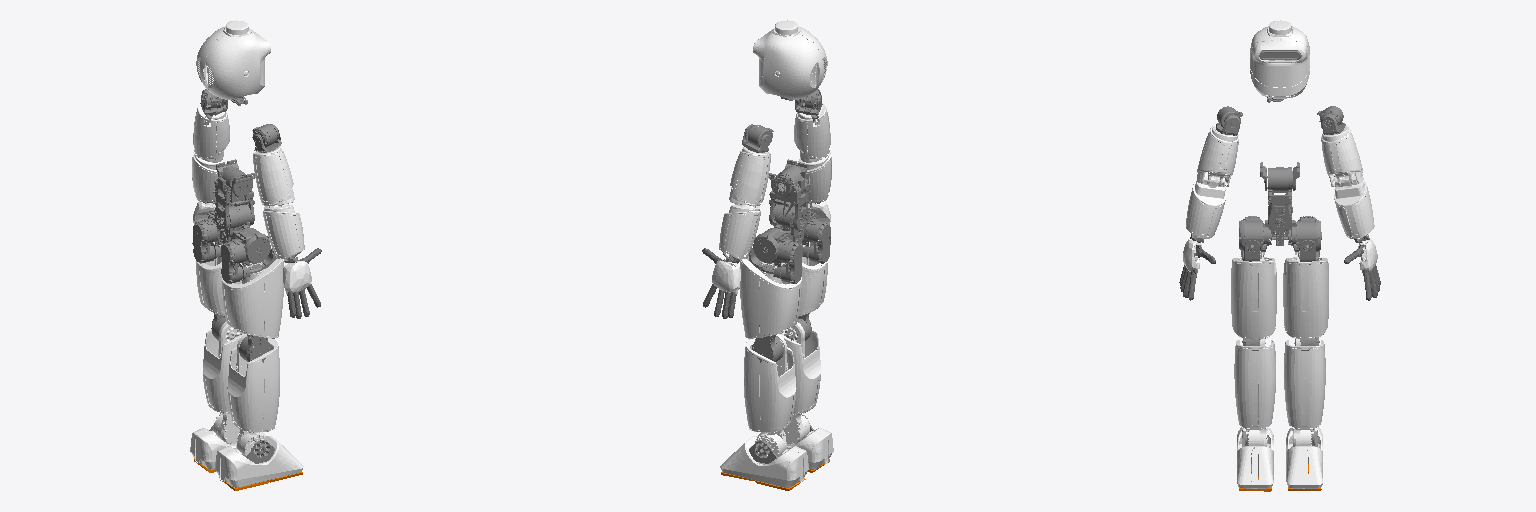
--- Facts derived from the render (not from the file) ---
Views: 3 orthographic renders of the robot side by side, from view 1: azimuth 30°, elevation 25°; view 2: azimuth 150°, elevation 25°; view 3: azimuth 270°, elevation 25°.
Model ergoCub with 204 links and 203 joints (57 revolute, 146 fixed), rooted at root_link, posed every joint at zero.
Links seen in each view (by area): view 1: head, r_lower_leg, r_hip_3, l_lower_leg, r_ankle_2, r_upper_arm, r_forearm, l_upper_arm, r_hip_2, l_hip_3, l_ankle_2, l_hip_2 (+7 smaller); view 2: head, l_lower_leg, l_hip_3, r_lower_leg, l_ankle_2, l_upper_arm, l_forearm, r_upper_arm, r_hip_3, l_hip_2, torso_1, r_ankle_2 (+7 smaller); view 3: l_lower_leg, r_lower_leg, head, r_hip_3, l_hip_3, l_forearm, r_forearm, l_ankle_2, r_ankle_2, r_upper_arm, l_upper_arm, torso_1 (+4 smaller).
Boxes of the visible links, bbox=[...] form: head: bbox=[196, 20, 270, 99]; r_lower_leg: bbox=[227, 334, 279, 456]; r_hip_3: bbox=[222, 248, 283, 338]; l_lower_leg: bbox=[203, 322, 244, 444]; r_ankle_2: bbox=[215, 436, 303, 487]; r_upper_arm: bbox=[253, 146, 294, 205]; r_forearm: bbox=[263, 203, 304, 258]; l_upper_arm: bbox=[193, 104, 229, 162]; r_hip_2: bbox=[221, 236, 274, 283]; l_hip_3: bbox=[196, 242, 232, 315]; l_ankle_2: bbox=[190, 428, 265, 469]; l_hip_2: bbox=[193, 218, 244, 263]; head: bbox=[753, 20, 827, 99]; l_lower_leg: bbox=[744, 334, 796, 456]; l_hip_3: bbox=[740, 255, 801, 338]; r_lower_leg: bbox=[779, 322, 820, 444]; l_ankle_2: bbox=[720, 436, 808, 487]; l_upper_arm: bbox=[729, 147, 770, 205]; l_forearm: bbox=[719, 204, 760, 258]; r_upper_arm: bbox=[794, 103, 830, 162]; r_hip_3: bbox=[790, 242, 827, 315]; l_hip_2: bbox=[749, 237, 802, 283]; torso_1: bbox=[769, 174, 812, 231]; r_ankle_2: bbox=[758, 428, 833, 469]; l_lower_leg: bbox=[1284, 339, 1325, 446]; r_lower_leg: bbox=[1234, 339, 1275, 446]; head: bbox=[1250, 20, 1309, 98]; r_hip_3: bbox=[1231, 251, 1276, 339]; l_hip_3: bbox=[1283, 251, 1328, 339]; l_forearm: bbox=[1334, 172, 1374, 238]; r_forearm: bbox=[1186, 172, 1225, 238]; l_ankle_2: bbox=[1286, 427, 1322, 488]; r_ankle_2: bbox=[1237, 427, 1273, 488]; r_upper_arm: bbox=[1197, 125, 1238, 186]; l_upper_arm: bbox=[1321, 126, 1363, 186]; torso_1: bbox=[1267, 167, 1292, 233].
Size in the robot's own frame: 0.2984 by 0.6045 by 1.47 metres.
65 mesh visuals loaded from 66 distinct referenced files (65 OBJ); not drawn: 1 (reference not matched to a file when rendering).

The robot description file, URDF, robot "ergoCub":
<?xml version="1.0"?>
<robot name="ergoCub">
  <link name="root_link">
    <inertial>
      <mass value="2.823751482824641"/>
      <origin xyz="0.0024748962432214403 -1.050794470993344e-4 0.023450368787955644" rpy="0 -0 0"/>
      <inertia ixx="0.005630606285299466" ixy="1.4369039688385168e-6" ixz="2.329934099458601e-5" iyy="0.004380033669258687" iyz="1.4098441290533537e-5" izz="0.003616681010808376"/>
    </inertial>
    <visual>
      <origin xyz="0 0 0" rpy="0 -0 0"/>
      <geometry>
        <mesh filename="package://meshes/simmechanics/sim_ecub_1-1_root_link.obj" scale="0.001 0.001 0.001"/>
      </geometry>
      <material name="">
        <color rgba="0.6 0.6 0.6 1"/>
      </material>
    </visual>
    <collision>
      <origin xyz="0 0 0" rpy="0 -0 0"/>
      <geometry>
        <mesh filename="package://meshes/simmechanics/sim_ecub_1-1_root_link.obj" scale="0.001 0.001 0.001"/>
      </geometry>
      <material name="">
        <color rgba="0.6 0.6 0.6 1"/>
      </material>
    </collision>
  </link>
  <joint name="l_hip_pitch" type="revolute">
    <origin xyz="0.02109999999999964 0.050500000000000836 1.942890293094024e-16" rpy="3.958535957527503e-15 3.810968172190701e-15 1.167434911886406e-16"/>
    <axis xyz="-5.772831379991284e-17 -1 -1.3843833381666392e-17"/>
    <parent link="root_link"/>
    <child link="l_hip_1"/>
    <limit lower="-0.7504915783575618" upper="1.7976891295541595" effort="1e+9" velocity="1e+9"/>
    <dynamics damping="2" friction="0"/>
  </joint>
  <link name="l_hip_1">
    <inertial>
      <mass value="2.231768868859629"/>
      <origin xyz="-0.0040154224851623455 0.028247280560774652 -6.811143992383195e-4" rpy="0 -0 0"/>
      <inertia ixx="0.002210921814931002" ixy="5.971255499379551e-5" ixz="-1.5432160879022988e-5" iyy="0.002695326128467937" iyz="-5.838535051658118e-6" izz="0.0024610381641843883"/>
    </inertial>
    <visual>
      <origin xyz="0 0 0" rpy="0 -0 0"/>
      <geometry>
        <mesh filename="package://meshes/simmechanics/sim_ecub_1-1_l_hip_1.obj" scale="0.001 0.001 0.001"/>
      </geometry>
      <material name="">
        <color rgba="0.6 0.6 0.6 1"/>
      </material>
    </visual>
    <collision>
      <origin xyz="0 0 0" rpy="0 -0 0"/>
      <geometry>
        <mesh filename="package://meshes/simmechanics/sim_ecub_1-1_l_hip_1.obj" scale="0.001 0.001 0.001"/>
      </geometry>
      <material name="">
        <color rgba="0.6 0.6 0.6 1"/>
      </material>
    </collision>
  </link>
  <joint name="r_hip_pitch" type="revolute">
    <origin xyz="0.021099999999999643 -0.05049999999999917 -2.220446049250313e-16" rpy="3.986223624290839e-15 9.012328668422501e-14 4.978996250550603e-17"/>
    <axis xyz="-1.0880513989386065e-16 -1 1.384383338166008e-17"/>
    <parent link="root_link"/>
    <child link="r_hip_1"/>
    <limit lower="-0.7504915783575618" upper="1.7976891295541595" effort="1e+9" velocity="1e+9"/>
    <dynamics damping="2" friction="0"/>
  </joint>
  <link name="r_hip_1">
    <inertial>
      <mass value="2.2320852637398954"/>
      <origin xyz="-0.004032117730258793 -0.028249385885545365 -6.739019720393702e-4" rpy="0 -0 0"/>
      <inertia ixx="0.00221225947743564" ixy="-6.126720536020865e-5" ixz="-1.5035655169601288e-5" iyy="0.002695545891317729" iyz="6.443355522460266e-6" izz="0.0024608876750051726"/>
    </inertial>
    <visual>
      <origin xyz="0 0 0" rpy="0 -0 0"/>
      <geometry>
        <mesh filename="package://meshes/simmechanics/sim_ecub_1-1_r_hip_1.obj" scale="0.001 0.001 0.001"/>
      </geometry>
      <material name="">
        <color rgba="0.6 0.6 0.6 1"/>
      </material>
    </visual>
    <collision>
      <origin xyz="0 0 0" rpy="0 -0 0"/>
      <geometry>
        <mesh filename="package://meshes/simmechanics/sim_ecub_1-1_r_hip_1.obj" scale="0.001 0.001 0.001"/>
      </geometry>
      <material name="">
        <color rgba="0.6 0.6 0.6 1"/>
      </material>
    </collision>
  </link>
  <joint name="torso_roll" type="revolute">
    <origin xyz="-2.23890229767886e-18 -5.551115123142428e-20 0.060500000000000095" rpy="0 -2.2470258116354473e-44 5.656623812198896e-30"/>
    <axis xyz="-1 0 1.4239886692466155e-15"/>
    <parent link="root_link"/>
    <child link="torso_1"/>
    <limit lower="-0.4014257279586958" upper="0.4014257279586958" effort="1e+9" velocity="1e+9"/>
    <dynamics damping="2" friction="0"/>
  </joint>
  <link name="torso_1">
    <inertial>
      <mass value="2.0645667"/>
      <origin xyz="-0.00963997362197503 6.168494736287859e-4 0.08244231288506354" rpy="0 -0 0"/>
      <inertia ixx="0.005816920576319003" ixy="-6.9752032776433695e-6" ixz="-7.227736063238389e-4" iyy="0.007094744408479672" iyz="-1.2586871224008617e-5" izz="0.002953654264837283"/>
    </inertial>
    <visual>
      <origin xyz="0 0 0" rpy="0 -0 0"/>
      <geometry>
        <mesh filename="package://meshes/simmechanics/sim_ecub_1-1_torso_1.obj" scale="0.001 0.001 0.001"/>
      </geometry>
      <material name="">
        <color rgba="0.6 0.6 0.6 1"/>
      </material>
    </visual>
    <collision>
      <origin xyz="0 0 0" rpy="0 -0 0"/>
      <geometry>
        <mesh filename="package://meshes/simmechanics/sim_ecub_1-1_torso_1.obj" scale="0.001 0.001 0.001"/>
      </geometry>
      <material name="">
        <color rgba="0.6 0.6 0.6 1"/>
      </material>
    </collision>
  </link>
  <joint name="torso_pitch" type="revolute">
    <origin xyz="-7.30886630439206e-17 -4.930380657631324e-32 0.11800000000000001" rpy="3.9719461100401744e-15 2.710505431213761e-20 1.0587911275090697e-22"/>
    <axis xyz="1.058791184074231e-22 1 4.336808689942018e-19"/>
    <parent link="torso_1"/>
    <child link="torso_2"/>
    <limit lower="-0.3141592653589793" upper="0.7853981633974483" effort="1e+9" velocity="1e+9"/>
    <dynamics damping="2" friction="0"/>
  </joint>
  <link name="torso_2">
    <inertial>
      <mass value="0.7051627057068411"/>
      <origin xyz="0.0015724674776760373 0.0036223466761378907 0.026019504666210766" rpy="0 -0 0"/>
      <inertia ixx="0.0012590296877101025" ixy="4.1986239270733835e-6" ixz="-5.398163583772818e-6" iyy="6.675525890436374e-4" iyz="7.014302140884287e-5" izz="0.001145822810927014"/>
    </inertial>
    <visual>
      <origin xyz="0 0 0" rpy="0 -0 0"/>
      <geometry>
        <mesh filename="package://meshes/simmechanics/sim_ecub_1-1_torso_2.obj" scale="0.001 0.001 0.001"/>
      </geometry>
      <material name="">
        <color rgba="0.6 0.6 0.6 1"/>
      </material>
    </visual>
    <collision>
      <origin xyz="0 0 0" rpy="0 -0 0"/>
      <geometry>
        <mesh filename="package://meshes/simmechanics/sim_ecub_1-1_torso_2.obj" scale="0.001 0.001 0.001"/>
      </geometry>
      <material name="">
        <color rgba="0.6 0.6 0.6 1"/>
      </material>
    </collision>
  </link>
  <joint name="torso_yaw" type="revolute">
    <origin xyz="7.441613918977653e-12 2.6928553289098135e-16 0.06446999999999994" rpy="-5.0024312019752794e-15 1.1542823239978046e-10 -3.182148030458047e-22"/>
    <axis xyz="1.1543031726420953e-10 -1.083564369658416e-15 -1"/>
    <parent link="torso_2"/>
    <child link="chest"/>
    <limit lower="-0.7504915783575618" upper="0.7504915783575618" effort="1e+9" velocity="1e+9"/>
    <dynamics damping="2" friction="0"/>
  </joint>
  <link name="chest">
    <inertial>
      <mass value="8.7013693071296"/>
      <origin xyz="-0.03443742716446768 -3.9294689908270166e-4 0.08872320596126153" rpy="0 -0 0"/>
      <inertia ixx="0.047186222299281697" ixy="6.214939406626824e-5" ixz="-0.0015310723400944366" iyy="0.05975275087156849" iyz="-1.701880177609289e-4" izz="0.04226647012430816"/>
    </inertial>
    <visual>
      <origin xyz="0 0 0" rpy="0 -0 0"/>
      <geometry>
        <mesh filename="package://meshes/simmechanics/sim_ecub_1-3_chest.obj" scale="0.001 0.001 0.001"/>
      </geometry>
      <material name="">
        <color rgba="1 1 1 1"/>
      </material>
    </visual>
    <collision>
      <origin xyz="0 0 0" rpy="0 -0 0"/>
      <geometry>
        <mesh filename="package://meshes/simmechanics/sim_ecub_1-3_chest.obj" scale="0.001 0.001 0.001"/>
      </geometry>
      <material name="">
        <color rgba="1 1 1 1"/>
      </material>
    </collision>
  </link>
  <joint name="neck_pitch" type="revolute">
    <origin xyz="0.004899999966321172 2.016626664826681e-16 0.2273000000005654" rpy="1.2351224860400058e-15 -1.154319564878164e-10 7.461699457715907e-16"/>
    <axis xyz="-2.4626495883381276e-15 -1 3.2706219863955566e-16"/>
    <parent link="chest"/>
    <child link="neck_2"/>
    <limit lower="-0.5235987755982988" upper="0.3839724354387525" effort="1e+9" velocity="1e+9"/>
    <dynamics damping="2" friction="0"/>
  </joint>
  <link name="neck_2">
    <inertial>
      <mass value="0.12100314943032965"/>
      <origin xyz="-0.006305773955890982 3.0141314376407138e-5 0.006373188453183354" rpy="0 -0 0"/>
      <inertia ixx="4.5383766592166864e-5" ixy="-9.375752008423039e-8" ixz="8.622664755132213e-6" iyy="3.848306673536227e-5" iyz="4.870043501244136e-8" izz="3.7535538604448367e-5"/>
    </inertial>
    <visual>
      <origin xyz="0 0 0" rpy="0 -0 0"/>
      <geometry>
        <mesh filename="package://meshes/simmechanics/sim_ecub_1-1_head_neck_2.obj" scale="0.001 0.001 0.001"/>
      </geometry>
      <material name="">
        <color rgba="0.6 0.6 0.6 1"/>
      </material>
    </visual>
    <collision>
      <origin xyz="0 0 0" rpy="0 -0 0"/>
      <geometry>
        <mesh filename="package://meshes/simmechanics/sim_ecub_1-1_head_neck_2.obj" scale="0.001 0.001 0.001"/>
      </geometry>
      <material name="">
        <color rgba="0.6 0.6 0.6 1"/>
      </material>
    </collision>
  </link>
  <joint name="l_shoulder_pitch" type="revolute">
    <origin xyz="-0.013518676864309373 0.06704761117227485 0.12351981080785726" rpy="0.2536123239046727 -0.0520316056155768 -0.2752787324155064"/>
    <axis xyz="2.629396873843337e-11 1.0000000000000002 -3.132558101803795e-11"/>
    <parent link="chest"/>
    <child link="l_shoulder_1"/>
    <limit lower="-2.9670597283903604" upper="0.6108652381980153" effort="1e+9" velocity="1e+9"/>
    <dynamics damping="2" friction="0"/>
  </joint>
  <link name="l_shoulder_1">
    <inertial>
      <mass value="0.7913756606310043"/>
      <origin xyz="1.4824275422014796e-4 0.06782971819041986 5.036196460999898e-4" rpy="0 -0 0"/>
      <inertia ixx="0.0012090260632276477" ixy="3.837452877706498e-6" ixz="3.4979966648173376e-7" iyy="3.2970130687487713e-4" iyz="1.0257960656819495e-5" izz="0.0011953232413247816"/>
    </inertial>
    <visual>
      <origin xyz="0 0 0" rpy="0 -0 0"/>
      <geometry>
        <mesh filename="package://meshes/simmechanics/sim_ecub_1-1_l_shoulder_1.obj" scale="0.001 0.001 0.001"/>
      </geometry>
      <material name="">
        <color rgba="0.6 0.6 0.6 1"/>
      </material>
    </visual>
    <collision>
      <origin xyz="0 0 0" rpy="0 -0 0"/>
      <geometry>
        <mesh filename="package://meshes/simmechanics/sim_ecub_1-1_l_shoulder_1.obj" scale="0.001 0.001 0.001"/>
      </geometry>
      <material name="">
        <color rgba="0.6 0.6 0.6 1"/>
      </material>
    </collision>
  </link>
  <joint name="r_shoulder_pitch" type="revolute">
    <origin xyz="-0.013518676864309565 -0.06704761117227466 0.12351981080785729" rpy="-0.2536123239046778 -0.05203160561557753 0.2752787324155041"/>
    <axis xyz="-2.6293323421300308e-11 1.0000000000000002 3.133054926607315e-11"/>
    <parent link="chest"/>
    <child link="r_shoulder_1"/>
    <limit lower="-2.9670597283903604" upper="0.6108652381980153" effort="1e+9" velocity="1e+9"/>
    <dynamics damping="2" friction="0"/>
  </joint>
  <link name="r_shoulder_1">
    <inertial>
      <mass value="0.7922822880502421"/>
      <origin xyz="1.7243569867328445e-4 -0.06784040318161474 4.7600094527533443e-4" rpy="0 -0 0"/>
      <inertia ixx="0.0012096539626434014" ixy="-3.680808987116546e-6" ixz="8.229428308001538e-7" iyy="3.3067105254799123e-4" iyz="-1.0172274013350282e-5" izz="0.0011958286331174221"/>
    </inertial>
    <visual>
      <origin xyz="0 0 0" rpy="0 -0 0"/>
      <geometry>
        <mesh filename="package://meshes/simmechanics/sim_ecub_1-1_r_shoulder_1.obj" scale="0.001 0.001 0.001"/>
      </geometry>
      <material name="">
        <color rgba="0.6 0.6 0.6 1"/>
      </material>
    </visual>
    <collision>
      <origin xyz="0 0 0" rpy="0 -0 0"/>
      <geometry>
        <mesh filename="package://meshes/simmechanics/sim_ecub_1-1_r_shoulder_1.obj" scale="0.001 0.001 0.001"/>
      </geometry>
      <material name="">
        <color rgba="0.6 0.6 0.6 1"/>
      </material>
    </collision>
  </link>
  <joint name="r_shoulder_roll" type="revolute">
    <origin xyz="0.007499999999999977 -0.09330000000000004 -3.885780586188048e-16" rpy="-9.325873406851307e-15 9.520162436160717e-15 -4.718447854656912e-15"/>
    <axis xyz="-1.0000000000000007 8.760353553682006e-16 -4.510281037539194e-16"/>
    <parent link="r_shoulder_1"/>
    <child link="r_shoulder_2"/>
    <limit lower="-0.2617993877991494" upper="2.6179938779914944" effort="1e+9" velocity="1e+9"/>
    <dynamics damping="2" friction="0"/>
  </joint>
  <link name="r_shoulder_2">
    <inertial>
      <mass value="0.4392272062642899"/>
      <origin xyz="0.005113618901434032 -2.13348557806331e-4 -0.020425805469504787" rpy="0 -0 0"/>
      <inertia ixx="2.9042245268154257e-4" ixy="-9.557527654531481e-7" ixz="-9.749291990105912e-5" iyy="4.271705089556584e-4" iyz="-1.2227717602335833e-6" izz="2.6647274612786855e-4"/>
    </inertial>
    <visual>
      <origin xyz="0 0 0" rpy="0 -0 0"/>
      <geometry>
        <mesh filename="package://meshes/simmechanics/sim_ecub_1-1_r_shoulder_2.obj" scale="0.001 0.001 0.001"/>
      </geometry>
      <material name="">
        <color rgba="0.6 0.6 0.6 1"/>
      </material>
    </visual>
    <collision>
      <origin xyz="0 0 0" rpy="0 -0 0"/>
      <geometry>
        <mesh filename="package://meshes/simmechanics/sim_ecub_1-1_r_shoulder_2.obj" scale="0.001 0.001 0.001"/>
      </geometry>
      <material name="">
        <color rgba="0.6 0.6 0.6 1"/>
      </material>
    </collision>
  </link>
  <joint name="r_arm_ft_sensor" type="fixed">
    <origin xyz="-0.006850000000000004 -5.551115123125783e-17 -0.054300000000000015" rpy="-2.220446049250312e-16 -2.3592239273284576e-16 1.6098233857064762e-15"/>
    <parent link="r_shoulder_2"/>
    <child link="r_shoulder_3"/>
  </joint>
  <link name="r_shoulder_3">
    <inertial>
      <mass value="0.271466272759966"/>
      <origin xyz="-8.31167799586717e-5 -3.0654831449927755e-5 -0.007966545320293866" rpy="0 -0 0"/>
      <inertia ixx="7.620284216410257e-5" ixy="-3.654997747197785e-7" ixz="-3.6240077897294374e-8" iyy="7.648716704064904e-5" iyz="-6.051355657868799e-8" izz="1.2740184766279634e-4"/>
    </inertial>
    <visual>
      <origin xyz="0 0 0" rpy="0 -0 0"/>
      <geometry>
        <mesh filename="package://meshes/simmechanics/sim_ecub_1-1_r_shoulder_3.obj" scale="0.001 0.001 0.001"/>
      </geometry>
      <material name="">
        <color rgba="0.6 0.6 0.6 1"/>
      </material>
    </visual>
    <collision>
      <origin xyz="0 0 0" rpy="0 -0 0"/>
      <geometry>
        <mesh filename="package://meshes/simmechanics/sim_ecub_1-1_r_shoulder_3.obj" scale="0.001 0.001 0.001"/>
      </geometry>
      <material name="">
        <color rgba="0.6 0.6 0.6 1"/>
      </material>
    </collision>
  </link>
  <joint name="r_shoulder_yaw" type="revolute">
    <origin xyz="-7.979727989493313e-17 5.551115123125783e-17 -0.02249999999999998" rpy="-5.55111512312578e-17 -3.0531133177191805e-16 7.660538869913577e-15"/>
    <axis xyz="2.567390744445681e-16 2.775557561562927e-17 1.0000000000000004"/>
    <parent link="r_shoulder_3"/>
    <child link="r_upper_arm"/>
    <limit lower="-0.8726646259971648" upper="1.3962634015954636" effort="1e+9" velocity="1e+9"/>
    <dynamics damping="2" friction="0"/>
  </joint>
  <link name="r_upper_arm">
    <inertial>
      <mass value="1.7722348545631907"/>
      <origin xyz="1.4699786491786937e-4 -0.0023354938418406186 -0.05011711267210951" rpy="0 -0 0"/>
      <inertia ixx="0.0034219198528275844" ixy="3.081029189714289e-5" ixz="2.5743017599563002e-5" iyy="0.003510878854314856" iyz="-1.0938393403810045e-4" izz="0.0015765483711818404"/>
    </inertial>
    <visual>
      <origin xyz="0 0 0" rpy="0 -0 0"/>
      <geometry>
        <mesh filename="package://meshes/simmechanics/sim_ecub_1-1_r_upperarm.obj" scale="0.001 0.001 0.001"/>
      </geometry>
      <material name="">
        <color rgba="1 1 1 1"/>
      </material>
    </visual>
    <collision>
      <origin xyz="0 0 0" rpy="0 -0 0"/>
      <geometry>
        <mesh filename="package://meshes/simmechanics/sim_ecub_1-1_r_upperarm.obj" scale="0.001 0.001 0.001"/>
      </geometry>
      <material name="">
        <color rgba="1 1 1 1"/>
      </material>
    </collision>
  </link>
  <joint name="r_elbow" type="revolute">
    <origin xyz="0.01000000000000002 0.0015000000000005287 -0.12369999999999992" rpy="-4.1633363423443286e-16 -5.842548667089886e-15 -8.326672684688652e-15"/>
    <axis xyz="3.001071613439684e-16 -1.0000000000000027 1.2712053631958044e-14"/>
    <parent link="r_upper_arm"/>
    <child link="r_forearm"/>
    <limit lower="-0.05235987755982989" upper="1.3089969389957472" effort="1e+9" velocity="1e+9"/>
    <dynamics damping="2" friction="0"/>
  </joint>
  <link name="r_forearm">
    <inertial>
      <mass value="1.4760712424977045"/>
      <origin xyz="-0.01830687629472739 -0.002214887320910963 -0.08814943647449926" rpy="0 -0 0"/>
      <inertia ixx="0.004018141035792247" ixy="-1.0169837170335636e-6" ixz="-6.092751707960711e-5" iyy="0.004094401103638503" iyz="2.3622606931134418e-5" izz="0.00151761593950533"/>
    </inertial>
    <visual>
      <origin xyz="0 0 0" rpy="0 -0 0"/>
      <geometry>
        <mesh filename="package://meshes/simmechanics/sim_ecub_1-1_r_forearm.obj" scale="0.001 0.001 0.001"/>
      </geometry>
      <material name="">
        <color rgba="1 1 1 1"/>
      </material>
    </visual>
    <collision>
      <origin xyz="0 0 0" rpy="0 -0 0"/>
      <geometry>
        <mesh filename="package://meshes/simmechanics/sim_ecub_1-1_r_forearm.obj" scale="0.001 0.001 0.001"/>
      </geometry>
      <material name="">
        <color rgba="1 1 1 1"/>
      </material>
    </collision>
  </link>
  <joint name="r_wrist_yaw" type="revolute">
    <origin xyz="-0.014999999999999767 -0.0019999999999965323 -0.1943500000000011" rpy="-2.081668171172164e-15 -1.1587952819525071e-14 -2.997602166487915e-15"/>
    <axis xyz="5.5788706987414416e-15 -1.2628786905111175e-14 1.000000000000002"/>
    <parent link="r_forearm"/>
    <child link="r_wrist_1"/>
    <limit lower="-1.6057029118347832" upper="1.6057029118347832" effort="1e+9" velocity="1e+9"/>
    <dynamics damping="2" friction="0"/>
  </joint>
  <link name="r_wrist_1">
    <inertial>
      <mass value="0.12269276206782376"/>
      <origin xyz="-1.4544607175177166e-4 1.559247070407055e-4 0.022377800821402394" rpy="0 -0 0"/>
      <inertia ixx="4.9948289621641885e-5" ixy="-2.784766720355678e-7" ixz="6.019515820494411e-7" iyy="4.9363344899850536e-5" iyz="-7.101822163237812e-7" izz="5.04085543186966e-5"/>
    </inertial>
    <visual>
      <origin xyz="0 0 0" rpy="0 -0 0"/>
      <geometry>
        <mesh filename="package://meshes/simmechanics/sim_ecub_1-1_r_wrist_1.obj" scale="0.001 0.001 0.001"/>
      </geometry>
      <material name="">
        <color rgba="0.6 0.6 0.6 1"/>
      </material>
    </visual>
    <collision>
      <origin xyz="0 0 0" rpy="0 -0 0"/>
      <geometry>
        <mesh filename="package://meshes/simmechanics/sim_ecub_1-1_r_wrist_1.obj" scale="0.001 0.001 0.001"/>
      </geometry>
      <material name="">
        <color rgba="0.6 0.6 0.6 1"/>
      </material>
    </collision>
  </link>
  <joint name="r_wrist_roll" type="revolute">
    <origin xyz="1.4224732503009818e-16 2.498001805406602e-16 1.3877787807814457e-16" rpy="3.8857805861880484e-16 5.551115123125783e-17 -1.6653345369377353e-16"/>
    <axis xyz="0.9999999999999997 -2.480654570646835e-16 -1.873501354054953e-16"/>
    <parent link="r_wrist_1"/>
    <child link="r_wrist_2"/>
    <limit lower="-1.0821041362364843" upper="0.9075712110370514" effort="1e+9" velocity="1e+9"/>
    <dynamics damping="2" friction="0"/>
  </joint>
  <link name="r_wrist_2">
    <inertial>
      <mass value="0.021188357245777188"/>
      <origin xyz="5.05499045400093e-11 7.897372606293362e-4 -0.004696960055006527" rpy="0 -0 0"/>
      <inertia ixx="1.5886797233767314e-6" ixy="3.7411538116720276e-13" ixz="-1.6476959268145782e-14" iyy="1.6075566141746972e-6" iyz="7.534291394795915e-8" izz="2.5064167139343093e-6"/>
    </inertial>
    <visual>
      <origin xyz="0 0 0" rpy="0 -0 0"/>
      <geometry>
        <mesh filename="package://meshes/simmechanics/sim_ecub_1-1_r_wrist_2.obj" scale="0.001 0.001 0.001"/>
      </geometry>
      <material name="">
        <color rgba="0.5 0.5 0.5 1"/>
      </material>
    </visual>
    <collision>
      <origin xyz="0 0 0" rpy="0 -0 0"/>
      <geometry>
        <mesh filename="package://meshes/simmechanics/sim_ecub_1-1_r_wrist_2.obj" scale="0.001 0.001 0.001"/>
      </geometry>
      <material name="">
        <color rgba="0.5 0.5 0.5 1"/>
      </material>
    </collision>
  </link>
  <joint name="r_wrist_pitch" type="revolute">
    <origin xyz="-4.85722573273506e-17 0 2.7755575615628914e-17" rpy="2.2204460492503136e-16 -5.551115123125783e-17 -3.88578058618805e-16"/>
    <axis xyz="4.128641872824801e-16 -0.9999999999999998 -8.049116928532385e-16"/>
    <parent link="r_wrist_2"/>
    <child link="r_hand_palm"/>
    <limit lower="-0.5585053606381855" upper="0.5585053606381855" effort="1e+9" velocity="1e+9"/>
    <dynamics damping="2" friction="0"/>
  </joint>
  <link name="r_hand_palm">
    <inertial>
      <mass value="0.2020068404688116"/>
      <origin xyz="-0.003982157972782507 -0.0021135289059891482 -0.05842371394186491" rpy="0 -0 0"/>
      <inertia ixx="1.4279727238409082e-4" ixy="4.3471459905317745e-6" ixz="-1.2099467097336674e-5" iyy="2.1040345151106222e-4" iyz="4.7767131643957866e-6" izz="1.0688011837800253e-4"/>
    </inertial>
    <visual>
      <origin xyz="0 0 0" rpy="0 -0 0"/>
      <geometry>
        <mesh filename="package://meshes/simmechanics/sim_ecub_1-1_r_hand_palm.obj" scale="0.001 0.001 0.001"/>
      </geometry>
      <material name="">
        <color rgba="1 1 1 1"/>
      </material>
    </visual>
    <collision>
      <origin xyz="0 0 0" rpy="0 -0 0"/>
      <geometry>
        <mesh filename="package://meshes/simmechanics/sim_ecub_1-1_r_hand_palm.obj" scale="0.001 0.001 0.001"/>
      </geometry>
      <material name="">
        <color rgba="1 1 1 1"/>
      </material>
    </collision>
  </link>
  <joint name="r_index_add" type="revolute">
    <origin xyz="0.022499999999999992 0.0015000000000002234 -0.06859999999999983" rpy="-1.6833790438334957e-15 0.29670597283904 3.141592653589792"/>
    <axis xyz="-5.389323627044831e-16 -0.9999999999999999 1.6046911875538946e-15"/>
    <parent link="r_hand_palm"/>
    <child link="r_hand_index_1"/>
    <limit lower="0" upper="0.2617993877991494" effort="1e+9" velocity="1e+9"/>
    <dynamics damping="2" friction="0"/>
  </joint>
  <link name="r_hand_index_1">
    <inertial>
      <mass value="0.019232477290189804"/>
      <origin xyz="-0.008420124408709713 0.003850331678233287 -0.01714942611279774" rpy="0 -0 0"/>
      <inertia ixx="2.6266478205033898e-6" ixy="1.0045828131985182e-7" ixz="-4.4428748588513116e-7" iyy="2.811973348231671e-6" iyz="-3.9646985411500977e-8" izz="1.21028376665746e-6"/>
    </inertial>
    <visual>
      <origin xyz="0 0 0" rpy="0 -0 0"/>
      <geometry>
        <mesh filename="package://meshes/simmechanics/sim_ecub_1-1_r_hand_index_1.obj" scale="0.001 0.001 0.001"/>
      </geometry>
      <material name="">
        <color rgba="0.5 0.5 0.5 1"/>
      </material>
    </visual>
    <collision>
      <origin xyz="0 0 0" rpy="0 -0 0"/>
      <geometry>
        <mesh filename="package://meshes/simmechanics/sim_ecub_1-1_r_hand_index_1.obj" scale="0.001 0.001 0.001"/>
      </geometry>
      <material name="">
        <color rgba="0.5 0.5 0.5 1"/>
      </material>
    </collision>
  </link>
  <joint name="r_middle_prox" type="revolute">
    <origin xyz="0.009599999988882939 0.00150000000000039 -0.1030000000010361" rpy="-1.8596235662471376e-15 -1.0793124727292991e-10 3.1415926535897927"/>
    <axis xyz="-0.9999999999999996 -4.562322741819007e-15 1.079337105802658e-10"/>
    <parent link="r_hand_palm"/>
    <child link="r_hand_middle_1"/>
    <limit lower="0" upper="1.5707963267948966" effort="1e+9" velocity="1e+9"/>
    <dynamics damping="2" friction="0"/>
  </joint>
  <link name="r_hand_middle_1">
    <inertial>
      <mass value="0.007486365997467528"/>
      <origin xyz="5.610258533731913e-5 0.0011131046827904112 -0.01742880983276912" rpy="0 -0 0"/>
      <inertia ixx="1.5923690026243956e-6" ixy="-7.6859949856616e-10" ixz="-9.576514629966624e-9" iyy="1.5225016121802755e-6" iyz="1.1152097367596593e-7" izz="3.177134212214704e-7"/>
    </inertial>
    <visual>
      <origin xyz="0 0 0" rpy="0 -0 0"/>
      <geometry>
        <mesh filename="package://meshes/simmechanics/sim_ecub_1-1_r_hand_middle_1.obj" scale="0.001 0.001 0.001"/>
      </geometry>
      <material name="">
        <color rgba="0.5 0.5 0.5 1"/>
      </material>
    </visual>
    <collision>
      <origin xyz="0 0 0" rpy="0 -0 0"/>
      <geometry>
        <mesh filename="package://meshes/simmechanics/sim_ecub_1-1_r_hand_middle_1.obj" scale="0.001 0.001 0.001"/>
      </geometry>
      <material name="">
        <color rgba="0.5 0.5 0.5 1"/>
      </material>
    </collision>
  </link>
  <joint name="r_pinkie_prox" type="revolute">
    <origin xyz="-0.035982680943166166 0.002377759579109573 -0.09206828131946371" rpy="4.1095343980510334e-4 -0.08726646259972864 3.1154127148098776"/>
    <axis xyz="-0.9999999999999998 4.364801434782878e-15 0"/>
    <parent link="r_hand_palm"/>
    <child link="r_hand_pinkie_1"/>
    <limit lower="0" upper="1.5707963267948966" effort="1e+9" velocity="1e+9"/>
    <dynamics damping="2" friction="0"/>
  </joint>
  <link name="r_hand_pinkie_1">
    <inertial>
      <mass value="0.006357585733638135"/>
      <origin xyz="3.616260147435227e-5 0.0012147050941129778 -0.015053109692718447" rpy="0 -0 0"/>
      <inertia ixx="1.1594224636752146e-6" ixy="1.9700677724003336e-10" ixz="-5.145341462812334e-9" iyy="1.1056270005627898e-6" iyz="9.04498861481507e-8" izz="2.7294425194037764e-7"/>
    </inertial>
    <visual>
      <origin xyz="0 0 0" rpy="0 -0 0"/>
      <geometry>
        <mesh filename="package://meshes/simmechanics/sim_ecub_1-1_r_hand_pinkie_1.obj" scale="0.001 0.001 0.001"/>
      </geometry>
      <material name="">
        <color rgba="0.5 0.5 0.5 1"/>
      </material>
    </visual>
    <collision>
      <origin xyz="0 0 0" rpy="0 -0 0"/>
      <geometry>
        <mesh filename="package://meshes/simmechanics/sim_ecub_1-1_r_hand_pinkie_1.obj" scale="0.001 0.001 0.001"/>
      </geometry>
      <material name="">
        <color rgba="0.5 0.5 0.5 1"/>
      </material>
    </collision>
  </link>
  <joint name="r_ring_prox" type="revolute">
    <origin xyz="-0.015417755568684424 0.001849813728471178 -0.09788067183717986" rpy="2.019965811910767e-14 -0.08726646270762471 3.11541271480963"/>
    <axis xyz="-0.9999999999999997 -2.498435601042699e-13 1.0789123761067998e-10"/>
    <parent link="r_hand_palm"/>
    <child link="r_hand_ring_1"/>
    <limit lower="0" upper="1.5707963267948966" effort="1e+9" velocity="1e+9"/>
    <dynamics damping="2" friction="0"/>
  </joint>
  <link name="r_hand_ring_1">
    <inertial>
      <mass value="0.007486365997467528"/>
      <origin xyz="5.6102585337293107e-5 0.0011131045999587252 -0.017428809839565573" rpy="0 -0 0"/>
      <inertia ixx="1.5923690066834338e-6" ixy="-7.685995334343241e-10" ixz="-9.576514632814455e-9" iyy="1.5225016134675864e-6" iyz="1.115209689762951e-7" izz="3.177134239925537e-7"/>
    </inertial>
    <visual>
      <origin xyz="0 0 0" rpy="0 -0 0"/>
      <geometry>
        <mesh filename="package://meshes/simmechanics/sim_ecub_1-1_r_hand_ring_1.obj" scale="0.001 0.001 0.001"/>
      </geometry>
      <material name="">
        <color rgba="0.5 0.5 0.5 1"/>
      </material>
    </visual>
    <collision>
      <origin xyz="0 0 0" rpy="0 -0 0"/>
      <geometry>
        <mesh filename="package://meshes/simmechanics/sim_ecub_1-1_r_hand_ring_1.obj" scale="0.001 0.001 0.001"/>
      </geometry>
      <material name="">
        <color rgba="0.5 0.5 0.5 1"/>
      </material>
    </collision>
  </link>
  <joint name="r_thumb_add" type="revolute">
    <origin xyz="0.023374863252664337 0.003000000000000058 -0.03452383847607743" rpy="1.566711369727914e-15 -0.226892802651332 -5.127419028200447e-16"/>
    <axis xyz="-1.0793213545134961e-10 2.4089270891491094e-15 0.9999999999999998"/>
    <parent link="r_hand_palm"/>
    <child link="r_hand_thumb_1"/>
    <limit lower="0" upper="1.7453292519943295" effort="1e+9" velocity="1e+9"/>
    <dynamics damping="2" friction="0"/>
  </joint>
  <link name="r_hand_thumb_1">
    <inertial>
      <mass value="0.02894174189037044"/>
      <origin xyz="0.0183756324403817 -4.55521018183358e-5 0.002126473485347669" rpy="0 -0 0"/>
      <inertia ixx="2.6227221096875315e-6" ixy="-2.6657118889494294e-7" ixz="3.408188388661989e-7" iyy="7.222316801810369e-6" iyz="1.3067300647554165e-7" izz="5.813428900568859e-6"/>
    </inertial>
    <visual>
      <origin xyz="0 0 0" rpy="0 -0 0"/>
      <geometry>
        <mesh filename="package://meshes/simmechanics/sim_ecub_1-1_r_hand_thumb_1.obj" scale="0.001 0.001 0.001"/>
      </geometry>
      <material name="">
        <color rgba="0.5 0.5 0.5 1"/>
      </material>
    </visual>
    <collision>
      <origin xyz="0 0 0" rpy="0 -0 0"/>
      <geometry>
        <mesh filename="package://meshes/simmechanics/sim_ecub_1-1_r_hand_thumb_1.obj" scale="0.001 0.001 0.001"/>
      </geometry>
      <material name="">
        <color rgba="0.5 0.5 0.5 1"/>
      </material>
    </collision>
  </link>
  <joint name="r_thumb_prox" type="revolute">
    <origin xyz="0.0380746544995605 0.003469109580325286 -0.0036017448035497446" rpy="-1.7697290685198344 -0.13749152761469902 -2.965379613992927"/>
    <axis xyz="9.992007221626409e-16 -1.1102230246251565e-15 -0.9999999999999997"/>
    <parent link="r_hand_thumb_1"/>
    <child link="r_hand_thumb_2"/>
    <limit lower="0" upper="1.5707963267948966" effort="1e+9" velocity="1e+9"/>
    <dynamics damping="2" friction="0"/>
  </joint>
  <link name="r_hand_thumb_2">
    <inertial>
      <mass value="0.00669603218404702"/>
      <origin xyz="-0.014887264468035837 -0.0011329726380328586 6.26600593671145e-5" rpy="0 -0 0"/>
      <inertia ixx="2.822738702941517e-7" ixy="-9.431423655785553e-8" ixz="-7.94903600654804e-9" iyy="1.1148767778556382e-6" iyz="7.629054803653638e-10" izz="1.1785117216493283e-6"/>
    </inertial>
    <visual>
      <origin xyz="0 0 0" rpy="0 -0 0"/>
      <geometry>
        <mesh filename="package://meshes/simmechanics/sim_ecub_1-1_r_hand_thumb_2.obj" scale="0.001 0.001 0.001"/>
      </geometry>
      <material name="">
        <color rgba="0.5 0.5 0.5 1"/>
      </material>
    </visual>
    <collision>
      <origin xyz="0 0 0" rpy="0 -0 0"/>
      <geometry>
        <mesh filename="package://meshes/simmechanics/sim_ecub_1-1_r_hand_thumb_2.obj" scale="0.001 0.001 0.001"/>
      </geometry>
      <material name="">
        <color rgba="0.5 0.5 0.5 1"/>
      </material>
    </collision>
  </link>
  <joint name="r_thumb_dist" type="revolute">
    <origin xyz="-0.035000000003687984 0.0014999999936707586 -1.0737244426906045e-12" rpy="-1.87424381570267e-11 1.845751329554446e-11 3.1415926535883125"/>
    <axis xyz="1.8458673825549887e-11 1.8743298579870785e-11 -0.9999999999999999"/>
    <parent link="r_hand_thumb_2"/>
    <child link="r_hand_thumb_3"/>
    <limit lower="0" upper="1.7697638615222502" effort="1e+9" velocity="1e+9"/>
    <dynamics damping="2" friction="0"/>
  </joint>
  <link name="r_hand_thumb_3">
    <inertial>
      <mass value="0.00683159462238797"/>
      <origin xyz="0.016086236544425966 0.0026526877650291103 4.703179416121195e-5" rpy="0 -0 0"/>
      <inertia ixx="2.881152136289015e-7" ixy="5.927787437409324e-8" ixz="7.046450596142318e-9" iyy="1.4727314074745805e-6" iyz="-1.1370823402676918e-10" izz="1.4681073090610674e-6"/>
    </inertial>
    <visual>
      <origin xyz="0 0 0" rpy="0 -0 0"/>
      <geometry>
        <mesh filename="package://meshes/simmechanics/sim_ecub_1-1_r_hand_thumb_3.obj" scale="0.001 0.001 0.001"/>
      </geometry>
      <material name="">
        <color rgba="0.5 0.5 0.5 1"/>
      </material>
    </visual>
    <collision>
      <origin xyz="0 0 0" rpy="0 -0 0"/>
      <geometry>
        <mesh filename="package://meshes/simmechanics/sim_ecub_1-1_r_hand_thumb_3.obj" scale="0.001 0.001 0.001"/>
      </geometry>
      <material name="">
        <color rgba="0.5 0.5 0.5 1"/>
      </material>
    </collision>
  </link>
  <joint name="r_ring_dist" type="revolute">
    <origin xyz="-1.498102770308707e-11 -0.0015000000002765024 -0.040000000000737446" rpy="-5.828670879282074e-16 1.0789557441936992e-10 2.461919557106285e-13"/>
    <axis xyz="-0.9999999999999999 2.4672971998818127e-13 -1.0789569585001324e-10"/>
    <parent link="r_hand_ring_1"/>
    <child link="r_hand_ring_2"/>
    <limit lower="0" upper="1.7994344588061537" effort="1e+9" velocity="1e+9"/>
    <dynamics damping="2" friction="0"/>
  </joint>
  <link name="r_hand_ring_2">
    <inertial>
      <mass value="0.007251413355667432"/>
      <origin xyz="4.43251343077225e-5 0.00275470906266162 -0.018890876418029168" rpy="0 -0 0"/>
      <inertia ixx="1.9331833105730582e-6" ixy="-7.989212176587309e-11" ixz="-7.904608363472145e-9" iyy="1.9365695874997407e-6" iyz="-7.314014027601115e-8" izz="3.168091312615482e-7"/>
    </inertial>
    <visual>
      <origin xyz="0 0 0" rpy="0 -0 0"/>
      <geometry>
        <mesh filename="package://meshes/simmechanics/sim_ecub_1-1_r_hand_ring_2.obj" scale="0.001 0.001 0.001"/>
      </geometry>
      <material name="">
        <color rgba="0.5 0.5 0.5 1"/>
      </material>
    </visual>
    <collision>
      <origin xyz="0 0 0" rpy="0 -0 0"/>
      <geometry>
        <mesh filename="package://meshes/simmechanics/sim_ecub_1-1_r_hand_ring_2.obj" scale="0.001 0.001 0.001"/>
      </geometry>
      <material name="">
        <color rgba="0.5 0.5 0.5 1"/>
      </material>
    </collision>
  </link>
  <joint name="r_pinkie_dist" type="revolute">
    <origin xyz="4.5102810375396984e-17 -0.001514193309379297 -0.03499938883211873" rpy="-0.0012956915198213642 -1.8735013540549517e-16 -2.775557561562892e-16"/>
    <axis xyz="-0.9999999999999999 9.036247971209683e-16 -2.4586692098222613e-15"/>
    <parent link="r_hand_pinkie_1"/>
    <child link="r_hand_pinkie_2"/>
    <limit lower="0" upper="1.7226399717184033" effort="1e+9" velocity="1e+9"/>
    <dynamics damping="2" friction="0"/>
  </joint>
  <link name="r_hand_pinkie_2">
    <inertial>
      <mass value="0.007240237490764073"/>
      <origin xyz="2.1391072559044655e-5 0.0027712863562942003 -0.018930305880602127" rpy="0 -0 0"/>
      <inertia ixx="1.925475606102824e-6" ixy="-4.3197295418411515e-10" ixz="-3.753180689187112e-9" iyy="1.929147380651044e-6" iyz="-7.607784499660943e-8" izz="3.1621036318191297e-7"/>
    </inertial>
    <visual>
      <origin xyz="0 0 0" rpy="0 -0 0"/>
      <geometry>
        <mesh filename="package://meshes/simmechanics/sim_ecub_1-1_r_hand_pinkie_2.obj" scale="0.001 0.001 0.001"/>
      </geometry>
      <material name="">
        <color rgba="0.5 0.5 0.5 1"/>
      </material>
    </visual>
    <collision>
      <origin xyz="0 0 0" rpy="0 -0 0"/>
      <geometry>
        <mesh filename="package://meshes/simmechanics/sim_ecub_1-1_r_hand_pinkie_2.obj" scale="0.001 0.001 0.001"/>
      </geometry>
      <material name="">
        <color rgba="0.5 0.5 0.5 1"/>
      </material>
    </collision>
  </link>
  <joint name="r_middle_dist" type="revolute">
    <origin xyz="-1.5434174771566944e-11 -0.0014999999999999736 -0.0399999999989637" rpy="-7.535550930470877e-8 1.0793281546295219e-10 0"/>
    <axis xyz="-0.9999999999999998 -2.0695253452753748e-15 -1.0792969296086812e-10"/>
    <parent link="r_hand_middle_1"/>
    <child link="r_hand_middle_2"/>
    <limit lower="0" upper="1.7994344588061537" effort="1e+9" velocity="1e+9"/>
    <dynamics damping="2" friction="0"/>
  </joint>
  <link name="r_hand_middle_2">
    <inertial>
      <mass value="0.007251413355667432"/>
      <origin xyz="4.432513430769475e-5 0.0027547091926723166 -0.018890876399070666" rpy="0 -0 0"/>
      <inertia ixx="1.933183310574237e-6" ixy="-7.989206743982703e-11" ixz="-7.904608363479557e-9" iyy="1.9365732602456635e-6" iyz="-7.313677768867388e-8" izz="3.168054585139121e-7"/>
    </inertial>
    <visual>
      <origin xyz="0 0 0" rpy="0 -0 0"/>
      <geometry>
        <mesh filename="package://meshes/simmechanics/sim_ecub_1-1_r_hand_middle_2.obj" scale="0.001 0.001 0.001"/>
      </geometry>
      <material name="">
        <color rgba="0.5 0.5 0.5 1"/>
      </material>
    </visual>
    <collision>
      <origin xyz="0 0 0" rpy="0 -0 0"/>
      <geometry>
        <mesh filename="package://meshes/simmechanics/sim_ecub_1-1_r_hand_middle_2.obj" scale="0.001 0.001 0.001"/>
      </geometry>
      <material name="">
        <color rgba="0.5 0.5 0.5 1"/>
      </material>
    </collision>
  </link>
  <joint name="r_index_prox" type="revolute">
    <origin xyz="-0.009192533317427393 5.551115123125783e-17 -0.030713451316238316" rpy="-3.0531133177191805e-16 -2.0816681711721685e-17 0"/>
    <axis xyz="-0.9999999999999993 3.434752482434078e-15 -1.672273430841644e-15"/>
    <parent link="r_hand_index_1"/>
    <child link="r_hand_index_2"/>
    <limit lower="0" upper="1.5707963267948966" effort="1e+9" velocity="1e+9"/>
    <dynamics damping="2" friction="0"/>
  </joint>
  <link name="r_hand_index_2">
    <inertial>
      <mass value="0.007486365997467528"/>
      <origin xyz="5.610258533736423e-5 0.0011131050125119946 -0.01742880980571504" rpy="0 -0 0"/>
      <inertia ixx="1.5923689864672536e-6" ixy="-7.685993601390065e-10" ixz="-9.576514618642257e-9" iyy="1.5225016070540494e-6" iyz="1.1152099238402203e-7" izz="3.1771341019039245e-7"/>
    </inertial>
    <visual>
      <origin xyz="0 0 0" rpy="0 -0 0"/>
      <geometry>
        <mesh filename="package://meshes/simmechanics/sim_ecub_1-1_r_hand_index_2.obj" scale="0.001 0.001 0.001"/>
      </geometry>
      <material name="">
        <color rgba="0.5 0.5 0.5 1"/>
      </material>
    </visual>
    <collision>
      <origin xyz="0 0 0" rpy="0 -0 0"/>
      <geometry>
        <mesh filename="package://meshes/simmechanics/sim_ecub_1-1_r_hand_index_2.obj" scale="0.001 0.001 0.001"/>
      </geometry>
      <material name="">
        <color rgba="0.5 0.5 0.5 1"/>
      </material>
    </collision>
  </link>
  <joint name="r_index_dist" type="revolute">
    <origin xyz="4.163336342344337e-17 -0.0014999999999998903 -0.040000000000000036" rpy="1.942890293094024e-16 3.469446951953614e-17 1.665334536937736e-16"/>
    <axis xyz="-0.9999999999999993 -2.0122792321330975e-16 -4.510281037539697e-16"/>
    <parent link="r_hand_index_2"/>
    <child link="r_hand_index_3"/>
    <limit lower="0" upper="1.7994344588061537" effort="1e+9" velocity="1e+9"/>
    <dynamics damping="2" friction="0"/>
  </joint>
  <link name="r_hand_index_3">
    <inertial>
      <mass value="0.007251413355667432"/>
      <origin xyz="4.432513430773638e-5 0.0027547026217409343 -0.01889087735725714" rpy="0 -0 0"/>
      <inertia ixx="1.9331833106031376e-6" ixy="-7.989481683614064e-11" ixz="-7.904608320181986e-9" iyy="1.9365664798884807e-6" iyz="-7.313734234921826e-8" izz="3.168122388413564e-7"/>
    </inertial>
    <visual>
      <origin xyz="0 0 0" rpy="0 -0 0"/>
      <geometry>
        <mesh filename="package://meshes/simmechanics/sim_ecub_1-1_r_hand_index_3.obj" scale="0.001 0.001 0.001"/>
      </geometry>
      <material name="">
        <color rgba="0.5 0.5 0.5 1"/>
      </material>
    </visual>
    <collision>
      <origin xyz="0 0 0" rpy="0 -0 0"/>
      <geometry>
        <mesh filename="package://meshes/simmechanics/sim_ecub_1-1_r_hand_index_3.obj" scale="0.001 0.001 0.001"/>
      </geometry>
      <material name="">
        <color rgba="0.5 0.5 0.5 1"/>
      </material>
    </collision>
  </link>
  <joint name="l_shoulder_roll" type="revolute">
    <origin xyz="0.005000000000000011 0.09329999999999987 -3.0531133177191805e-16" rpy="2.6895152771544417e-14 1.790234627208065e-15 -2.3314683517128287e-15"/>
    <axis xyz="1 4.891920202255013e-16 3.3029134982598896e-15"/>
    <parent link="l_shoulder_1"/>
    <child link="l_shoulder_2"/>
    <limit lower="-0.2617993877991494" upper="2.6179938779914944" effort="1e+9" velocity="1e+9"/>
    <dynamics damping="2" friction="0"/>
  </joint>
  <link name="l_shoulder_2">
    <inertial>
      <mass value="0.44093319265387243"/>
      <origin xyz="0.007519395712385758 1.8727197477702573e-4 -0.020486062588588566" rpy="0 -0 0"/>
      <inertia ixx="2.9145977319834226e-4" ixy="1.1454484909976663e-6" ixz="-9.910474228153797e-5" iyy="4.316468020210048e-4" iyz="1.4378502430788573e-6" izz="2.711572335339609e-4"/>
    </inertial>
    <visual>
      <origin xyz="0 0 0" rpy="0 -0 0"/>
      <geometry>
        <mesh filename="package://meshes/simmechanics/sim_ecub_1-1_l_shoulder_2.obj" scale="0.001 0.001 0.001"/>
      </geometry>
      <material name="">
        <color rgba="0.6 0.6 0.6 1"/>
      </material>
    </visual>
    <collision>
      <origin xyz="0 0 0" rpy="0 -0 0"/>
      <geometry>
        <mesh filename="package://meshes/simmechanics/sim_ecub_1-1_l_shoulder_2.obj" scale="0.001 0.001 0.001"/>
      </geometry>
      <material name="">
        <color rgba="0.6 0.6 0.6 1"/>
      </material>
    </collision>
  </link>
  <joint name="l_arm_ft_sensor" type="fixed">
    <origin xyz="-0.004349999999999986 -2.7755575615628914e-17 -0.05430000000000004" rpy="2.2204460492503136e-16 6.938893903907228e-18 1.4988010832439621e-15"/>
    <parent link="l_shoulder_2"/>
    <child link="l_shoulder_3"/>
  </joint>
  <link name="l_shoulder_3">
    <inertial>
      <mass value="0.271466272759966"/>
      <origin xyz="8.311677995862313e-5 3.065483169523153e-5 -0.007966545320293866" rpy="0 -0 0"/>
      <inertia ixx="7.620284216408771e-5" ixy="-3.6549977471418807e-7" ixz="3.624007789477276e-8" iyy="7.648716704064355e-5" iyz="6.05135559486276e-8" izz="1.2740184766278623e-4"/>
    </inertial>
    <visual>
      <origin xyz="0 0 0" rpy="0 -0 0"/>
      <geometry>
        <mesh filename="package://meshes/simmechanics/sim_ecub_1-1_l_shoulder_3.obj" scale="0.001 0.001 0.001"/>
      </geometry>
      <material name="">
        <color rgba="0.6 0.6 0.6 1"/>
      </material>
    </visual>
    <collision>
      <origin xyz="0 0 0" rpy="0 -0 0"/>
      <geometry>
        <mesh filename="package://meshes/simmechanics/sim_ecub_1-1_l_shoulder_3.obj" scale="0.001 0.001 0.001"/>
      </geometry>
      <material name="">
        <color rgba="0.6 0.6 0.6 1"/>
      </material>
    </collision>
  </link>
  <joint name="l_shoulder_yaw" type="revolute">
    <origin xyz="4.163336342344337e-17 -5.551115123125783e-17 -0.022499999999999937" rpy="-3.3029134982598486e-15 -3.002459392220658e-14 6.383782391594671e-15"/>
    <axis xyz="-3.0080105073437835e-14 3.191891195797326e-15 -0.9999999999999977"/>
    <parent link="l_shoulder_3"/>
    <child link="l_upper_arm"/>
    <limit lower="-0.8726646259971648" upper="1.3962634015954636" effort="1e+9" velocity="1e+9"/>
    <dynamics damping="2" friction="0"/>
  </joint>
  <link name="l_upper_arm">
    <inertial>
      <mass value="1.7708527474969076"/>
      <origin xyz="1.3049265136780286e-4 0.0022530185376357925 -0.050065038959805325" rpy="0 -0 0"/>
      <inertia ixx="0.003417154867942194" ixy="-2.952452997527239e-5" ixz="2.6752323704214618e-5" iyy="0.0035109035513553296" iyz="1.0388063737032838e-4" izz="0.0015716101936389657"/>
    </inertial>
    <visual>
      <origin xyz="0 0 0" rpy="0 -0 0"/>
      <geometry>
        <mesh filename="package://meshes/simmechanics/sim_ecub_1-1_l_upperarm.obj" scale="0.001 0.001 0.001"/>
      </geometry>
      <material name="">
        <color rgba="1 1 1 1"/>
      </material>
    </visual>
    <collision>
      <origin xyz="0 0 0" rpy="0 -0 0"/>
      <geometry>
        <mesh filename="package://meshes/simmechanics/sim_ecub_1-1_l_upperarm.obj" scale="0.001 0.001 0.001"/>
      </geometry>
      <material name="">
        <color rgba="1 1 1 1"/>
      </material>
    </collision>
  </link>
  <joint name="l_elbow" type="revolute">
    <origin xyz="0.009999999999996342 -0.0014999999999996405 -0.12369999999999956" rpy="-3.1641356201817088e-15 -3.134298376394895e-14 -7.827072323607395e-15"/>
    <axis xyz="-4.215378046622413e-16 -0.9999999999999953 6.5780714209038095e-15"/>
    <parent link="l_upper_arm"/>
    <child link="l_forearm"/>
    <limit lower="-0.05235987755982989" upper="1.3089969389957472" effort="1e+9" velocity="1e+9"/>
    <dynamics damping="2" friction="0"/>
  </joint>
  <link name="l_forearm">
    <inertial>
      <mass value="1.4604487031386884"/>
      <origin xyz="-0.018553263328673478 0.0023119252259846124 -0.08919372240797706" rpy="0 -0 0"/>
      <inertia ixx="0.003893738896214435" ixy="-3.4642535094897738e-6" ixz="-4.190258302572787e-5" iyy="0.003967428265005762" iyz="-1.2157659778638894e-5" izz="0.0015062007003231051"/>
    </inertial>
    <visual>
      <origin xyz="0 0 0" rpy="0 -0 0"/>
      <geometry>
        <mesh filename="package://meshes/simmechanics/sim_ecub_1-1_l_forearm.obj" scale="0.001 0.001 0.001"/>
      </geometry>
      <material name="">
        <color rgba="1 1 1 1"/>
      </material>
    </visual>
    <collision>
      <origin xyz="0 0 0" rpy="0 -0 0"/>
      <geometry>
        <mesh filename="package://meshes/simmechanics/sim_ecub_1-1_l_forearm.obj" scale="0.001 0.001 0.001"/>
      </geometry>
      <material name="">
        <color rgba="1 1 1 1"/>
      </material>
    </collision>
  </link>
  <joint name="l_wrist_yaw" type="revolute">
    <origin xyz="-0.014999999999992455 0.0020000000000007234 -0.1943500000000013" rpy="-2.775557561562897e-16 -7.741723928589295e-14 -5.551115123125795e-17"/>
    <axis xyz="-3.1023794644369224e-14 2.9420910152566676e-15 -0.9999999999999981"/>
    <parent link="l_forearm"/>
    <child link="l_wrist_1"/>
    <limit lower="-1.6057029118347832" upper="1.6057029118347832" effort="1e+9" velocity="1e+9"/>
    <dynamics damping="2" friction="0"/>
  </joint>
  <link name="l_wrist_1">
    <inertial>
      <mass value="0.1226928"/>
      <origin xyz="1.4545073498396788e-4 -1.5595311920038601e-4 0.022377795694245" rpy="0 -0 0"/>
      <inertia ixx="4.99469100996649e-5" ixy="-2.787171151199186e-7" ixz="-6.017806812164961e-7" iyy="4.93613984105829e-5" iyz="7.090130898393705e-7" izz="5.040833558305853e-5"/>
    </inertial>
    <visual>
      <origin xyz="0 0 0" rpy="0 -0 0"/>
      <geometry>
        <mesh filename="package://meshes/simmechanics/sim_ecub_1-1_l_wrist_1.obj" scale="0.001 0.001 0.001"/>
      </geometry>
      <material name="">
        <color rgba="0.6 0.6 0.6 1"/>
      </material>
    </visual>
    <collision>
      <origin xyz="0 0 0" rpy="0 -0 0"/>
      <geometry>
        <mesh filename="package://meshes/simmechanics/sim_ecub_1-1_l_wrist_1.obj" scale="0.001 0.001 0.001"/>
      </geometry>
      <material name="">
        <color rgba="0.6 0.6 0.6 1"/>
      </material>
    </collision>
  </link>
  <joint name="l_wrist_roll" type="revolute">
    <origin xyz="2.7755575615628914e-17 1.942890293094024e-16 2.7755575615628914e-17" rpy="3.885780586188047e-16 9.71445146547012e-17 -4.440892098500624e-16"/>
    <axis xyz="-1.0000000000000004 4.909267437014364e-16 -2.0122792321330943e-16"/>
    <parent link="l_wrist_1"/>
    <child link="l_wrist_2"/>
    <limit lower="-1.0821041362364843" upper="0.9075712110370514" effort="1e+9" velocity="1e+9"/>
    <dynamics damping="2" friction="0"/>
  </joint>
  <link name="l_wrist_2">
    <inertial>
      <mass value="0.02118836"/>
      <origin xyz="-7.4183919215875535e-9 -7.897157534373368e-4 -0.0046969679508168105" rpy="0 -0 0"/>
      <inertia ixx="1.588238425453937e-6" ixy="-2.165272906156668e-11" ixz="7.915941092897307e-11" iyy="1.6073132474088142e-6" iyz="-7.554073452985005e-8" izz="2.5064973929673043e-6"/>
    </inertial>
    <visual>
      <origin xyz="0 0 0" rpy="0 -0 0"/>
      <geometry>
        <mesh filename="package://meshes/simmechanics/sim_ecub_1-1_l_wrist_2.obj" scale="0.001 0.001 0.001"/>
      </geometry>
      <material name="">
        <color rgba="0.5 0.5 0.5 1"/>
      </material>
    </visual>
    <collision>
      <origin xyz="0 0 0" rpy="0 -0 0"/>
      <geometry>
        <mesh filename="package://meshes/simmechanics/sim_ecub_1-1_l_wrist_2.obj" scale="0.001 0.001 0.001"/>
      </geometry>
      <material name="">
        <color rgba="0.5 0.5 0.5 1"/>
      </material>
    </collision>
  </link>
  <joint name="l_wrist_pitch" type="revolute">
    <origin xyz="-1.214306433183765e-16 -1.6653345369377348e-16 0" rpy="-4.163336342344336e-16 1.0798191507621624e-10 3.330669073875468e-16"/>
    <axis xyz="-2.4459601009774425e-16 -1.0000000000000002 -1.3600232051562635e-15"/>
    <parent link="l_wrist_2"/>
    <child link="l_hand_palm"/>
    <limit lower="-0.5585053606381855" upper="0.5585053606381855" effort="1e+9" velocity="1e+9"/>
    <dynamics damping="2" friction="0"/>
  </joint>
  <link name="l_hand_palm">
    <inertial>
      <mass value="0.20364988213680776"/>
      <origin xyz="-0.003950502224178115 0.0019881930945492288 -0.058015852438740544" rpy="0 -0 0"/>
      <inertia ixx="1.461813098502197e-4" ixy="-3.793772344466637e-6" ixz="-1.1466988740793722e-5" iyy="2.145411925003367e-4" iyz="-3.736671542252551e-6" izz="1.0648405292544985e-4"/>
    </inertial>
    <visual>
      <origin xyz="0 0 0" rpy="0 -0 0"/>
      <geometry>
        <mesh filename="package://meshes/simmechanics/sim_ecub_1-1_l_hand_palm.obj" scale="0.001 0.001 0.001"/>
      </geometry>
      <material name="">
        <color rgba="1 1 1 1"/>
      </material>
    </visual>
    <collision>
      <origin xyz="0 0 0" rpy="0 -0 0"/>
      <geometry>
        <mesh filename="package://meshes/simmechanics/sim_ecub_1-1_l_hand_palm.obj" scale="0.001 0.001 0.001"/>
      </geometry>
      <material name="">
        <color rgba="1 1 1 1"/>
      </material>
    </collision>
  </link>
  <joint name="l_index_add" type="revolute">
    <origin xyz="0.022500000000000023 -0.0015000000000006952 -0.0685999999999996" rpy="-8.416895217637947e-16 -0.29670597224465534 5.804755322508926e-17"/>
    <axis xyz="1.1895336853461886e-15 0.9999999999999999 -1.9812040713213337e-15"/>
    <parent link="l_hand_palm"/>
    <child link="l_hand_index_1"/>
    <limit lower="0" upper="0.2617993877991494" effort="1e+9" velocity="1e+9"/>
    <dynamics damping="2" friction="0"/>
  </joint>
  <link name="l_hand_index_1">
    <inertial>
      <mass value="0.01923264"/>
      <origin xyz="0.008430306749277854 0.0038510231844406384 -0.017148502808541133" rpy="0 -0 0"/>
      <inertia ixx="2.6252721263619075e-6" ixy="-9.94793061395749e-8" ixz="4.4747998977494927e-7" iyy="2.8117732161881507e-6" iyz="-3.9466206080886376e-8" izz="1.2100925115556048e-6"/>
    </inertial>
    <visual>
      <origin xyz="0 0 0" rpy="0 -0 0"/>
      <geometry>
        <mesh filename="package://meshes/simmechanics/sim_ecub_1-1_l_hand_index_1.obj" scale="0.001 0.001 0.001"/>
      </geometry>
      <material name="">
        <color rgba="0.5 0.5 0.5 1"/>
      </material>
    </visual>
    <collision>
      <origin xyz="0 0 0" rpy="0 -0 0"/>
      <geometry>
        <mesh filename="package://meshes/simmechanics/sim_ecub_1-1_l_hand_index_1.obj" scale="0.001 0.001 0.001"/>
      </geometry>
      <material name="">
        <color rgba="0.5 0.5 0.5 1"/>
      </material>
    </collision>
  </link>
  <joint name="l_middle_prox" type="revolute">
    <origin xyz="0.00960000000000016 -0.0015000000000005842 -0.10299999999999959" rpy="5.479728916549446e-4 1.4363510381087963e-15 -8.32667268468867e-16"/>
    <axis xyz="-1.0000000000000004 1.6098145522958664e-16 4.176883423103147e-15"/>
    <parent link="l_hand_palm"/>
    <child link="l_hand_middle_1"/>
    <limit lower="0" upper="1.5707963267948966" effort="1e+9" velocity="1e+9"/>
    <dynamics damping="2" friction="0"/>
  </joint>
  <link name="l_hand_middle_1">
    <inertial>
      <mass value="0.007486366"/>
      <origin xyz="5.609414423399586e-5 0.0010938363913530202 -0.0174225309754375" rpy="0 -0 0"/>
      <inertia ixx="1.5929480475374711e-6" ixy="-9.219821293951626e-10" ixz="-9.505332652309699e-9" iyy="1.5230397093076881e-6" iyz="1.1029328740444945e-7" izz="3.1819719384777893e-7"/>
    </inertial>
    <visual>
      <origin xyz="0 0 0" rpy="0 -0 0"/>
      <geometry>
        <mesh filename="package://meshes/simmechanics/sim_ecub_1-1_l_hand_middle_1.obj" scale="0.001 0.001 0.001"/>
      </geometry>
      <material name="">
        <color rgba="0.5 0.5 0.5 1"/>
      </material>
    </visual>
    <collision>
      <origin xyz="0 0 0" rpy="0 -0 0"/>
      <geometry>
        <mesh filename="package://meshes/simmechanics/sim_ecub_1-1_l_hand_middle_1.obj" scale="0.001 0.001 0.001"/>
      </geometry>
      <material name="">
        <color rgba="0.5 0.5 0.5 1"/>
      </material>
    </collision>
  </link>
  <joint name="l_pinkie_prox" type="revolute">
    <origin xyz="-0.035982322249527285 -0.0023883158589564635 -0.09206560929209856" rpy="-1.9934591492976922e-5 0.08728175651239228 0.02618761244812705"/>
    <axis xyz="-0.9999999998538295 7.644772463726695e-6 -1.529375771042174e-5"/>
    <parent link="l_hand_palm"/>
    <child link="l_hand_pinkie_1"/>
    <limit lower="0" upper="1.5707963267948966" effort="1e+9" velocity="1e+9"/>
    <dynamics damping="2" friction="0"/>
  </joint>
  <link name="l_hand_pinkie_1">
    <inertial>
      <mass value="0.006357586"/>
      <origin xyz="3.6554577562467744e-5 0.0012135491682558897 -0.015052861815374408" rpy="0 -0 0"/>
      <inertia ixx="1.1595706744459758e-6" ixy="1.817145860874702e-10" ixz="-5.131228041325918e-9" iyy="1.1053210733791516e-6" iyz="9.124017197402374e-8" izz="2.734185829473546e-7"/>
    </inertial>
    <visual>
      <origin xyz="0 0 0" rpy="0 -0 0"/>
      <geometry>
        <mesh filename="package://meshes/simmechanics/sim_ecub_1-1_l_hand_pinkie_1.obj" scale="0.001 0.001 0.001"/>
      </geometry>
      <material name="">
        <color rgba="0.5 0.5 0.5 1"/>
      </material>
    </visual>
    <collision>
      <origin xyz="0 0 0" rpy="0 -0 0"/>
      <geometry>
        <mesh filename="package://meshes/simmechanics/sim_ecub_1-1_l_hand_pinkie_1.obj" scale="0.001 0.001 0.001"/>
      </geometry>
      <material name="">
        <color rgba="0.5 0.5 0.5 1"/>
      </material>
    </collision>
  </link>
  <joint name="l_ring_prox" type="revolute">
    <origin xyz="-0.015417755558120038 -0.0018498137284707894 -0.09788067183884419" rpy="-4.001819369804634e-5 0.08726646259973214 0.026179938779914452"/>
    <axis xyz="-1.0000000000000002 4.364549018964596e-17 3.6637359812630166e-15"/>
    <parent link="l_hand_palm"/>
    <child link="l_hand_ring_1"/>
    <limit lower="0" upper="1.5707963267948966" effort="1e+9" velocity="1e+9"/>
    <dynamics damping="2" friction="0"/>
  </joint>
  <link name="l_hand_ring_1">
    <inertial>
      <mass value="0.007486366"/>
      <origin xyz="5.610953414397422e-5 0.001113903955753115 -0.017428756834488968" rpy="0 -0 0"/>
      <inertia ixx="1.5926175322430852e-6" ixy="-7.593027571592815e-10" ixz="-9.630025713700034e-9" iyy="1.522746441882303e-6" iyz="1.1162272723786417e-7" izz="3.177930886696654e-7"/>
    </inertial>
    <visual>
      <origin xyz="0 0 0" rpy="0 -0 0"/>
      <geometry>
        <mesh filename="package://meshes/simmechanics/sim_ecub_1-1_l_hand_ring_1.obj" scale="0.001 0.001 0.001"/>
      </geometry>
      <material name="">
        <color rgba="0.5 0.5 0.5 1"/>
      </material>
    </visual>
    <collision>
      <origin xyz="0 0 0" rpy="0 -0 0"/>
      <geometry>
        <mesh filename="package://meshes/simmechanics/sim_ecub_1-1_l_hand_ring_1.obj" scale="0.001 0.001 0.001"/>
      </geometry>
      <material name="">
        <color rgba="0.5 0.5 0.5 1"/>
      </material>
    </collision>
  </link>
  <joint name="l_thumb_add" type="revolute">
    <origin xyz="0.02337486325639077 -0.0030000000000002525 -0.03452383847355461" rpy="-0.04044970061859103 0.22331918636553513 2.9608435412698353"/>
    <axis xyz="9.71445146547012e-16 1.0269562977782698e-15 -1.0000000000000002"/>
    <parent link="l_hand_palm"/>
    <child link="l_hand_thumb_1"/>
    <limit lower="0" upper="1.7453292519943295" effort="1e+9" velocity="1e+9"/>
    <dynamics damping="2" friction="0"/>
  </joint>
  <link name="l_hand_thumb_1">
    <inertial>
      <mass value="0.029029542280278556"/>
      <origin xyz="-0.018039176431428286 -0.0028662725726853466 0.0021177719486905056" rpy="0 -0 0"/>
      <inertia ixx="2.7178312304541084e-6" ixy="-3.676108153783739e-7" ixz="-2.7762391665657096e-7" iyy="7.273678916289491e-6" iyz="1.0493561895389714e-7" izz="5.835849245332402e-6"/>
    </inertial>
    <visual>
      <origin xyz="0 0 0" rpy="0 -0 0"/>
      <geometry>
        <mesh filename="package://meshes/simmechanics/sim_ecub_1-1_l_hand_thumb_1.obj" scale="0.001 0.001 0.001"/>
      </geometry>
      <material name="">
        <color rgba="0.5 0.5 0.5 1"/>
      </material>
    </visual>
    <collision>
      <origin xyz="0 0 0" rpy="0 -0 0"/>
      <geometry>
        <mesh filename="package://meshes/simmechanics/sim_ecub_1-1_l_hand_thumb_1.obj" scale="0.001 0.001 0.001"/>
      </geometry>
      <material name="">
        <color rgba="0.5 0.5 0.5 1"/>
      </material>
    </collision>
  </link>
  <joint name="l_thumb_prox" type="revolute">
    <origin xyz="-0.038093197449591214 -0.0032591938585579128 -0.0036017448035497446" rpy="1.37186358506996 0.1374915276146556 -3.1415926535689005"/>
    <axis xyz="5.134781488891349e-16 3.1363800445660672e-15 -0.9999999999999996"/>
    <parent link="l_hand_thumb_1"/>
    <child link="l_hand_thumb_2"/>
    <limit lower="0" upper="1.5707963267948966" effort="1e+9" velocity="1e+9"/>
    <dynamics damping="2" friction="0"/>
  </joint>
  <link name="l_hand_thumb_2">
    <inertial>
      <mass value="0.00669603218404702"/>
      <origin xyz="0.014887264468035857 0.0011329726380328031 6.266005936719776e-5" rpy="0 -0 0"/>
      <inertia ixx="2.82273870293961e-7" ixy="-9.431423655787125e-8" ixz="7.949036006532621e-9" iyy="1.1148767778556158e-6" iyz="-7.629054803910611e-10" izz="1.1785117216489732e-6"/>
    </inertial>
    <visual>
      <origin xyz="0 0 0" rpy="0 -0 0"/>
      <geometry>
        <mesh filename="package://meshes/simmechanics/sim_ecub_1-1_l_hand_thumb_2.obj" scale="0.001 0.001 0.001"/>
      </geometry>
      <material name="">
        <color rgba="0.5 0.5 0.5 1"/>
      </material>
    </visual>
    <collision>
      <origin xyz="0 0 0" rpy="0 -0 0"/>
      <geometry>
        <mesh filename="package://meshes/simmechanics/sim_ecub_1-1_l_hand_thumb_2.obj" scale="0.001 0.001 0.001"/>
      </geometry>
      <material name="">
        <color rgba="0.5 0.5 0.5 1"/>
      </material>
    </collision>
  </link>
  <joint name="l_thumb_dist" type="revolute">
    <origin xyz="0.03500000000368915 -0.001499999993667872 1.0741685319004546e-12" rpy="1.8750459518379624e-11 -1.8465340367868066e-11 -1.4806766923669552e-12"/>
    <axis xyz="-1.846719305254041e-11 -1.8750709318560158e-11 -0.9999999999999996"/>
    <parent link="l_hand_thumb_2"/>
    <child link="l_hand_thumb_3"/>
    <limit lower="0" upper="1.7697638615222502" effort="1e+9" velocity="1e+9"/>
    <dynamics damping="2" friction="0"/>
  </joint>
  <link name="l_hand_thumb_3">
    <inertial>
      <mass value="0.006831595"/>
      <origin xyz="0.016086252532748233 0.0026526887310780456 4.701425890352162e-5" rpy="0 -0 0"/>
      <inertia ixx="2.8800798429683427e-7" ixy="5.926758782001814e-8" ixz="6.997805198870725e-9" iyy="1.472681587075844e-6" iyz="-2.1551532736764057e-11" izz="1.4681159324831446e-6"/>
    </inertial>
    <visual>
      <origin xyz="0 0 0" rpy="0 -0 0"/>
      <geometry>
        <mesh filename="package://meshes/simmechanics/sim_ecub_1-1_l_hand_thumb_3.obj" scale="0.001 0.001 0.001"/>
      </geometry>
      <material name="">
        <color rgba="0.5 0.5 0.5 1"/>
      </material>
    </visual>
    <collision>
      <origin xyz="0 0 0" rpy="0 -0 0"/>
      <geometry>
        <mesh filename="package://meshes/simmechanics/sim_ecub_1-1_l_hand_thumb_3.obj" scale="0.001 0.001 0.001"/>
      </geometry>
      <material name="">
        <color rgba="0.5 0.5 0.5 1"/>
      </material>
    </collision>
  </link>
  <joint name="l_ring_dist" type="revolute">
    <origin xyz="1.4987329953475292e-11 -0.0015000000002768354 -0.04000000000073728" rpy="-1.2044308636062927e-4 -1.0794291155358238e-10 -2.509104035652854e-13"/>
    <axis xyz="-1 -2.617159685310911e-13 1.0794249544288393e-10"/>
    <parent link="l_hand_ring_1"/>
    <child link="l_hand_ring_2"/>
    <limit lower="0" upper="1.7994344588061537" effort="1e+9" velocity="1e+9"/>
    <dynamics damping="2" friction="0"/>
  </joint>
  <link name="l_hand_ring_2">
    <inertial>
      <mass value="0.007251413"/>
      <origin xyz="4.433654030530642e-5 0.0027546754597598533 -0.01889085949732494" rpy="0 -0 0"/>
      <inertia ixx="1.9331168483007796e-6" ixy="-8.964055458821853e-11" ixz="-7.917778264767445e-9" iyy="1.9366717747954655e-6" iyz="-7.299706676136226e-8" izz="3.1694089240456203e-7"/>
    </inertial>
    <visual>
      <origin xyz="0 0 0" rpy="0 -0 0"/>
      <geometry>
        <mesh filename="package://meshes/simmechanics/sim_ecub_1-1_l_hand_ring_2.obj" scale="0.001 0.001 0.001"/>
      </geometry>
      <material name="">
        <color rgba="0.5 0.5 0.5 1"/>
      </material>
    </visual>
    <collision>
      <origin xyz="0 0 0" rpy="0 -0 0"/>
      <geometry>
        <mesh filename="package://meshes/simmechanics/sim_ecub_1-1_l_hand_ring_2.obj" scale="0.001 0.001 0.001"/>
      </geometry>
      <material name="">
        <color rgba="0.5 0.5 0.5 1"/>
      </material>
    </collision>
  </link>
  <joint name="l_pinkie_dist" type="revolute">
    <origin xyz="1.4015903021524778e-11 -0.0014999999962120036 -0.03500000000709719" rpy="-4.438681233740257e-5 -1.0794289073690067e-10 -2.489120021209601e-13"/>
    <axis xyz="-0.9999999998538309 7.645451042193251e-6 -1.5293310428212298e-5"/>
    <parent link="l_hand_pinkie_1"/>
    <child link="l_hand_pinkie_2"/>
    <limit lower="0" upper="1.7226399717184033" effort="1e+9" velocity="1e+9"/>
    <dynamics damping="2" friction="0"/>
  </joint>
  <link name="l_hand_pinkie_2">
    <inertial>
      <mass value="0.007240237"/>
      <origin xyz="2.2378292628411067e-5 0.0027712834790767915 -0.018930353878106154" rpy="0 -0 0"/>
      <inertia ixx="1.9251949577353665e-6" ixy="-4.6071411032444134e-10" ixz="-3.7359984605543596e-9" iyy="1.9290048779043837e-6" iyz="-7.606337504739766e-8" izz="3.162424517550918e-7"/>
    </inertial>
    <visual>
      <origin xyz="0 0 0" rpy="0 -0 0"/>
      <geometry>
        <mesh filename="package://meshes/simmechanics/sim_ecub_1-1_l_hand_pinkie_2.obj" scale="0.001 0.001 0.001"/>
      </geometry>
      <material name="">
        <color rgba="0.5 0.5 0.5 1"/>
      </material>
    </visual>
    <collision>
      <origin xyz="0 0 0" rpy="0 -0 0"/>
      <geometry>
        <mesh filename="package://meshes/simmechanics/sim_ecub_1-1_l_hand_pinkie_2.obj" scale="0.001 0.001 0.001"/>
      </geometry>
      <material name="">
        <color rgba="0.5 0.5 0.5 1"/>
      </material>
    </collision>
  </link>
  <joint name="l_middle_dist" type="revolute">
    <origin xyz="1.5440777129116512e-11 -0.001499999999999363 -0.03999999999896309" rpy="0.017535706363213464 -1.0797945176888035e-10 5.917488721252084e-14"/>
    <axis xyz="-1 1.952334931070572e-12 1.0795870667149422e-10"/>
    <parent link="l_hand_middle_1"/>
    <child link="l_hand_middle_2"/>
    <limit lower="0" upper="1.7994344588061537" effort="1e+9" velocity="1e+9"/>
    <dynamics damping="2" friction="0"/>
  </joint>
  <link name="l_hand_middle_2">
    <inertial>
      <mass value="0.007251413"/>
      <origin xyz="4.4316320155644157e-5 0.0027547229469275236 -0.018890877319942878" rpy="0 -0 0"/>
      <inertia ixx="1.933060230194342e-6" ixy="-1.5243567957691928e-10" ixz="-7.8198851655833e-9" iyy="1.9366210236852174e-6" iyz="-7.316224558810137e-8" izz="3.1681825706684464e-7"/>
    </inertial>
    <visual>
      <origin xyz="0 0 0" rpy="0 -0 0"/>
      <geometry>
        <mesh filename="package://meshes/simmechanics/sim_ecub_1-1_l_hand_middle_2.obj" scale="0.001 0.001 0.001"/>
      </geometry>
      <material name="">
        <color rgba="0.5 0.5 0.5 1"/>
      </material>
    </visual>
    <collision>
      <origin xyz="0 0 0" rpy="0 -0 0"/>
      <geometry>
        <mesh filename="package://meshes/simmechanics/sim_ecub_1-1_l_hand_middle_2.obj" scale="0.001 0.001 0.001"/>
      </geometry>
      <material name="">
        <color rgba="0.5 0.5 0.5 1"/>
      </material>
    </collision>
  </link>
  <joint name="l_index_prox" type="revolute">
    <origin xyz="0.00919253334679343 0 -0.030713451309624218" rpy="-3.0531133177191815e-16 -7.023611484080483e-10 -7.771561172376096e-16"/>
    <axis xyz="-1 8.326672684688522e-17 7.023654435833748e-10"/>
    <parent link="l_hand_index_1"/>
    <child link="l_hand_index_2"/>
    <limit lower="0" upper="1.5707963267948966" effort="1e+9" velocity="1e+9"/>
    <dynamics damping="2" friction="0"/>
  </joint>
  <link name="l_hand_index_2">
    <inertial>
      <mass value="0.007486366"/>
      <origin xyz="5.6100110941745274e-5 0.001113133191428639 -0.01742880406449937" rpy="0 -0 0"/>
      <inertia ixx="1.5919421212473372e-6" ixy="-8.197016561018782e-10" ixz="-9.495218356033137e-9" iyy="1.5224880972680802e-6" iyz="1.1144592625272454e-7" izz="3.1764737598732553e-7"/>
    </inertial>
    <visual>
      <origin xyz="0 0 0" rpy="0 -0 0"/>
      <geometry>
        <mesh filename="package://meshes/simmechanics/sim_ecub_1-1_l_hand_index_2.obj" scale="0.001 0.001 0.001"/>
      </geometry>
      <material name="">
        <color rgba="0.5 0.5 0.5 1"/>
      </material>
    </visual>
    <collision>
      <origin xyz="0 0 0" rpy="0 -0 0"/>
      <geometry>
        <mesh filename="package://meshes/simmechanics/sim_ecub_1-1_l_hand_index_2.obj" scale="0.001 0.001 0.001"/>
      </geometry>
      <material name="">
        <color rgba="0.5 0.5 0.5 1"/>
      </material>
    </collision>
  </link>
  <joint name="l_index_dist" type="revolute">
    <origin xyz="-1.3877787807814457e-17 -0.001500000000000029 -0.03999999999999987" rpy="-7.482326172536535e-8 1.8041124150158794e-16 -6.106226635438361e-16"/>
    <axis xyz="-1 -2.359224176539984e-16 4.163337069211178e-17"/>
    <parent link="l_hand_index_2"/>
    <child link="l_hand_index_3"/>
    <limit lower="0" upper="1.7994344588061537" effort="1e+9" velocity="1e+9"/>
    <dynamics damping="2" friction="0"/>
  </joint>
  <link name="l_hand_index_3">
    <inertial>
      <mass value="0.007251413"/>
      <origin xyz="4.431356673249148e-5 0.0027546711855188366 -0.018890916917498335" rpy="0 -0 0"/>
      <inertia ixx="1.932816895772585e-6" ixy="-1.721386036062205e-10" ixz="-7.819556637146551e-9" iyy="1.9363709956455972e-6" iyz="-7.306511833741725e-8" izz="3.169078614257433e-7"/>
    </inertial>
    <visual>
      <origin xyz="0 0 0" rpy="0 -0 0"/>
      <geometry>
        <mesh filename="package://meshes/simmechanics/sim_ecub_1-1_l_hand_index_3.obj" scale="0.001 0.001 0.001"/>
      </geometry>
      <material name="">
        <color rgba="0.5 0.5 0.5 1"/>
      </material>
    </visual>
    <collision>
      <origin xyz="0 0 0" rpy="0 -0 0"/>
      <geometry>
        <mesh filename="package://meshes/simmechanics/sim_ecub_1-1_l_hand_index_3.obj" scale="0.001 0.001 0.001"/>
      </geometry>
      <material name="">
        <color rgba="0.5 0.5 0.5 1"/>
      </material>
    </collision>
  </link>
  <joint name="neck_roll" type="revolute">
    <origin xyz="-3.469446951953614e-18 -2.0477512739548602e-18 0.009499999999999786" rpy="3.759485374392081e-16 -7.253140465106665e-31 2.9582283945787943e-31"/>
    <axis xyz="1 -1.0117515096130839e-16 -3.5088530160992675e-15"/>
    <parent link="neck_2"/>
    <child link="neck_3"/>
    <limit lower="-0.3490658503988659" upper="0.3490658503988659" effort="1e+9" velocity="1e+9"/>
    <dynamics damping="2" friction="0"/>
  </joint>
  <link name="neck_3">
    <inertial>
      <mass value="0.17811376821431446"/>
      <origin xyz="7.590511663558711e-4 -4.0916906938460536e-5 0.036035516549226765" rpy="0 -0 0"/>
      <inertia ixx="9.70548692219775e-5" ixy="1.7629468835177367e-7" ixz="6.130672988864901e-6" iyy="1.0759851740143377e-4" iyz="-2.503969674072287e-7" izz="3.626415440724103e-5"/>
    </inertial>
    <visual>
      <origin xyz="0 0 0" rpy="0 -0 0"/>
      <geometry>
        <mesh filename="package://meshes/simmechanics/sim_ecub_1-1_head_neck_3.obj" scale="0.001 0.001 0.001"/>
      </geometry>
      <material name="">
        <color rgba="0.6 0.6 0.6 1"/>
      </material>
    </visual>
    <collision>
      <origin xyz="0 0 0" rpy="0 -0 0"/>
      <geometry>
        <mesh filename="package://meshes/simmechanics/sim_ecub_1-1_head_neck_3.obj" scale="0.001 0.001 0.001"/>
      </geometry>
      <material name="">
        <color rgba="0.6 0.6 0.6 1"/>
      </material>
    </collision>
  </link>
  <joint name="neck_yaw" type="revolute">
    <origin xyz="1.734723475976807e-18 3.161610468866502e-17 0.06915000000000004" rpy="2.158203661135612e-16 -1.3923936280326421e-15 3.7154289088816133e-16"/>
    <axis xyz="1.3864777873731602e-15 5.917688058911091e-16 0.9999999999999998"/>
    <parent link="neck_3"/>
    <child link="head"/>
    <limit lower="-0.7853981633974483" upper="0.7853981633974483" effort="1e+9" velocity="1e+9"/>
    <dynamics damping="2" friction="0"/>
  </joint>
  <link name="head">
    <inertial>
      <mass value="1.6902682"/>
      <origin xyz="-0.01620091412622722 -0.002268813231724542 0.03500744217497026" rpy="0 -0 0"/>
      <inertia ixx="0.0097840569" ixy="0" ixz="0" iyy="0.010869342" iyz="0" izz="0.0070099259"/>
    </inertial>
    <visual>
      <origin xyz="0 0 0" rpy="0 -0 0"/>
      <geometry>
        <mesh filename="package://meshes/simmechanics/sim_ecub_1-1_head.obj" scale="0.001 0.001 0.001"/>
      </geometry>
      <material name="">
        <color rgba="1 1 1 1"/>
      </material>
    </visual>
    <collision>
      <origin xyz="0 0 0" rpy="0 -0 0"/>
      <geometry>
        <mesh filename="package://meshes/simmechanics/sim_ecub_1-1_head.obj" scale="0.001 0.001 0.001"/>
      </geometry>
      <material name="">
        <color rgba="1 1 1 1"/>
      </material>
    </collision>
  </link>
  <joint name="camera_tilt" type="revolute">
    <origin xyz="0.06251000000000005 -3.0000000001050474e-5 0.07639250000000047" rpy="9.111439807357182e-15 2.5958199361708845e-4 1.6567881612466022e-15"/>
    <axis xyz="2.462374947375715e-16 -1 -1.3590792671843662e-15"/>
    <parent link="head"/>
    <child link="realsense"/>
    <limit lower="-0.5235987755982988" upper="0.5235987755982988" effort="1e+9" velocity="1e+9"/>
    <dynamics damping="2" friction="0"/>
  </joint>
  <link name="realsense">
    <inertial>
      <mass value="0.0973042045264468"/>
      <origin xyz="-0.01566548310600667 0.004519995218644514 0.002745610154123612" rpy="0 -0 0"/>
      <inertia ixx="1.3363140922191058e-4" ixy="4.7877399688365374e-5" ixz="2.5482221369268495e-5" iyy="1.8708641575714753e-4" iyz="-7.171072206331662e-6" izz="2.963329027014652e-4"/>
    </inertial>
    <visual>
      <origin xyz="0 0 0" rpy="0 -0 0"/>
      <geometry>
        <mesh filename="package://meshes/simmechanics/sim_ecub_1-1_realsense.obj" scale="0.001 0.001 0.001"/>
      </geometry>
      <material name="">
        <color rgba="0.6 0.6 0.6 1"/>
      </material>
    </visual>
    <collision>
      <origin xyz="0 0 0" rpy="0 -0 0"/>
      <geometry>
        <mesh filename="package://meshes/simmechanics/sim_ecub_1-1_realsense.obj" scale="0.001 0.001 0.001"/>
      </geometry>
      <material name="">
        <color rgba="0.6 0.6 0.6 1"/>
      </material>
    </collision>
  </link>
  <joint name="r_hip_roll" type="revolute">
    <origin xyz="-0.047250000000000625 -0.033099999999999824 -0.009000000000000091" rpy="-2.73316156054826e-16 2.504641391024977e-16 -3.1036377681447894e-15"/>
    <axis xyz="-1 -3.3813287685016297e-16 -7.120227705451219e-17"/>
    <parent link="r_hip_1"/>
    <child link="r_hip_2"/>
    <limit lower="-0.2792526803190927" upper="1.9024088846738192" effort="1e+9" velocity="1e+9"/>
    <dynamics damping="2" friction="0"/>
  </joint>
  <link name="r_hip_2">
    <inertial>
      <mass value="1.8425374083524118"/>
      <origin xyz="-0.004338858395569037 -4.276785411407025e-5 -0.03711583728304848" rpy="0 -0 0"/>
      <inertia ixx="0.003120303249647105" ixy="2.3735315120274186e-6" ixz="0.0010124685247925123" iyy="0.005459166113270065" iyz="-1.8523984061140002e-6" izz="0.003419002844852166"/>
    </inertial>
    <visual>
      <origin xyz="0 0 0" rpy="0 -0 0"/>
      <geometry>
        <mesh filename="package://meshes/simmechanics/sim_ecub_1-1_r_hip_2.obj" scale="0.001 0.001 0.001"/>
      </geometry>
      <material name="">
        <color rgba="0.6 0.6 0.6 1"/>
      </material>
    </visual>
    <collision>
      <origin xyz="0 0 0" rpy="0 -0 0"/>
      <geometry>
        <mesh filename="package://meshes/simmechanics/sim_ecub_1-1_r_hip_2.obj" scale="0.001 0.001 0.001"/>
      </geometry>
      <material name="">
        <color rgba="0.6 0.6 0.6 1"/>
      </material>
    </collision>
  </link>
  <joint name="r_leg_ft_sensor" type="fixed">
    <origin xyz="0.036699999999999976 -5.551115123125783e-17 -0.08969999999999992" rpy="-1.3775953441385743e-15 5.490828022886651e-16 1.6105578736269433e-15"/>
    <parent link="r_hip_2"/>
    <child link="r_hip_3"/>
  </joint>
  <link name="r_hip_3">
    <inertial>
      <mass value="2.147900058066585"/>
      <origin xyz="0.0051510124501743006 0.012832092744145235 -0.05168842502826221" rpy="0 -0 0"/>
      <inertia ixx="0.007193177523135792" ixy="3.498727117566612e-5" ixz="2.4096738440560362e-5" iyy="0.008149001665389528" iyz="-1.2572783372468582e-4" izz="0.0057278283877820494"/>
    </inertial>
    <visual>
      <origin xyz="0 0 0" rpy="0 -0 0"/>
      <geometry>
        <mesh filename="package://meshes/simmechanics/sim_ecub_1-1_r_hip_3.obj" scale="0.001 0.001 0.001"/>
      </geometry>
      <material name="">
        <color rgba="1 1 1 1"/>
      </material>
    </visual>
    <collision>
      <origin xyz="0 0 0" rpy="0 -0 0"/>
      <geometry>
        <mesh filename="package://meshes/simmechanics/sim_ecub_1-1_r_hip_3.obj" scale="0.001 0.001 0.001"/>
      </geometry>
      <material name="">
        <color rgba="1 1 1 1"/>
      </material>
    </collision>
  </link>
  <joint name="r_hip_yaw" type="revolute">
    <origin xyz="-2.8622937353617317e-16 0.014999999999999777 -0.07269999999999871" rpy="-3.94514163379533e-15 7.430123072146451e-16 1.2193157749540276e-6"/>
    <axis xyz="-2.3953050207433507e-20 1.4749328491810949e-15 -1"/>
    <parent link="r_hip_3"/>
    <child link="r_upper_leg"/>
    <limit lower="-1.3788101090755203" upper="1.3788101090755203" effort="1e+9" velocity="1e+9"/>
    <dynamics damping="2" friction="0"/>
  </joint>
  <link name="r_upper_leg">
    <inertial>
      <mass value="2.784923431729287"/>
      <origin xyz="0.008517474024287675 -0.014468465702474021 -0.12674960557185616" rpy="0 -0 0"/>
      <inertia ixx="0.01186013252999811" ixy="5.455450241372543e-5" ixz="5.393573740676933e-4" iyy="0.01210913335208505" iyz="-4.0331041015476653e-4" izz="0.0022609706907693243"/>
    </inertial>
    <visual>
      <origin xyz="0 0 0" rpy="0 -0 0"/>
      <geometry>
        <mesh filename="package://meshes/simmechanics/sim_ecub_1-1_r_upper_leg.obj" scale="0.001 0.001 0.001"/>
      </geometry>
      <material name="">
        <color rgba="0.6 0.6 0.6 1"/>
      </material>
    </visual>
    <collision>
      <origin xyz="0 0 0" rpy="0 -0 0"/>
      <geometry>
        <mesh filename="package://meshes/simmechanics/sim_ecub_1-1_r_upper_leg.obj" scale="0.001 0.001 0.001"/>
      </geometry>
      <material name="">
        <color rgba="0.6 0.6 0.6 1"/>
      </material>
    </collision>
  </link>
  <joint name="r_knee" type="revolute">
    <origin xyz="0.01060000963260985 0.007899987075259289 -0.17970000000000058" rpy="6.892643261935339e-14 -6.650159361880639e-14 -1.2193157700904425e-6"/>
    <axis xyz="1.2193157766326317e-6 -0.9999999999992566 4.719551160658923e-15"/>
    <parent link="r_upper_leg"/>
    <child link="r_lower_leg"/>
    <limit lower="-1.8151424220741028" upper="0.10471975511965978" effort="1e+9" velocity="1e+9"/>
    <dynamics damping="2" friction="0"/>
  </joint>
  <link name="r_lower_leg">
    <inertial>
      <mass value="3.7621532589747924"/>
      <origin xyz="0.0012157689164458522 -0.006184734585333342 -0.21372759879868175" rpy="0 -0 0"/>
      <inertia ixx="0.04644215616821937" ixy="3.7269274872175814e-5" ixz="-8.519885904633137e-4" iyy="0.047738936736850285" iyz="-0.0018042981721195497" izz="0.004839671863500647"/>
    </inertial>
    <visual>
      <origin xyz="0 0 0" rpy="0 -0 0"/>
      <geometry>
        <mesh filename="package://meshes/simmechanics/sim_ecub_1-1_r_lower_leg.obj" scale="0.001 0.001 0.001"/>
      </geometry>
      <material name="">
        <color rgba="1 1 1 1"/>
      </material>
    </visual>
    <collision>
      <origin xyz="0 0 0" rpy="0 -0 0"/>
      <geometry>
        <mesh filename="package://meshes/simmechanics/sim_ecub_1-1_r_lower_leg.obj" scale="0.001 0.001 0.001"/>
      </geometry>
      <material name="">
        <color rgba="1 1 1 1"/>
      </material>
    </collision>
  </link>
  <joint name="r_ankle_pitch" type="revolute">
    <origin xyz="-5.936223734792634e-15 -0.03190000000000005 -0.3210000000000002" rpy="-2.9932805576414174e-15 -2.0242047360524565e-14 8.880636788937802e-17"/>
    <axis xyz="-3.505264366441263e-17 1 -1.331317022347139e-16"/>
    <parent link="r_lower_leg"/>
    <child link="r_ankle_1"/>
    <limit lower="-0.7853981633974483" upper="0.7853981633974483" effort="1e+9" velocity="1e+9"/>
    <dynamics damping="2" friction="0"/>
  </joint>
  <link name="r_ankle_1">
    <inertial>
      <mass value="0.3481278950635556"/>
      <origin xyz="-0.0013672309746954776 -6.60186959019704e-4 -0.014087432401547305" rpy="0 -0 0"/>
      <inertia ixx="2.473401259521522e-4" ixy="8.99187320178455e-6" ixz="-1.033697569192024e-5" iyy="5.75349339563699e-4" iyz="5.5239266965789845e-5" izz="4.6267603893513845e-4"/>
    </inertial>
    <visual>
      <origin xyz="0 0 0" rpy="0 -0 0"/>
      <geometry>
        <mesh filename="package://meshes/simmechanics/sim_ecub_1-1_r_ankle_1.obj" scale="0.001 0.001 0.001"/>
      </geometry>
      <material name="">
        <color rgba="0.6 0.6 0.6 1"/>
      </material>
    </visual>
    <collision>
      <origin xyz="0 0 0" rpy="0 -0 0"/>
      <geometry>
        <mesh filename="package://meshes/simmechanics/sim_ecub_1-1_r_ankle_1.obj" scale="0.001 0.001 0.001"/>
      </geometry>
      <material name="">
        <color rgba="0.6 0.6 0.6 1"/>
      </material>
    </collision>
  </link>
  <joint name="r_ankle_roll" type="revolute">
    <origin xyz="-0.052750000000001546 0.018200000000000008 -0.0349999999999977" rpy="-1.0176053241861382e-24 3.8838282931741325e-14 -9.278622199115707e-23"/>
    <axis xyz="-1 -1.628246671334752e-16 2.560295622560413e-15"/>
    <parent link="r_ankle_1"/>
    <child link="r_ankle_2"/>
    <limit lower="-0.4363323129985824" upper="0.4363323129985824" effort="1e+9" velocity="1e+9"/>
    <dynamics damping="2" friction="0"/>
  </joint>
  <link name="r_ankle_2">
    <inertial>
      <mass value="1.5418216247038539"/>
      <origin xyz="0.04052646811695935 -8.642493098851012e-5 -0.023871143533700234" rpy="0 -0 0"/>
      <inertia ixx="0.002144088293229702" ixy="2.3071453411493782e-5" ixz="0.0013223759105869606" iyy="0.009438348902378931" iyz="-3.077717707147486e-5" izz="0.009024460701602049"/>
    </inertial>
    <visual>
      <origin xyz="0 0 0" rpy="0 -0 0"/>
      <geometry>
        <mesh filename="package://meshes/simmechanics/sim_ecub_1-1_r_ankle_2.obj" scale="0.001 0.001 0.001"/>
      </geometry>
      <material name="">
        <color rgba="1 1 1 1"/>
      </material>
    </visual>
    <collision>
      <origin xyz="0 0 0" rpy="0 -0 0"/>
      <geometry>
        <mesh filename="package://meshes/simmechanics/sim_ecub_1-1_r_ankle_2.obj" scale="0.001 0.001 0.001"/>
      </geometry>
      <material name="">
        <color rgba="1 1 1 1"/>
      </material>
    </collision>
  </link>
  <joint name="r_foot_front_ft_sensor" type="fixed">
    <origin xyz="0.13525000000000004 0 -0.04789999999999994" rpy="2.66139136471374e-17 -9.20811369242055e-17 -1.4551888385804406e-15"/>
    <parent link="r_ankle_2"/>
    <child link="r_foot_front"/>
  </joint>
  <link name="r_foot_front">
    <inertial>
      <mass value="0.22110467939552797"/>
      <origin xyz="5.879202911245884e-4 -3.747924692820703e-9 -0.02000061661590058" rpy="0 -0 0"/>
      <inertia ixx="1.912506447891574e-4" ixy="2.357895453228089e-19" ixz="-3.4706466956949253e-9" iyy="2.6091266876367765e-4" iyz="5.375663344600725e-18" izz="4.500881026346283e-4"/>
    </inertial>
    <visual>
      <origin xyz="0 0 0" rpy="0 -0 0"/>
      <geometry>
        <mesh filename="package://meshes/simmechanics/sim_ecub_1-1_r_foot_front.obj" scale="0.001 0.001 0.001"/>
      </geometry>
      <material name="">
        <color rgba="1 0.51 0 1"/>
      </material>
    </visual>
    <collision>
      <origin xyz="0 0 -0.0193" rpy="0 -0 0"/>
      <geometry>
        <box size="0.117 0.1 0.006"/>
      </geometry>
    </collision>
  </link>
  <joint name="r_foot_rear_ft_sensor" type="fixed">
    <origin xyz="0.016 0 -0.04789999999999983" rpy="2.661391364712478e-17 -9.208113692419957e-17 -1.566211141042955e-15"/>
    <parent link="r_ankle_2"/>
    <child link="r_foot_rear"/>
  </joint>
  <link name="r_foot_rear">
    <inertial>
      <mass value="0.22110467939552797"/>
      <origin xyz="5.879202911244878e-4 -3.747924665065128e-9 -0.020000616615901023" rpy="0 -0 0"/>
      <inertia ixx="1.9125064478893547e-4" ixy="2.3192252624427304e-19" ixz="-3.4706466752314563e-9" iyy="2.609126687634939e-4" iyz="5.375663150730269e-18" izz="4.5008810263463014e-4"/>
    </inertial>
    <visual>
      <origin xyz="0 0 0" rpy="0 -0 0"/>
      <geometry>
        <mesh filename="package://meshes/simmechanics/sim_ecub_1-1_r_foot_rear.obj" scale="0.001 0.001 0.001"/>
      </geometry>
      <material name="">
        <color rgba="1 0.51 0 1"/>
      </material>
    </visual>
    <collision>
      <origin xyz="0 0 -0.0193" rpy="0 -0 0"/>
      <geometry>
        <box size="0.117 0.1 0.006"/>
      </geometry>
    </collision>
  </link>
  <joint name="l_hip_roll" type="revolute">
    <origin xyz="-0.04725000000000078 0.033100000000000004 -0.009000000000000119" rpy="7.584245024416732e-16 1.5745686587446743e-30 1.1102230246251548e-16"/>
    <axis xyz="1 -6.123233995736708e-17 6.3201403498236e-16"/>
    <parent link="l_hip_1"/>
    <child link="l_hip_2"/>
    <limit lower="-0.2792526803190927" upper="1.9024088846738192" effort="1e+9" velocity="1e+9"/>
    <dynamics damping="2" friction="0"/>
  </joint>
  <link name="l_hip_2">
    <inertial>
      <mass value="1.8338392164825101"/>
      <origin xyz="-0.004125697068299468 3.917475804632309e-5 -0.03750964603556273" rpy="0 -0 0"/>
      <inertia ixx="0.003159514595905926" ixy="-1.6542815235215681e-6" ixz="9.977368607484037e-4" iyy="0.005488243677251951" iyz="-2.1904093887368695e-6" izz="0.0033984945726571185"/>
    </inertial>
    <visual>
      <origin xyz="0 0 0" rpy="0 -0 0"/>
      <geometry>
        <mesh filename="package://meshes/simmechanics/sim_ecub_1-1_l_hip_2.obj" scale="0.001 0.001 0.001"/>
      </geometry>
      <material name="">
        <color rgba="0.6 0.6 0.6 1"/>
      </material>
    </visual>
    <collision>
      <origin xyz="0 0 0" rpy="0 -0 0"/>
      <geometry>
        <mesh filename="package://meshes/simmechanics/sim_ecub_1-1_l_hip_2.obj" scale="0.001 0.001 0.001"/>
      </geometry>
      <material name="">
        <color rgba="0.6 0.6 0.6 1"/>
      </material>
    </collision>
  </link>
  <joint name="l_leg_ft_sensor" type="fixed">
    <origin xyz="0.03669999999999985 -1.3877787807814457e-17 -0.08970000000000003" rpy="-1.1075796462727634e-15 -2.3847605106274887e-30 2.775557561562846e-16"/>
    <parent link="l_hip_2"/>
    <child link="l_hip_3"/>
  </joint>
  <link name="l_hip_3">
    <inertial>
      <mass value="2.147524084050246"/>
      <origin xyz="0.005176125839593024 -0.01282881302682233 -0.05174852447453404" rpy="0 -0 0"/>
      <inertia ixx="0.007242161971060034" ixy="-3.321392954197042e-5" ixz="2.505985505401264e-5" iyy="0.008197962692605146" iyz="1.2474874840596051e-4" izz="0.005727458772759987"/>
    </inertial>
    <visual>
      <origin xyz="0 0 0" rpy="0 -0 0"/>
      <geometry>
        <mesh filename="package://meshes/simmechanics/sim_ecub_1-1_l_hip_3.obj" scale="0.001 0.001 0.001"/>
      </geometry>
      <material name="">
        <color rgba="1 1 1 1"/>
      </material>
    </visual>
    <collision>
      <origin xyz="0 0 0" rpy="0 -0 0"/>
      <geometry>
        <mesh filename="package://meshes/simmechanics/sim_ecub_1-1_l_hip_3.obj" scale="0.001 0.001 0.001"/>
      </geometry>
      <material name="">
        <color rgba="1 1 1 1"/>
      </material>
    </collision>
  </link>
  <joint name="l_hip_yaw" type="revolute">
    <origin xyz="-8.448103328007051e-16 -0.014999999999999944 -0.07269999999999993" rpy="3.011883887564833e-16 1.143142903721238e-14 -2.2204460492502608e-16"/>
    <axis xyz="-8.622588011769357e-16 1.593666547307703e-16 1"/>
    <parent link="l_hip_3"/>
    <child link="l_upper_leg"/>
    <limit lower="-1.3788101090755203" upper="1.3788101090755203" effort="1e+9" velocity="1e+9"/>
    <dynamics damping="2" friction="0"/>
  </joint>
  <link name="l_upper_leg">
    <inertial>
      <mass value="2.784923431765453"/>
      <origin xyz="0.008503494694160183 0.014484874736048647 -0.12674659802303312" rpy="0 -0 0"/>
      <inertia ixx="0.011852293952284196" ixy="-4.907145319317264e-5" ixz="5.393933817879138e-4" iyy="0.012109807149567942" iyz="3.9208918647670385e-4" izz="0.002253627916731084"/>
    </inertial>
    <visual>
      <origin xyz="0 0 0" rpy="0 -0 0"/>
      <geometry>
        <mesh filename="package://meshes/simmechanics/sim_ecub_1-1_l_upper_leg.obj" scale="0.001 0.001 0.001"/>
      </geometry>
      <material name="">
        <color rgba="0.6 0.6 0.6 1"/>
      </material>
    </visual>
    <collision>
      <origin xyz="0 0 0" rpy="0 -0 0"/>
      <geometry>
        <mesh filename="package://meshes/simmechanics/sim_ecub_1-1_l_upper_leg.obj" scale="0.001 0.001 0.001"/>
      </geometry>
      <material name="">
        <color rgba="0.6 0.6 0.6 1"/>
      </material>
    </collision>
  </link>
  <joint name="l_knee" type="revolute">
    <origin xyz="0.010600000000000822 -0.007900000000000185 -0.17969999999999958" rpy="1.970486418692682e-16 -1.1419428146632273e-14 2.8602839935211434e-15"/>
    <axis xyz="-2.608937546411318e-16 -1 5.166588955193111e-17"/>
    <parent link="l_upper_leg"/>
    <child link="l_lower_leg"/>
    <limit lower="-1.8151424220741028" upper="0.10471975511965978" effort="1e+9" velocity="1e+9"/>
    <dynamics damping="2" friction="0"/>
  </joint>
  <link name="l_lower_leg">
    <inertial>
      <mass value="3.767581145212888"/>
      <origin xyz="0.0014201768088090358 0.006186333743956739 -0.21383298861124922" rpy="0 -0 0"/>
      <inertia ixx="0.04647110900067475" ixy="-2.1189289797886653e-5" ixz="-8.110710215722959e-4" iyy="0.04776726641499918" iyz="0.0018123762001582078" izz="0.004840491251955261"/>
    </inertial>
    <visual>
      <origin xyz="0 0 0" rpy="0 -0 0"/>
      <geometry>
        <mesh filename="package://meshes/simmechanics/sim_ecub_1-1_l_lower_leg.obj" scale="0.001 0.001 0.001"/>
      </geometry>
      <material name="">
        <color rgba="1 1 1 1"/>
      </material>
    </visual>
    <collision>
      <origin xyz="0 0 0" rpy="0 -0 0"/>
      <geometry>
        <mesh filename="package://meshes/simmechanics/sim_ecub_1-1_l_lower_leg.obj" scale="0.001 0.001 0.001"/>
      </geometry>
      <material name="">
        <color rgba="1 1 1 1"/>
      </material>
    </collision>
  </link>
  <joint name="l_ankle_pitch" type="revolute">
    <origin xyz="-4.468647674116255e-15 0.03189999999999981 -0.3209999999999995" rpy="-1.9704864186927032e-16 -8.673617379880112e-19 -1.8683953730959558e-16"/>
    <axis xyz="-2.389602037081462e-16 1 1.4538275231733847e-16"/>
    <parent link="l_lower_leg"/>
    <child link="l_ankle_1"/>
    <limit lower="-0.7853981633974483" upper="0.7853981633974483" effort="1e+9" velocity="1e+9"/>
    <dynamics damping="2" friction="0"/>
  </joint>
  <link name="l_ankle_1">
    <inertial>
      <mass value="0.3481278951519182"/>
      <origin xyz="-0.0013852125067176195 6.601869600093568e-4 -0.014087432474324535" rpy="0 -0 0"/>
      <inertia ixx="2.473401268224257e-4" ixy="-8.882076128769303e-6" ixz="-7.868443555728613e-6" iyy="5.753321096553087e-4" iyz="-5.523926679103168e-5" izz="4.6265880787367867e-4"/>
    </inertial>
    <visual>
      <origin xyz="0 0 0" rpy="0 -0 0"/>
      <geometry>
        <mesh filename="package://meshes/simmechanics/sim_ecub_1-1_l_ankle_1.obj" scale="0.001 0.001 0.001"/>
      </geometry>
      <material name="">
        <color rgba="0.6 0.6 0.6 1"/>
      </material>
    </visual>
    <collision>
      <origin xyz="0 0 0" rpy="0 -0 0"/>
      <geometry>
        <mesh filename="package://meshes/simmechanics/sim_ecub_1-1_l_ankle_1.obj" scale="0.001 0.001 0.001"/>
      </geometry>
      <material name="">
        <color rgba="0.6 0.6 0.6 1"/>
      </material>
    </collision>
  </link>
  <joint name="l_ankle_roll" type="revolute">
    <origin xyz="-0.052750000000000324 -0.01819999999999991 -0.03499999999999959" rpy="3.340196646750626e-19 1.1217589357404033e-14 -2.3665827156630354e-30"/>
    <axis xyz="1 -4.05028482201375e-16 -1.2496691978128869e-15"/>
    <parent link="l_ankle_1"/>
    <child link="l_ankle_2"/>
    <limit lower="-0.4363323129985824" upper="0.4363323129985824" effort="1e+9" velocity="1e+9"/>
    <dynamics damping="2" friction="0"/>
  </joint>
  <link name="l_ankle_2">
    <inertial>
      <mass value="1.5418216247038539"/>
      <origin xyz="0.0405224005088543 -9.790751646740482e-5 -0.02387114353368558" rpy="0 -0 0"/>
      <inertia ixx="0.00213706133623208" ixy="1.9973294407387216e-5" ixz="0.0013251325687512008" iyy="0.00943819778520643" iyz="-1.5070602593015444e-5" izz="0.00901728262743037"/>
    </inertial>
    <visual>
      <origin xyz="0 0 0" rpy="0 -0 0"/>
      <geometry>
        <mesh filename="package://meshes/simmechanics/sim_ecub_1-1_l_ankle_2.obj" scale="0.001 0.001 0.001"/>
      </geometry>
      <material name="">
        <color rgba="1 1 1 1"/>
      </material>
    </visual>
    <collision>
      <origin xyz="0 0 0" rpy="0 -0 0"/>
      <geometry>
        <mesh filename="package://meshes/simmechanics/sim_ecub_1-1_l_ankle_2.obj" scale="0.001 0.001 0.001"/>
      </geometry>
      <material name="">
        <color rgba="1 1 1 1"/>
      </material>
    </collision>
  </link>
  <joint name="l_foot_front_ft_sensor" type="fixed">
    <origin xyz="0.13524999999999998 -5.551115123125783e-17 -0.047899999999999165" rpy="-8.751425667295598e-31 1.9428902930939912e-16 -9.788946385468152e-16"/>
    <parent link="l_ankle_2"/>
    <child link="l_foot_front"/>
  </joint>
  <link name="l_foot_front">
    <inertial>
      <mass value="0.22110467939552797"/>
      <origin xyz="5.879202911245329e-4 -3.747924692820703e-9 -0.02000061661590158" rpy="0 -0 0"/>
      <inertia ixx="1.9125064478898706e-4" ixy="2.0351856158593786e-19" ixz="-3.470646686211968e-9" iyy="2.6091266876353844e-4" iyz="9.784057075164868e-21" izz="4.5008810263460987e-4"/>
    </inertial>
    <visual>
      <origin xyz="0 0 0" rpy="0 -0 0"/>
      <geometry>
        <mesh filename="package://meshes/simmechanics/sim_ecub_1-1_l_foot_front.obj" scale="0.001 0.001 0.001"/>
      </geometry>
      <material name="">
        <color rgba="1 0.51 0 1"/>
      </material>
    </visual>
    <collision>
      <origin xyz="0 0 -0.0193" rpy="0 -0 0"/>
      <geometry>
        <box size="0.117 0.1 0.006"/>
      </geometry>
    </collision>
  </link>
  <joint name="l_foot_rear_ft_sensor" type="fixed">
    <origin xyz="0.015999999999999986 -4.163336342344337e-17 -0.04789999999999994" rpy="-1.0970096963229695e-30 1.942890293093975e-16 2.0306083615826833e-17"/>
    <parent link="l_ankle_2"/>
    <child link="l_foot_rear"/>
  </joint>
  <link name="l_foot_rear">
    <inertial>
      <mass value="0.22110467939552797"/>
      <origin xyz="5.879202911244826e-4 -3.7479246789429155e-9 -0.020000616615901134" rpy="0 -0 0"/>
      <inertia ixx="1.912506447889398e-4" ixy="2.0351856158593786e-19" ixz="-3.470646677571385e-9" iyy="2.6091266876349345e-4" iyz="9.784057075164868e-21" izz="4.50088102634634e-4"/>
    </inertial>
    <visual>
      <origin xyz="0 0 0" rpy="0 -0 0"/>
      <geometry>
        <mesh filename="package://meshes/simmechanics/sim_ecub_1-1_l_foot_rear.obj" scale="0.001 0.001 0.001"/>
      </geometry>
      <material name="">
        <color rgba="1 0.51 0 1"/>
      </material>
    </visual>
    <collision>
      <origin xyz="0 0 -0.0193" rpy="0 -0 0"/>
      <geometry>
        <box size="0.117 0.1 0.006"/>
      </geometry>
    </collision>
  </link>
  <link name="head_imu_0"/>
  <joint name="head_imu_0_fixed_joint" type="fixed">
    <origin xyz="-0.004299999999999899 -0.005500000000001061 0.03823450000000106" rpy="-3.141592653589788 -9.688477917552238e-15 1.5707963267948986"/>
    <parent link="head"/>
    <child link="head_imu_0"/>
  </joint>
  <link name="realsense_imu_0"/>
  <joint name="realsense_imu_0_fixed_joint" type="fixed">
    <origin xyz="0.007515481871156526 0.010000000000000002 1.7352099479506222e-8" rpy="-1.5707963267948966 3.7596758519972983e-16 -1.5707963267948966"/>
    <parent link="realsense"/>
    <child link="realsense_imu_0"/>
  </joint>
  <link name="l_arm_ft"/>
  <joint name="l_arm_ft_fixed_joint" type="fixed">
    <origin xyz="-0.004349999999999996 -2.7755575615628914e-17 -0.054300000000000015" rpy="3.141592653589793 2.498001805406602e-16 -1.5707963267948952"/>
    <parent link="l_shoulder_2"/>
    <child link="l_arm_ft"/>
  </joint>
  <link name="l_foot_front_ft"/>
  <joint name="l_foot_front_ft_fixed_joint" type="fixed">
    <origin xyz="0.13525 -4.163336342344337e-17 -0.047899999999999054" rpy="-4.259189482954547e-17 -7.513330770412076e-17 -2.0943951023931966"/>
    <parent link="l_ankle_2"/>
    <child link="l_foot_front_ft"/>
  </joint>
  <link name="l_foot_rear_ft"/>
  <joint name="l_foot_rear_ft_fixed_joint" type="fixed">
    <origin xyz="0.015999999999999993 -2.7755575615628914e-17 -0.04789999999999983" rpy="-4.259189482954531e-17 -7.513330770412153e-17 -2.0943951023931957"/>
    <parent link="l_ankle_2"/>
    <child link="l_foot_rear_ft"/>
  </joint>
  <link name="l_leg_ft"/>
  <joint name="l_leg_ft_fixed_joint" type="fixed">
    <origin xyz="0.03669999999999986 -1.3877787807814457e-17 -0.08969999999999997" rpy="-3.1415926535897927 -1.4675346083959194e-15 2.617993877991494"/>
    <parent link="l_hip_2"/>
    <child link="l_leg_ft"/>
  </joint>
  <link name="r_arm_ft"/>
  <joint name="r_arm_ft_fixed_joint" type="fixed">
    <origin xyz="-0.006849999999999986 -2.7755575615628914e-17 -0.05429999999999999" rpy="3.141592653589793 1.6653345369377348e-16 1.5707963267948981"/>
    <parent link="r_shoulder_2"/>
    <child link="r_arm_ft"/>
  </joint>
  <link name="r_foot_front_ft"/>
  <joint name="r_foot_front_ft_fixed_joint" type="fixed">
    <origin xyz="0.13525 1.3877787807814457e-17 -0.04789999999999983" rpy="-4.2591894829555776e-17 -7.513330770412949e-17 -2.094395102393197"/>
    <parent link="r_ankle_2"/>
    <child link="r_foot_front_ft"/>
  </joint>
  <link name="r_foot_rear_ft"/>
  <joint name="r_foot_rear_ft_fixed_joint" type="fixed">
    <origin xyz="0.016 1.3877787807814457e-17 -0.04789999999999994" rpy="-4.2591894829543154e-17 -7.513330770412949e-17 -2.0943951023931966"/>
    <parent link="r_ankle_2"/>
    <child link="r_foot_rear_ft"/>
  </joint>
  <link name="r_leg_ft"/>
  <joint name="r_leg_ft_fixed_joint" type="fixed">
    <origin xyz="0.03669999999999999 0 -0.08969999999999997" rpy="-3.1415926535897927 -8.654368135774127e-16 -2.6179938779914935"/>
    <parent link="r_hip_2"/>
    <child link="r_leg_ft"/>
  </joint>
  <link name="realsense_depth_frame"/>
  <joint name="realsense_depth_frame_fixed_joint" type="fixed">
    <origin xyz="0.007515481871156526 0.010000000000000002 1.7352099479506222e-8" rpy="-1.5707963267948966 3.7596758519972983e-16 -1.5707963267948966"/>
    <parent link="realsense"/>
    <child link="realsense_depth_frame"/>
  </joint>
  <link name="imu_frame"/>
  <joint name="imu_frame_fixed_joint" type="fixed">
    <origin xyz="-0.004299999999999899 -0.005500000000001061 0.03823450000000106" rpy="-3.141592653589788 -9.688477917552238e-15 1.5707963267948986"/>
    <parent link="head"/>
    <child link="imu_frame"/>
  </joint>
  <link name="realsense_rgb_frame"/>
  <joint name="realsense_rgb_frame_fixed_joint" type="fixed">
    <origin xyz="0.007515481871156526 -0.011499999999999996 1.7352099701550827e-8" rpy="-1.5707963267948966 3.7596758519972983e-16 -1.5707963267948966"/>
    <parent link="realsense"/>
    <child link="realsense_rgb_frame"/>
  </joint>
  <link name="head_laser_frame"/>
  <joint name="head_laser_frame_fixed_joint" type="fixed">
    <origin xyz="5.000000000061726e-5 -1.938549701738834e-15 0.13480249990363524" rpy="9.721954681893984e-15 5.33156930061495e-15 3.167605067133685e-15"/>
    <parent link="head"/>
    <child link="head_laser_frame"/>
  </joint>
  <link name="l_hand_index_skin_0"/>
  <joint name="l_hand_index_skin_0_fixed_joint" type="fixed">
    <origin xyz="-1.3877787807814457e-17 -0.002433918058236534 -0.03140545777888892" rpy="-5.286130912234566e-16 1.2225055986691187 -1.570796326794897"/>
    <parent link="l_hand_index_3"/>
    <child link="l_hand_index_skin_0"/>
  </joint>
  <link name="l_hand_index_skin_1"/>
  <joint name="l_hand_index_skin_1_fixed_joint" type="fixed">
    <origin xyz="0.0032999999999999974 -0.0031311476143919548 -0.033280418005286916" rpy="-5.049308804587452e-16 1.2200949024613605 -1.570796326794897"/>
    <parent link="l_hand_index_3"/>
    <child link="l_hand_index_skin_1"/>
  </joint>
  <link name="l_hand_index_skin_10"/>
  <joint name="l_hand_index_skin_10_fixed_joint" type="fixed">
    <origin xyz="-0.003300000000000025 -0.004081940988398508 -0.03776668459795801" rpy="-3.1415926535897913 1.5049109712528748 1.5707963267948997"/>
    <parent link="l_hand_index_3"/>
    <child link="l_hand_index_skin_10"/>
  </joint>
  <link name="l_hand_index_skin_11"/>
  <joint name="l_hand_index_skin_11_fixed_joint" type="fixed">
    <origin xyz="-0.0033000000000000113 -0.0031311476143919548 -0.033280418005286916" rpy="-5.049308804587451e-16 1.2200949024613599 -1.570796326794897"/>
    <parent link="l_hand_index_3"/>
    <child link="l_hand_index_skin_11"/>
  </joint>
  <link name="l_hand_index_skin_2"/>
  <joint name="l_hand_index_skin_2_fixed_joint" type="fixed">
    <origin xyz="-6.938893903907228e-18 -0.003758241653579991 -0.035192049408458936" rpy="-6.620570360759466e-16 1.3056813328515076 -1.5707963267948972"/>
    <parent link="l_hand_index_3"/>
    <child link="l_hand_index_skin_2"/>
  </joint>
  <link name="l_hand_index_skin_3"/>
  <joint name="l_hand_index_skin_3_fixed_joint" type="fixed">
    <origin xyz="0.0032999999999999974 -0.004081940988398425 -0.03776668459795801" rpy="-3.1415926535897913 1.5049109712528748 1.5707963267948997"/>
    <parent link="l_hand_index_3"/>
    <child link="l_hand_index_skin_3"/>
  </joint>
  <link name="l_hand_index_skin_4"/>
  <joint name="l_hand_index_skin_4_fixed_joint" type="fixed">
    <origin xyz="0.005929525942276338 -0.001192320688661208 -0.03799999999999998" rpy="3.1415926535897922 1.2994442229713599 2.7771555423255903"/>
    <parent link="l_hand_index_3"/>
    <child link="l_hand_index_skin_4"/>
  </joint>
  <link name="l_hand_index_skin_5"/>
  <joint name="l_hand_index_skin_5_fixed_joint" type="fixed">
    <origin xyz="1.3877787807814457e-17 -0.0034840921633512434 -0.03982136611863335" rpy="-3.1415926535897927 1.088751329798359 1.5707963267948972"/>
    <parent link="l_hand_index_3"/>
    <child link="l_hand_index_skin_5"/>
  </joint>
  <link name="l_hand_index_skin_6"/>
  <joint name="l_hand_index_skin_6_fixed_joint" type="fixed">
    <origin xyz="0.0032999999999999696 -0.001828801718873424 -0.04176963440415199" rpy="3.141592653589793 0.7788155893137823 2.5320677565812"/>
    <parent link="l_hand_index_3"/>
    <child link="l_hand_index_skin_6"/>
  </joint>
  <link name="l_hand_index_skin_7"/>
  <joint name="l_hand_index_skin_7_fixed_joint" type="fixed">
    <origin xyz="-6.938893903907228e-18 -2.9018466437888413e-4 -0.043259640911881" rpy="-3.141592653589793 0.6209480183022732 1.571212482632116"/>
    <parent link="l_hand_index_3"/>
    <child link="l_hand_index_skin_7"/>
  </joint>
  <link name="l_hand_index_skin_8"/>
  <joint name="l_hand_index_skin_8_fixed_joint" type="fixed">
    <origin xyz="-0.003300000000000025 -0.0018288017188733685 -0.041769634404151934" rpy="-3.1415926535897927 0.7788155893137829 0.6095248970085935"/>
    <parent link="l_hand_index_3"/>
    <child link="l_hand_index_skin_8"/>
  </joint>
  <link name="l_hand_index_skin_9"/>
  <joint name="l_hand_index_skin_9_fixed_joint" type="fixed">
    <origin xyz="-0.005929525942276387 -0.001192320688661208 -0.03799999999999998" rpy="-3.141592653589792 1.2994442229713608 0.36443711126420336"/>
    <parent link="l_hand_index_3"/>
    <child link="l_hand_index_skin_9"/>
  </joint>
  <link name="l_hand_middle_skin_0"/>
  <joint name="l_hand_middle_skin_0_fixed_joint" type="fixed">
    <origin xyz="0 -0.002433918058236506 -0.03140545777888887" rpy="1.626501819149097e-16 1.22250559866912 -1.5707963267948966"/>
    <parent link="l_hand_middle_2"/>
    <child link="l_hand_middle_skin_0"/>
  </joint>
  <link name="l_hand_middle_skin_1"/>
  <joint name="l_hand_middle_skin_1_fixed_joint" type="fixed">
    <origin xyz="0.0033000000000000043 -0.003131147614391927 -0.033280418005286805" rpy="1.615778817467984e-16 1.2200949024613614 -1.5707963267948966"/>
    <parent link="l_hand_middle_2"/>
    <child link="l_hand_middle_skin_1"/>
  </joint>
  <link name="l_hand_middle_skin_10"/>
  <joint name="l_hand_middle_skin_10_fixed_joint" type="fixed">
    <origin xyz="-0.003299999999999973 -0.004081940988398425 -0.037766684597957956" rpy="3.1415926535897922 1.5049109712528765 1.5707963267948972"/>
    <parent link="l_hand_middle_2"/>
    <child link="l_hand_middle_skin_10"/>
  </joint>
  <link name="l_hand_middle_skin_11"/>
  <joint name="l_hand_middle_skin_11_fixed_joint" type="fixed">
    <origin xyz="-0.003299999999999994 -0.0031311476143918715 -0.033280418005286805" rpy="1.615778817467984e-16 1.2200949024613614 -1.5707963267948966"/>
    <parent link="l_hand_middle_2"/>
    <child link="l_hand_middle_skin_11"/>
  </joint>
  <link name="l_hand_middle_skin_2"/>
  <joint name="l_hand_middle_skin_2_fixed_joint" type="fixed">
    <origin xyz="-6.938893903907228e-18 -0.0037582416535799634 -0.035192049408458936" rpy="2.118582515443029e-16 1.305681332851508 -1.5707963267948966"/>
    <parent link="l_hand_middle_2"/>
    <child link="l_hand_middle_skin_2"/>
  </joint>
  <link name="l_hand_middle_skin_3"/>
  <joint name="l_hand_middle_skin_3_fixed_joint" type="fixed">
    <origin xyz="0.0033000000000000113 -0.004081940988398369 -0.03776668459795801" rpy="3.1415926535897922 1.5049109712528765 1.5707963267948968"/>
    <parent link="l_hand_middle_2"/>
    <child link="l_hand_middle_skin_3"/>
  </joint>
  <link name="l_hand_middle_skin_4"/>
  <joint name="l_hand_middle_skin_4_fixed_joint" type="fixed">
    <origin xyz="0.005929525942276356 -0.0011923206886611804 -0.03799999999999998" rpy="3.1415926535897922 1.2994442229713614 2.7771555423255903"/>
    <parent link="l_hand_middle_2"/>
    <child link="l_hand_middle_skin_4"/>
  </joint>
  <link name="l_hand_middle_skin_5"/>
  <joint name="l_hand_middle_skin_5_fixed_joint" type="fixed">
    <origin xyz="1.0408340855860843e-17 -0.0034840921633511046 -0.03982136611863335" rpy="3.141592653589793 1.0887513297983595 1.570796326794897"/>
    <parent link="l_hand_middle_2"/>
    <child link="l_hand_middle_skin_5"/>
  </joint>
  <link name="l_hand_middle_skin_6"/>
  <joint name="l_hand_middle_skin_6_fixed_joint" type="fixed">
    <origin xyz="0.003300000000000008 -0.0018288017188733685 -0.04176963440415188" rpy="3.1415926535897927 0.7788155893137828 2.5320677565811995"/>
    <parent link="l_hand_middle_2"/>
    <child link="l_hand_middle_skin_6"/>
  </joint>
  <link name="l_hand_middle_skin_7"/>
  <joint name="l_hand_middle_skin_7_fixed_joint" type="fixed">
    <origin xyz="-3.469446951953614e-18 -2.9018466437885637e-4 -0.04325964091188095" rpy="3.141592653589793 0.6209480183022731 1.571212482632116"/>
    <parent link="l_hand_middle_2"/>
    <child link="l_hand_middle_skin_7"/>
  </joint>
  <link name="l_hand_middle_skin_8"/>
  <joint name="l_hand_middle_skin_8_fixed_joint" type="fixed">
    <origin xyz="-0.003299999999999994 -0.0018288017188733963 -0.041769634404151934" rpy="-3.141592653589793 0.7788155893137828 0.6095248970085932"/>
    <parent link="l_hand_middle_2"/>
    <child link="l_hand_middle_skin_8"/>
  </joint>
  <link name="l_hand_middle_skin_9"/>
  <joint name="l_hand_middle_skin_9_fixed_joint" type="fixed">
    <origin xyz="-0.0059295259422763695 -0.001192320688661208 -0.03799999999999998" rpy="-3.1415926535897922 1.2994442229713608 0.3644371112642029"/>
    <parent link="l_hand_middle_2"/>
    <child link="l_hand_middle_skin_9"/>
  </joint>
  <link name="l_hand_pinkie_skin_0"/>
  <joint name="l_hand_pinkie_skin_0_fixed_joint" type="fixed">
    <origin xyz="1.1364587082021704e-6 -0.0024339180633243807 -0.03140545776518122" rpy="4.4810406990145916e-5 1.222505598463966 -1.5707618523704918"/>
    <parent link="l_hand_pinkie_2"/>
    <child link="l_hand_pinkie_skin_0"/>
  </joint>
  <link name="l_hand_pinkie_skin_1"/>
  <joint name="l_hand_pinkie_skin_1_fixed_joint" type="fixed">
    <origin xyz="0.003301159802142385 -0.003131172849448638 -0.033280367523160825" rpy="4.451498643578038e-5 1.2200949022586114 -1.5707621667995164"/>
    <parent link="l_hand_pinkie_2"/>
    <child link="l_hand_pinkie_skin_1"/>
  </joint>
  <link name="l_hand_pinkie_skin_10"/>
  <joint name="l_hand_pinkie_skin_10_fixed_joint" type="fixed">
    <origin xyz="-0.003298778855785424 -0.004081915763448796 -0.037766735051979805" rpy="3.14136036390978 1.5049109693635563 1.5705568956520668"/>
    <parent link="l_hand_pinkie_2"/>
    <child link="l_hand_pinkie_skin_10"/>
  </joint>
  <link name="l_hand_pinkie_skin_11"/>
  <joint name="l_hand_pinkie_skin_11_fixed_joint" type="fixed">
    <origin xyz="-0.003298840196892895 -0.0031311223894700813 -0.033280468459722046" rpy="4.4514986435780384e-5 1.2200949022586114 -1.5707621667995162"/>
    <parent link="l_hand_pinkie_2"/>
    <child link="l_hand_pinkie_skin_11"/>
  </joint>
  <link name="l_hand_pinkie_skin_2"/>
  <joint name="l_hand_pinkie_skin_2_fixed_joint" type="fixed">
    <origin xyz="1.1842435866243894e-6 -0.0037582416586290635 -0.0351920493944633" rpy="5.8367315429754e-5 1.305681332537708 -1.570747644146057"/>
    <parent link="l_hand_pinkie_2"/>
    <child link="l_hand_pinkie_skin_2"/>
  </joint>
  <link name="l_hand_pinkie_skin_3"/>
  <joint name="l_hand_pinkie_skin_3_fixed_joint" type="fixed">
    <origin xyz="0.0033012211432498564 -0.00408196622342738 -0.03776663411541853" rpy="3.14136036390978 1.5049109693635563 1.5705568956520668"/>
    <parent link="l_hand_pinkie_2"/>
    <child link="l_hand_pinkie_skin_3"/>
  </joint>
  <link name="l_hand_pinkie_skin_4"/>
  <joint name="l_hand_pinkie_skin_4_fixed_joint" type="fixed">
    <origin xyz="0.005930772745783179 -0.0011923660276871306 -0.037999909302654955" rpy="3.141572315440389 1.2994585118923023 2.7771283028717044"/>
    <parent link="l_hand_pinkie_2"/>
    <child link="l_hand_pinkie_skin_4"/>
  </joint>
  <link name="l_hand_pinkie_skin_5"/>
  <joint name="l_hand_pinkie_skin_5_fixed_joint" type="fixed">
    <origin xyz="1.2571376604118834e-6 -0.003484092168408337 -0.03982136610406428" rpy="3.1415596646367674 1.0887513294579219 1.570759451523612"/>
    <parent link="l_hand_pinkie_2"/>
    <child link="l_hand_pinkie_skin_5"/>
  </joint>
  <link name="l_hand_pinkie_skin_6"/>
  <joint name="l_hand_pinkie_skin_6_fixed_joint" type="fixed">
    <origin xyz="0.0033012995883024976 -0.00182882695396816 -0.04176958392088087" rpy="3.1415803523625088 0.7788281285900823 2.532051470238895"/>
    <parent link="l_hand_pinkie_2"/>
    <child link="l_hand_pinkie_skin_6"/>
  </joint>
  <link name="l_hand_pinkie_skin_7"/>
  <joint name="l_hand_pinkie_skin_7_fixed_joint" type="fixed">
    <origin xyz="1.3341394995113054e-6 -2.901846695293475e-4 -0.04325964089653633" rpy="3.141573850067606 0.6209480244661378 1.571193897169884"/>
    <parent link="l_hand_pinkie_2"/>
    <child link="l_hand_pinkie_skin_7"/>
  </joint>
  <link name="l_hand_pinkie_skin_8"/>
  <joint name="l_hand_pinkie_skin_8_fixed_joint" type="fixed">
    <origin xyz="-0.003298700410732769 -0.0018287764939896034 -0.041769684857442146" rpy="3.1415803529363586 0.7788030498279591 0.6095086111791652"/>
    <parent link="l_hand_pinkie_2"/>
    <child link="l_hand_pinkie_skin_8"/>
  </joint>
  <link name="l_hand_pinkie_skin_9"/>
  <joint name="l_hand_pinkie_skin_9_fixed_joint" type="fixed">
    <origin xyz="-0.005928279137036092 -0.0011922753598834768 -0.0380000906680969" rpy="3.14157231834453 1.2994299338602708 0.36440987468608"/>
    <parent link="l_hand_pinkie_2"/>
    <child link="l_hand_pinkie_skin_9"/>
  </joint>
  <link name="l_hand_ring_skin_0"/>
  <joint name="l_hand_ring_skin_0_fixed_joint" type="fixed">
    <origin xyz="6.938893903907228e-18 -0.0024339180582365616 -0.03140545777888881" rpy="5.692756367021836e-16 1.222505598669119 -1.5707963267948966"/>
    <parent link="l_hand_ring_2"/>
    <child link="l_hand_ring_skin_0"/>
  </joint>
  <link name="l_hand_ring_skin_1"/>
  <joint name="l_hand_ring_skin_1_fixed_joint" type="fixed">
    <origin xyz="0.0033000000000000095 -0.0031311476143919548 -0.033280418005286805" rpy="5.655225861137946e-16 1.2200949024613605 -1.5707963267948966"/>
    <parent link="l_hand_ring_2"/>
    <child link="l_hand_ring_skin_1"/>
  </joint>
  <link name="l_hand_ring_skin_10"/>
  <joint name="l_hand_ring_skin_10_fixed_joint" type="fixed">
    <origin xyz="-0.0033000000000000043 -0.004081940988398369 -0.037766684597957956" rpy="3.141592653589791 1.5049109712528765 1.5707963267948966"/>
    <parent link="l_hand_ring_2"/>
    <child link="l_hand_ring_skin_10"/>
  </joint>
  <link name="l_hand_ring_skin_11"/>
  <joint name="l_hand_ring_skin_11_fixed_joint" type="fixed">
    <origin xyz="-0.0032999999999999887 -0.003131147614391927 -0.03328041800528686" rpy="5.655225861137945e-16 1.2200949024613605 -1.5707963267948966"/>
    <parent link="l_hand_ring_2"/>
    <child link="l_hand_ring_skin_11"/>
  </joint>
  <link name="l_hand_ring_skin_2"/>
  <joint name="l_hand_ring_skin_2_fixed_joint" type="fixed">
    <origin xyz="-5.204170427930421e-18 -0.003758241653579991 -0.03519204940845888" rpy="6.885393175189842e-16 1.305681332851508 -1.5707963267948963"/>
    <parent link="l_hand_ring_2"/>
    <child link="l_hand_ring_skin_2"/>
  </joint>
  <link name="l_hand_ring_skin_3"/>
  <joint name="l_hand_ring_skin_3_fixed_joint" type="fixed">
    <origin xyz="0.003300000000000008 -0.004081940988398397 -0.037766684597957956" rpy="3.141592653589791 1.5049109712528765 1.5707963267948968"/>
    <parent link="l_hand_ring_2"/>
    <child link="l_hand_ring_skin_3"/>
  </joint>
  <link name="l_hand_ring_skin_4"/>
  <joint name="l_hand_ring_skin_4_fixed_joint" type="fixed">
    <origin xyz="0.005929525942276373 -0.0011923206886612359 -0.03799999999999992" rpy="3.141592653589792 1.299444222971361 2.7771555423255903"/>
    <parent link="l_hand_ring_2"/>
    <child link="l_hand_ring_skin_4"/>
  </joint>
  <link name="l_hand_ring_skin_5"/>
  <joint name="l_hand_ring_skin_5_fixed_joint" type="fixed">
    <origin xyz="6.938893903907228e-18 -0.00348409216335116 -0.03982136611863335" rpy="3.1415926535897927 1.088751329798359 1.5707963267948968"/>
    <parent link="l_hand_ring_2"/>
    <child link="l_hand_ring_skin_5"/>
  </joint>
  <link name="l_hand_ring_skin_6"/>
  <joint name="l_hand_ring_skin_6_fixed_joint" type="fixed">
    <origin xyz="0.003299999999999994 -0.0018288017188733685 -0.041769634404151934" rpy="3.1415926535897927 0.7788155893137829 2.5320677565811995"/>
    <parent link="l_hand_ring_2"/>
    <child link="l_hand_ring_skin_6"/>
  </joint>
  <link name="l_hand_ring_skin_7"/>
  <joint name="l_hand_ring_skin_7_fixed_joint" type="fixed">
    <origin xyz="1.9081958235744878e-17 -2.9018466437888413e-4 -0.04325964091188089" rpy="3.141592653589793 0.6209480183022733 1.5712124826321159"/>
    <parent link="l_hand_ring_2"/>
    <child link="l_hand_ring_skin_7"/>
  </joint>
  <link name="l_hand_ring_skin_8"/>
  <joint name="l_hand_ring_skin_8_fixed_joint" type="fixed">
    <origin xyz="-0.0032999999999999852 -0.0018288017188733685 -0.041769634404151934" rpy="-3.141592653589793 0.7788155893137823 0.6095248970085929"/>
    <parent link="l_hand_ring_2"/>
    <child link="l_hand_ring_skin_8"/>
  </joint>
  <link name="l_hand_ring_skin_9"/>
  <joint name="l_hand_ring_skin_9_fixed_joint" type="fixed">
    <origin xyz="-0.005929525942276356 -0.0011923206886611804 -0.03799999999999992" rpy="-3.1415926535897927 1.2994442229713594 0.3644371112642026"/>
    <parent link="l_hand_ring_2"/>
    <child link="l_hand_ring_skin_9"/>
  </joint>
  <link name="l_sole"/>
  <joint name="l_sole_fixed_joint" type="fixed">
    <origin xyz="0.059629999999999996 -1.3877787807814457e-17 -0.024299999999999877" rpy="0 1.5094274020956558e-31 0"/>
    <parent link="l_foot_rear"/>
    <child link="l_sole"/>
  </joint>
  <link name="l_hand_thumb_skin_0"/>
  <joint name="l_hand_thumb_skin_0_fixed_joint" type="fixed">
    <origin xyz="0.026405457778888957 -0.002433918058236617 5.551115123125783e-17" rpy="-1.5707963267948963 1.1102230246251565e-16 2.793301925464017"/>
    <parent link="l_hand_thumb_3"/>
    <child link="l_hand_thumb_skin_0"/>
  </joint>
  <link name="l_hand_thumb_skin_1"/>
  <joint name="l_hand_thumb_skin_1_fixed_joint" type="fixed">
    <origin xyz="0.028280418005286963 -0.0031311476143920103 0.0033000000000000806" rpy="-1.5707963267948961 -7.216449660063518e-16 -2.1816615649914324"/>
    <parent link="l_hand_thumb_3"/>
    <child link="l_hand_thumb_skin_1"/>
  </joint>
  <link name="l_hand_thumb_skin_10"/>
  <joint name="l_hand_thumb_skin_10_fixed_joint" type="fixed">
    <origin xyz="0.032766684597958076 -0.004081940988398508 -0.0032999999999999696" rpy="-1.5707963267948961 -5.551115123125783e-17 -3.075707298047779"/>
    <parent link="l_hand_thumb_3"/>
    <child link="l_hand_thumb_skin_10"/>
  </joint>
  <link name="l_hand_thumb_skin_11"/>
  <joint name="l_hand_thumb_skin_11_fixed_joint" type="fixed">
    <origin xyz="0.028280418005286963 -0.0031311476143919825 -0.0032999999999999696" rpy="-1.5707963267948961 -0 2.790891229256258"/>
    <parent link="l_hand_thumb_3"/>
    <child link="l_hand_thumb_skin_11"/>
  </joint>
  <link name="l_hand_thumb_skin_2"/>
  <joint name="l_hand_thumb_skin_2_fixed_joint" type="fixed">
    <origin xyz="0.030192049408458998 -0.0037582416535800467 0" rpy="-1.5707963267948961 -0 2.8764776596464054"/>
    <parent link="l_hand_thumb_3"/>
    <child link="l_hand_thumb_skin_2"/>
  </joint>
  <link name="l_hand_thumb_skin_3"/>
  <joint name="l_hand_thumb_skin_3_fixed_joint" type="fixed">
    <origin xyz="0.03276668459795809 -0.004081940988398536 0.003300000000000025" rpy="-1.5707963267948961 -7.216449660063518e-16 -2.1816615649914324"/>
    <parent link="l_hand_thumb_3"/>
    <child link="l_hand_thumb_skin_3"/>
  </joint>
  <link name="l_hand_thumb_skin_4"/>
  <joint name="l_hand_thumb_skin_4_fixed_joint" type="fixed">
    <origin xyz="0.03300000000000006 -0.0011923206886612636 0.005929525942276415" rpy="-3.1415926535897927 3.3306690738754696e-16 -3.1415926535883125"/>
    <parent link="l_hand_thumb_3"/>
    <child link="l_hand_thumb_skin_4"/>
  </joint>
  <link name="l_hand_thumb_skin_5"/>
  <joint name="l_hand_thumb_skin_5_fixed_joint" type="fixed">
    <origin xyz="0.034821366118633415 -0.0034840921633512156 8.326672684688674e-17" rpy="-1.5707963267948963 -2.220446049250313e-16 -2.6595476565932565"/>
    <parent link="l_hand_thumb_3"/>
    <child link="l_hand_thumb_skin_5"/>
  </joint>
  <link name="l_hand_thumb_skin_6"/>
  <joint name="l_hand_thumb_skin_6_fixed_joint" type="fixed">
    <origin xyz="0.036769634404151985 -0.0018288017188734795 0.003300000000000053" rpy="1.5707963267948968 -2.7755575615628914e-16 -2.399827721490722"/>
    <parent link="l_hand_thumb_3"/>
    <child link="l_hand_thumb_skin_6"/>
  </joint>
  <link name="l_hand_thumb_skin_7"/>
  <joint name="l_hand_thumb_skin_7_fixed_joint" type="fixed">
    <origin xyz="0.03825964091188104 -2.9018466437893964e-4 0" rpy="-1.570554204626614 -3.384708831138008e-4 -2.1917443860728234"/>
    <parent link="l_hand_thumb_3"/>
    <child link="l_hand_thumb_skin_7"/>
  </joint>
  <link name="l_hand_thumb_skin_8"/>
  <joint name="l_hand_thumb_skin_8_fixed_joint" type="fixed">
    <origin xyz="0.03676963440415201 -0.001828801718873424 -0.003299999999999942" rpy="-2.3592109405351698 0.6231239758157896 -2.6159603834403367"/>
    <parent link="l_hand_thumb_3"/>
    <child link="l_hand_thumb_skin_8"/>
  </joint>
  <link name="l_hand_thumb_skin_9"/>
  <joint name="l_hand_thumb_skin_9_fixed_joint" type="fixed">
    <origin xyz="0.03300000000000007 -0.0011923206886612636 -0.005929525942276359" rpy="-2.7645689049691455 0.25312544974719003 -3.042753660865159"/>
    <parent link="l_hand_thumb_3"/>
    <child link="l_hand_thumb_skin_9"/>
  </joint>
  <link name="r_hand_index_skin_0"/>
  <joint name="r_hand_index_skin_0_fixed_joint" type="fixed">
    <origin xyz="3.469446951953614e-17 -0.002433928982192385 -0.03140545693228214" rpy="2.8463754567347765e-16 1.2225052508328904 -1.5707963267948963"/>
    <parent link="r_hand_index_3"/>
    <child link="r_hand_index_skin_0"/>
  </joint>
  <link name="r_hand_index_skin_1"/>
  <joint name="r_hand_index_skin_1_fixed_joint" type="fixed">
    <origin xyz="0.0032999999999999974 -0.0031311591905268388 -0.033280416916158295" rpy="2.4236659217065896e-16 1.2200945546251307 -1.5707963267948963"/>
    <parent link="r_hand_index_3"/>
    <child link="r_hand_index_skin_1"/>
  </joint>
  <link name="r_hand_index_skin_10"/>
  <joint name="r_hand_index_skin_10_fixed_joint" type="fixed">
    <origin xyz="-0.0032999999999999696 -0.0040819541250192715 -0.03776668317810877" rpy="3.1415926535897922 1.5049113190891115 1.5707963267948952"/>
    <parent link="r_hand_index_3"/>
    <child link="r_hand_index_skin_10"/>
  </joint>
  <link name="r_hand_index_skin_11"/>
  <joint name="r_hand_index_skin_11_fixed_joint" type="fixed">
    <origin xyz="-0.0033000000000000043 -0.0031311591905267833 -0.033280416916158295" rpy="2.4236659217065896e-16 1.2200945546251307 -1.5707963267948963"/>
    <parent link="r_hand_index_3"/>
    <child link="r_hand_index_skin_11"/>
  </joint>
  <link name="r_hand_index_skin_2"/>
  <joint name="r_hand_index_skin_2_fixed_joint" type="fixed">
    <origin xyz="6.938893903907228e-18 -0.003758253894649538 -0.03519204810120419" rpy="3.177869701880381e-16 1.3056809850152777 -1.5707963267948961"/>
    <parent link="r_hand_index_3"/>
    <child link="r_hand_index_skin_2"/>
  </joint>
  <link name="r_hand_index_skin_3"/>
  <joint name="r_hand_index_skin_3_fixed_joint" type="fixed">
    <origin xyz="0.0033000000000000043 -0.004081954125019299 -0.03776668317810877" rpy="3.1415926535897922 1.5049113190891115 1.5707963267948952"/>
    <parent link="r_hand_index_3"/>
    <child link="r_hand_index_skin_3"/>
  </joint>
  <link name="r_hand_index_skin_4"/>
  <joint name="r_hand_index_skin_4_fixed_joint" type="fixed">
    <origin xyz="0.005929525942276359 -0.0011923339064377758 -0.03799999958526529" rpy="-3.1415914410880514 1.299444346948154 2.777156710461142"/>
    <parent link="r_hand_index_3"/>
    <child link="r_hand_index_skin_4"/>
  </joint>
  <link name="r_hand_index_skin_5"/>
  <joint name="r_hand_index_skin_5_fixed_joint" type="fixed">
    <origin xyz="6.938893903907228e-18 -0.003484106014664784 -0.03982136490673749" rpy="3.141592653589793 1.0887516776345891 1.5707963267948963"/>
    <parent link="r_hand_index_3"/>
    <child link="r_hand_index_skin_5"/>
  </joint>
  <link name="r_hand_index_skin_6"/>
  <joint name="r_hand_index_skin_6_fixed_joint" type="fixed">
    <origin xyz="0.0033000000000000043 -0.0018288162478654058 -0.04176963376802595" rpy="-3.141592252887904 0.7788157884423246 2.5320680380490246"/>
    <parent link="r_hand_index_3"/>
    <child link="r_hand_index_skin_6"/>
  </joint>
  <link name="r_hand_index_skin_7"/>
  <joint name="r_hand_index_skin_7_fixed_joint" type="fixed">
    <origin xyz="-2.7755575615628914e-17 -2.901997116492028e-4 -0.04325964081094158" rpy="-3.1415926534118155 0.6209483661384732 1.5712124827356644"/>
    <parent link="r_hand_index_3"/>
    <child link="r_hand_index_skin_7"/>
  </joint>
  <link name="r_hand_index_skin_8"/>
  <joint name="r_hand_index_skin_8_fixed_joint" type="fixed">
    <origin xyz="-0.0032999999999999835 -0.0018288162478654058 -0.04176963376802595" rpy="3.141592252887904 0.7788157884423246 0.6095246155407682"/>
    <parent link="r_hand_index_3"/>
    <child link="r_hand_index_skin_8"/>
  </joint>
  <link name="r_hand_index_skin_9"/>
  <joint name="r_hand_index_skin_9_fixed_joint" type="fixed">
    <origin xyz="-0.005929525942276352 -0.0011923339064378036 -0.03799999958526534" rpy="3.1415914410880514 1.2994443469481536 0.36443594312865046"/>
    <parent link="r_hand_index_3"/>
    <child link="r_hand_index_skin_9"/>
  </joint>
  <link name="r_hand_middle_skin_0"/>
  <joint name="r_hand_middle_skin_0_fixed_joint" type="fixed">
    <origin xyz="-2.0816681711721685e-17 -0.002433918058236506 -0.03140545777888887" rpy="-2.4397527287236403e-16 1.2225055986691193 -1.570796326794897"/>
    <parent link="r_hand_middle_2"/>
    <child link="r_hand_middle_skin_0"/>
  </joint>
  <link name="r_hand_middle_skin_1"/>
  <joint name="r_hand_middle_skin_1_fixed_joint" type="fixed">
    <origin xyz="0.003299999999999987 -0.0031311476143918993 -0.033280418005286916" rpy="-2.4236682262019717e-16 1.2200949024613599 -1.5707963267948972"/>
    <parent link="r_hand_middle_2"/>
    <child link="r_hand_middle_skin_1"/>
  </joint>
  <link name="r_hand_middle_skin_10"/>
  <joint name="r_hand_middle_skin_10_fixed_joint" type="fixed">
    <origin xyz="-0.0033000000000000113 -0.004081940988398369 -0.03776668459795801" rpy="-3.141592653589792 1.5049109712528799 1.5707963267948983"/>
    <parent link="r_hand_middle_2"/>
    <child link="r_hand_middle_skin_10"/>
  </joint>
  <link name="r_hand_middle_skin_11"/>
  <joint name="r_hand_middle_skin_11_fixed_joint" type="fixed">
    <origin xyz="-0.003300000000000025 -0.0031311476143918715 -0.03328041800528686" rpy="-2.4236682262019727e-16 1.2200949024613594 -1.5707963267948972"/>
    <parent link="r_hand_middle_2"/>
    <child link="r_hand_middle_skin_11"/>
  </joint>
  <link name="r_hand_middle_skin_2"/>
  <joint name="r_hand_middle_skin_2_fixed_joint" type="fixed">
    <origin xyz="-4.5102810375396984e-17 -0.003758241653579991 -0.035192049408458936" rpy="-3.177873773164535e-16 1.3056813328515076 -1.5707963267948972"/>
    <parent link="r_hand_middle_2"/>
    <child link="r_hand_middle_skin_2"/>
  </joint>
  <link name="r_hand_middle_skin_3"/>
  <joint name="r_hand_middle_skin_3_fixed_joint" type="fixed">
    <origin xyz="0.003299999999999942 -0.004081940988398425 -0.03776668459795801" rpy="-3.141592653589792 1.5049109712528799 1.5707963267948986"/>
    <parent link="r_hand_middle_2"/>
    <child link="r_hand_middle_skin_3"/>
  </joint>
  <link name="r_hand_middle_skin_4"/>
  <joint name="r_hand_middle_skin_4_fixed_joint" type="fixed">
    <origin xyz="0.005929525942276321 -0.001192320688661208 -0.03799999999999998" rpy="-3.141592653589792 1.2994442229713614 2.7771555423255876"/>
    <parent link="r_hand_middle_2"/>
    <child link="r_hand_middle_skin_4"/>
  </joint>
  <link name="r_hand_middle_skin_5"/>
  <joint name="r_hand_middle_skin_5_fixed_joint" type="fixed">
    <origin xyz="-2.42861286636753e-17 -0.0034840921633511046 -0.03982136611863335" rpy="-3.141592653589793 1.08875132979836 1.5707963267948968"/>
    <parent link="r_hand_middle_2"/>
    <child link="r_hand_middle_skin_5"/>
  </joint>
  <link name="r_hand_middle_skin_6"/>
  <joint name="r_hand_middle_skin_6_fixed_joint" type="fixed">
    <origin xyz="0.0032999999999999766 -0.0018288017188733963 -0.041769634404151934" rpy="-3.1415926535897927 0.778815589313783 2.532067756581199"/>
    <parent link="r_hand_middle_2"/>
    <child link="r_hand_middle_skin_6"/>
  </joint>
  <link name="r_hand_middle_skin_7"/>
  <joint name="r_hand_middle_skin_7_fixed_joint" type="fixed">
    <origin xyz="-5.204170427930421e-17 -2.9018466437888413e-4 -0.04325964091188089" rpy="-3.141592653589793 0.6209480183022739 1.5712124826321157"/>
    <parent link="r_hand_middle_2"/>
    <child link="r_hand_middle_skin_7"/>
  </joint>
  <link name="r_hand_middle_skin_8"/>
  <joint name="r_hand_middle_skin_8_fixed_joint" type="fixed">
    <origin xyz="-0.0033000000000000217 -0.0018288017188733408 -0.04176963440415199" rpy="3.1415926535897927 0.778815589313783 0.6095248970085936"/>
    <parent link="r_hand_middle_2"/>
    <child link="r_hand_middle_skin_8"/>
  </joint>
  <link name="r_hand_middle_skin_9"/>
  <joint name="r_hand_middle_skin_9_fixed_joint" type="fixed">
    <origin xyz="-0.00592952594227638 -0.0011923206886611526 -0.03799999999999998" rpy="3.141592653589792 1.299444222971361 0.3644371112642049"/>
    <parent link="r_hand_middle_2"/>
    <child link="r_hand_middle_skin_9"/>
  </joint>
  <link name="r_hand_pinkie_skin_0"/>
  <joint name="r_hand_pinkie_skin_0_fixed_joint" type="fixed">
    <origin xyz="0 -0.0024339180582408637 -0.03140545777888881" rpy="2.6430654561173425e-16 1.2225055986691284 -1.5707963267948966"/>
    <parent link="r_hand_pinkie_2"/>
    <child link="r_hand_pinkie_skin_0"/>
  </joint>
  <link name="r_hand_pinkie_skin_1"/>
  <joint name="r_hand_pinkie_skin_1_fixed_joint" type="fixed">
    <origin xyz="0.0033000000000000113 -0.0031311476143962846 -0.03328041800528675" rpy="1.8177511696515236e-16 1.2200949024613699 -1.5707963267948966"/>
    <parent link="r_hand_pinkie_2"/>
    <child link="r_hand_pinkie_skin_1"/>
  </joint>
  <link name="r_hand_pinkie_skin_10"/>
  <joint name="r_hand_pinkie_skin_10_fixed_joint" type="fixed">
    <origin xyz="-0.0032999999999999974 -0.004081940988402782 -0.037766684597957845" rpy="3.1415926535897922 1.5049109712528714 1.5707963267948974"/>
    <parent link="r_hand_pinkie_2"/>
    <child link="r_hand_pinkie_skin_10"/>
  </joint>
  <link name="r_hand_pinkie_skin_11"/>
  <joint name="r_hand_pinkie_skin_11_fixed_joint" type="fixed">
    <origin xyz="-0.0032999999999999904 -0.0031311476143963124 -0.033280418005286805" rpy="1.8177511696515236e-16 1.2200949024613699 -1.5707963267948966"/>
    <parent link="r_hand_pinkie_2"/>
    <child link="r_hand_pinkie_skin_11"/>
  </joint>
  <link name="r_hand_pinkie_skin_2"/>
  <joint name="r_hand_pinkie_skin_2_fixed_joint" type="fixed">
    <origin xyz="0 -0.003758241653584321 -0.03519204940845877" rpy="3.17787377316464e-16 1.3056813328515169 -1.5707963267948966"/>
    <parent link="r_hand_pinkie_2"/>
    <child link="r_hand_pinkie_skin_2"/>
  </joint>
  <link name="r_hand_pinkie_skin_3"/>
  <joint name="r_hand_pinkie_skin_3_fixed_joint" type="fixed">
    <origin xyz="0.003300000000000018 -0.004081940988402699 -0.0377666845979579" rpy="3.1415926535897922 1.5049109712528714 1.5707963267948977"/>
    <parent link="r_hand_pinkie_2"/>
    <child link="r_hand_pinkie_skin_3"/>
  </joint>
  <link name="r_hand_pinkie_skin_4"/>
  <joint name="r_hand_pinkie_skin_4_fixed_joint" type="fixed">
    <origin xyz="0.005929525942276366 -0.0011923206886655102 -0.03799999999999981" rpy="3.1415926535897625 1.2994442229713585 2.777155542325558"/>
    <parent link="r_hand_pinkie_2"/>
    <child link="r_hand_pinkie_skin_4"/>
  </joint>
  <link name="r_hand_pinkie_skin_5"/>
  <joint name="r_hand_pinkie_skin_5_fixed_joint" type="fixed">
    <origin xyz="1.3877787807814457e-17 -0.00348409216335549 -0.03982136611863324" rpy="3.141592653589793 1.0887513297983513 1.5707963267948968"/>
    <parent link="r_hand_pinkie_2"/>
    <child link="r_hand_pinkie_skin_5"/>
  </joint>
  <link name="r_hand_pinkie_skin_6"/>
  <joint name="r_hand_pinkie_skin_6_fixed_joint" type="fixed">
    <origin xyz="0.0033000000000000043 -0.0018288017188776429 -0.04176963440415177" rpy="3.1415926535897833 0.778815589313778 2.532067756581192"/>
    <parent link="r_hand_pinkie_2"/>
    <child link="r_hand_pinkie_skin_6"/>
  </joint>
  <link name="r_hand_pinkie_skin_7"/>
  <joint name="r_hand_pinkie_skin_7_fixed_joint" type="fixed">
    <origin xyz="-6.938893903907228e-18 -2.901846643830752e-4 -0.04325964091188084" rpy="3.141592653589793 0.620948018302265 1.5712124826321159"/>
    <parent link="r_hand_pinkie_2"/>
    <child link="r_hand_pinkie_skin_7"/>
  </joint>
  <link name="r_hand_pinkie_skin_8"/>
  <joint name="r_hand_pinkie_skin_8_fixed_joint" type="fixed">
    <origin xyz="-0.0032999999999999904 -0.0018288017188776429 -0.04176963440415177" rpy="-3.1415926535897833 0.7788155893137778 0.6095248970086008"/>
    <parent link="r_hand_pinkie_2"/>
    <child link="r_hand_pinkie_skin_8"/>
  </joint>
  <link name="r_hand_pinkie_skin_9"/>
  <joint name="r_hand_pinkie_skin_9_fixed_joint" type="fixed">
    <origin xyz="-0.005929525942276352 -0.0011923206886654825 -0.03799999999999981" rpy="-3.141592653589763 1.299444222971359 0.3644371112642355"/>
    <parent link="r_hand_pinkie_2"/>
    <child link="r_hand_pinkie_skin_9"/>
  </joint>
  <link name="r_hand_ring_skin_0"/>
  <joint name="r_hand_ring_skin_0_fixed_joint" type="fixed">
    <origin xyz="3.469446951953614e-18 -0.0024339182743748355 -0.03140545776213821" rpy="1.4231890647798227e-16 1.222505591786931 -1.5707963267948966"/>
    <parent link="r_hand_ring_2"/>
    <child link="r_hand_ring_skin_0"/>
  </joint>
  <link name="r_hand_ring_skin_1"/>
  <joint name="r_hand_ring_skin_1_fixed_joint" type="fixed">
    <origin xyz="0.0032999999999999974 -0.0031311478434340456 -0.03328041798373782" rpy="1.4138064386867392e-16 1.2200948955791715 -1.5707963267948966"/>
    <parent link="r_hand_ring_2"/>
    <child link="r_hand_ring_skin_1"/>
  </joint>
  <link name="r_hand_ring_skin_10"/>
  <joint name="r_hand_ring_skin_10_fixed_joint" type="fixed">
    <origin xyz="-0.0033000000000000113 -0.004081941248315957 -0.03776668456986537" rpy="3.1415926535897927 1.5049109781350702 1.5707963267948977"/>
    <parent link="r_hand_ring_2"/>
    <child link="r_hand_ring_skin_10"/>
  </joint>
  <link name="r_hand_ring_skin_11"/>
  <joint name="r_hand_ring_skin_11_fixed_joint" type="fixed">
    <origin xyz="-0.0033000000000000026 -0.0031311478434340456 -0.033280417983737876" rpy="1.4138064386867392e-16 1.2200948955791715 -1.5707963267948966"/>
    <parent link="r_hand_ring_2"/>
    <child link="r_hand_ring_skin_11"/>
  </joint>
  <link name="r_hand_ring_skin_2"/>
  <joint name="r_hand_ring_skin_2_fixed_joint" type="fixed">
    <origin xyz="1.214306433183765e-17 -0.0037582418957782804 -0.035192049382594015" rpy="1.324114038587985e-16 1.305681325969319 -1.5707963267948966"/>
    <parent link="r_hand_ring_2"/>
    <child link="r_hand_ring_skin_2"/>
  </joint>
  <link name="r_hand_ring_skin_3"/>
  <joint name="r_hand_ring_skin_3_fixed_joint" type="fixed">
    <origin xyz="0.003299999999999987 -0.004081941248315901 -0.03776668456986537" rpy="3.1415926535897927 1.5049109781350702 1.5707963267948974"/>
    <parent link="r_hand_ring_2"/>
    <child link="r_hand_ring_skin_3"/>
  </joint>
  <link name="r_hand_ring_skin_4"/>
  <joint name="r_hand_ring_skin_4_fixed_joint" type="fixed">
    <origin xyz="0.005929525942276352 -0.0011923209501843446 -0.03799999999179421" rpy="-3.1415926295995895 1.2994442254243346 2.777155565437974"/>
    <parent link="r_hand_ring_2"/>
    <child link="r_hand_ring_skin_4"/>
  </joint>
  <link name="r_hand_ring_skin_5"/>
  <joint name="r_hand_ring_skin_5_fixed_joint" type="fixed">
    <origin xyz="-1.214306433183765e-17 -0.0034840924374092974 -0.03982136609465514" rpy="3.141592653589793 1.0887513366805477 1.570796326794897"/>
    <parent link="r_hand_ring_2"/>
    <child link="r_hand_ring_skin_5"/>
  </joint>
  <link name="r_hand_ring_skin_6"/>
  <joint name="r_hand_ring_skin_6_fixed_joint" type="fixed">
    <origin xyz="0.0032999999999999974 -0.0018288020063398913 -0.04176963439156578" rpy="-3.141592645661621 0.7788155932536848 2.53206776215024"/>
    <parent link="r_hand_ring_2"/>
    <child link="r_hand_ring_skin_6"/>
  </joint>
  <link name="r_hand_ring_skin_7"/>
  <joint name="r_hand_ring_skin_7_fixed_joint" type="fixed">
    <origin xyz="3.469446951953614e-18 -2.901849620998431e-4 -0.04325964090988388" rpy="-3.141592653586272 0.6209480251844615 1.5712124826341647"/>
    <parent link="r_hand_ring_2"/>
    <child link="r_hand_ring_skin_7"/>
  </joint>
  <link name="r_hand_ring_skin_8"/>
  <joint name="r_hand_ring_skin_8_fixed_joint" type="fixed">
    <origin xyz="-0.0032999999999999956 -0.0018288020063398913 -0.04176963439156589" rpy="3.141592645661621 0.7788155932536843 0.6095248914395535"/>
    <parent link="r_hand_ring_2"/>
    <child link="r_hand_ring_skin_8"/>
  </joint>
  <link name="r_hand_ring_skin_9"/>
  <joint name="r_hand_ring_skin_9_fixed_joint" type="fixed">
    <origin xyz="-0.0059295259422763695 -0.0011923209501843723 -0.03799999999179421" rpy="3.141592629599589 1.2994442254243332 0.36443708815181947"/>
    <parent link="r_hand_ring_2"/>
    <child link="r_hand_ring_skin_9"/>
  </joint>
  <link name="r_sole"/>
  <joint name="r_sole_fixed_joint" type="fixed">
    <origin xyz="0.05963 -1.3877787807814457e-17 -0.02429999999999999" rpy="0 3.1371750050201436e-30 0"/>
    <parent link="r_foot_rear"/>
    <child link="r_sole"/>
  </joint>
  <link name="r_hand_thumb_skin_0"/>
  <joint name="r_hand_thumb_skin_0_fixed_joint" type="fixed">
    <origin xyz="0.02640545777888894 -0.002433918058236617 0" rpy="-1.5707963267948961 2.220446049250313e-16 2.793301925464017"/>
    <parent link="r_hand_thumb_3"/>
    <child link="r_hand_thumb_skin_0"/>
  </joint>
  <link name="r_hand_thumb_skin_1"/>
  <joint name="r_hand_thumb_skin_1_fixed_joint" type="fixed">
    <origin xyz="0.028280418005286932 -0.0031311476143919825 0.003300000000000025" rpy="-1.570796326794896 -7.216449660063518e-16 -2.1816615649914324"/>
    <parent link="r_hand_thumb_3"/>
    <child link="r_hand_thumb_skin_1"/>
  </joint>
  <link name="r_hand_thumb_skin_10"/>
  <joint name="r_hand_thumb_skin_10_fixed_joint" type="fixed">
    <origin xyz="0.03276668459795807 -0.00408194098839848 -0.003300000000000025" rpy="-1.5707963267948961 5.551115123125783e-17 -3.075707298047779"/>
    <parent link="r_hand_thumb_3"/>
    <child link="r_hand_thumb_skin_10"/>
  </joint>
  <link name="r_hand_thumb_skin_11"/>
  <joint name="r_hand_thumb_skin_11_fixed_joint" type="fixed">
    <origin xyz="0.028280418005286953 -0.0031311476143919825 -0.0032999999999999974" rpy="-1.5707963267948961 1.6653345369377348e-16 2.790891229256258"/>
    <parent link="r_hand_thumb_3"/>
    <child link="r_hand_thumb_skin_11"/>
  </joint>
  <link name="r_hand_thumb_skin_2"/>
  <joint name="r_hand_thumb_skin_2_fixed_joint" type="fixed">
    <origin xyz="0.030192049408458994 -0.003758241653580019 0" rpy="-1.5707963267948961 2.7755575615628914e-16 2.8764776596464054"/>
    <parent link="r_hand_thumb_3"/>
    <child link="r_hand_thumb_skin_2"/>
  </joint>
  <link name="r_hand_thumb_skin_3"/>
  <joint name="r_hand_thumb_skin_3_fixed_joint" type="fixed">
    <origin xyz="0.03276668459795803 -0.004081940988398508 0.0032999999999999974" rpy="-1.570796326794896 -8.326672684688674e-16 -2.1816615649914324"/>
    <parent link="r_hand_thumb_3"/>
    <child link="r_hand_thumb_skin_3"/>
  </joint>
  <link name="r_hand_thumb_skin_4"/>
  <joint name="r_hand_thumb_skin_4_fixed_joint" type="fixed">
    <origin xyz="0.03300000000000006 -0.0011923206886612636 0.005929525942276415" rpy="-3.1415926535897927 2.220446049250313e-16 -3.1415926535883125"/>
    <parent link="r_hand_thumb_3"/>
    <child link="r_hand_thumb_skin_4"/>
  </joint>
  <link name="r_hand_thumb_skin_5"/>
  <joint name="r_hand_thumb_skin_5_fixed_joint" type="fixed">
    <origin xyz="0.03482136611863341 -0.0034840921633512434 0" rpy="-1.5707963267948961 -1.6653345369377348e-16 -2.659547656593256"/>
    <parent link="r_hand_thumb_3"/>
    <child link="r_hand_thumb_skin_5"/>
  </joint>
  <link name="r_hand_thumb_skin_6"/>
  <joint name="r_hand_thumb_skin_6_fixed_joint" type="fixed">
    <origin xyz="0.036769634404151964 -0.0018288017188734518 0.0032999999999999974" rpy="1.570796326794897 -2.220446049250313e-16 -2.399827721490722"/>
    <parent link="r_hand_thumb_3"/>
    <child link="r_hand_thumb_skin_6"/>
  </joint>
  <link name="r_hand_thumb_skin_7"/>
  <joint name="r_hand_thumb_skin_7_fixed_joint" type="fixed">
    <origin xyz="0.03825964091188099 -2.901846643789119e-4 0" rpy="-1.5705542046266139 -3.3847088311368976e-4 -2.191744386072823"/>
    <parent link="r_hand_thumb_3"/>
    <child link="r_hand_thumb_skin_7"/>
  </joint>
  <link name="r_hand_thumb_skin_8"/>
  <joint name="r_hand_thumb_skin_8_fixed_joint" type="fixed">
    <origin xyz="0.036769634404152 -0.0018288017188734518 -0.003300000000000025" rpy="-2.3592109405351698 0.6231239758157898 -2.6159603834403367"/>
    <parent link="r_hand_thumb_3"/>
    <child link="r_hand_thumb_skin_8"/>
  </joint>
  <link name="r_hand_thumb_skin_9"/>
  <joint name="r_hand_thumb_skin_9_fixed_joint" type="fixed">
    <origin xyz="0.03300000000000001 -0.0011923206886612636 -0.005929525942276359" rpy="-2.7645689049691455 0.25312544974719 -3.042753660865159"/>
    <parent link="r_hand_thumb_3"/>
    <child link="r_hand_thumb_skin_9"/>
  </joint>
  <link name="waist_imu_0"/>
  <joint name="waist_imu_0_fixed_joint" type="fixed">
    <origin xyz="0.0606 -0.00639428 0.01745" rpy="1.5708 -0.000105208 -1.5708"/>
    <parent link="torso_1"/>
    <child link="waist_imu_0"/>
    <dynamics damping="0.1"/>
  </joint>
  <gazebo>
    <plugin name="ergocub_yarp_gazebo_plugin_IMU" filename="libgazebo_yarp_imu.so">
      <yarpConfigurationFile>model://conf/gazebo_ergocub_waist_inertial.ini</yarpConfigurationFile>
    </plugin>
  </gazebo>
  <gazebo reference="torso_1">
    <sensor name="waist_imu_0" type="imu">
      <always_on>1</always_on>
      <update_rate>100</update_rate>
      <pose>0.0606 -0.00639428 0.01745 1.5708 -0.000105208 -1.5708</pose>
      <plugin name="ergocub_yarp_gazebo_plugin_IMU" filename="libgazebo_yarp_imu.so">
        <yarpConfigurationFile>model://conf/gazebo_ergocub_waist_inertial.ini</yarpConfigurationFile>
      </plugin>
    </sensor>
  </gazebo>
  <gazebo>
    <plugin name="gzyarp::Imu" filename="gz-sim-yarp-imu-system">
      <yarpConfigurationFile>model://conf/gazebo_ergocub_waist_inertial.ini</yarpConfigurationFile>
    </plugin>
  </gazebo>
  <sensor name="waist_imu_0" type="accelerometer">
    <parent link="torso_1"/>
    <origin xyz="0.0606 -0.00639428 0.01745" rpy="1.5708 -0.000105208 -1.5708"/>
  </sensor>
  <link name="base_link"/>
  <joint name="base_link_fixed_joint" type="fixed">
    <origin xyz="0 0 0" rpy="0 -0 0"/>
    <axis xyz="0 0 0"/>
    <parent link="root_link"/>
    <child link="base_link"/>
  </joint>
  <gazebo reference="r_arm_ft_sensor">
    <preserveFixedJoint>true</preserveFixedJoint>
    <!-- For compatibility with SDFormat < 4.4 -->
    <disableFixedJointLumping>true</disableFixedJointLumping>
  </gazebo>
  <gazebo reference="l_arm_ft_sensor">
    <preserveFixedJoint>true</preserveFixedJoint>
    <!-- For compatibility with SDFormat < 4.4 -->
    <disableFixedJointLumping>true</disableFixedJointLumping>
  </gazebo>
  <gazebo>
    <plugin name="gzyarp::ForceTorque" filename="gz-sim-yarp-forcetorque-system">
      <yarpConfigurationFile>model://conf/FT/gazebo_ergocub_left_arm_ft.ini</yarpConfigurationFile>
    </plugin>
  </gazebo>
  <gazebo>
    <plugin name="gzyarp::ForceTorque" filename="gz-sim-yarp-forcetorque-system">
      <yarpConfigurationFile>model://conf/FT/gazebo_ergocub_right_arm_ft.ini</yarpConfigurationFile>
    </plugin>
  </gazebo>
  <gazebo>
    <plugin name="gzyarp::Imu" filename="gz-sim-yarp-imu-system">
      <yarpConfigurationFile>model://conf/gazebo_ergocub_l_arm_ft_sensor_inertial.ini</yarpConfigurationFile>
    </plugin>
  </gazebo>
  <gazebo>
    <plugin name="gzyarp::Imu" filename="gz-sim-yarp-imu-system">
      <yarpConfigurationFile>model://conf/gazebo_ergocub_r_arm_ft_sensor_inertial.ini</yarpConfigurationFile>
    </plugin>
  </gazebo>
  <gazebo>
    <plugin name="controlboard_torso" filename="libgazebo_yarp_controlboard.so">
      <yarpConfigurationFile>model://conf/gazebo_ergocub_torso.ini</yarpConfigurationFile>
    </plugin>
  </gazebo>
  <gazebo>
    <plugin name="gzyarp::ControlBoard" filename="gz-sim-yarp-controlboard-system">
      <yarpConfigurationFile>model://conf/gazebo_ergocub_torso.ini</yarpConfigurationFile>
    </plugin>
  </gazebo>
  <gazebo reference="torso_pitch">
    <implicitSpringDamper>1</implicitSpringDamper>
  </gazebo>
  <gazebo reference="torso_roll">
    <implicitSpringDamper>1</implicitSpringDamper>
  </gazebo>
  <gazebo reference="torso_yaw">
    <implicitSpringDamper>1</implicitSpringDamper>
  </gazebo>
  <gazebo reference="r_shoulder_pitch">
    <implicitSpringDamper>1</implicitSpringDamper>
  </gazebo>
  <gazebo reference="r_shoulder_roll">
    <implicitSpringDamper>1</implicitSpringDamper>
  </gazebo>
  <gazebo reference="r_shoulder_yaw">
    <implicitSpringDamper>1</implicitSpringDamper>
  </gazebo>
  <gazebo reference="l_shoulder_pitch">
    <implicitSpringDamper>1</implicitSpringDamper>
  </gazebo>
  <gazebo reference="l_shoulder_roll">
    <implicitSpringDamper>1</implicitSpringDamper>
  </gazebo>
  <gazebo reference="l_shoulder_yaw">
    <implicitSpringDamper>1</implicitSpringDamper>
  </gazebo>
  <gazebo reference="l_leg_ft_sensor">
    <preserveFixedJoint>true</preserveFixedJoint>
    <!-- For compatibility with SDFormat < 4.4 -->
    <disableFixedJointLumping>true</disableFixedJointLumping>
  </gazebo>
  <gazebo reference="l_foot_front_ft_sensor">
    <preserveFixedJoint>true</preserveFixedJoint>
    <!-- For compatibility with SDFormat < 4.4 -->
    <disableFixedJointLumping>true</disableFixedJointLumping>
  </gazebo>
  <gazebo reference="l_foot_rear_ft_sensor">
    <preserveFixedJoint>true</preserveFixedJoint>
    <!-- For compatibility with SDFormat < 4.4 -->
    <disableFixedJointLumping>true</disableFixedJointLumping>
  </gazebo>
  <gazebo reference="l_foot_front">
    <collision>
      <surface>
        <bounce>
          <restitution_coefficient>0</restitution_coefficient>
          <threshold>100000</threshold>
        </bounce>
      </surface>
    </collision>
    <maxContacts>4</maxContacts>
    <kp>18000000</kp>
    <kd>100</kd>
    <maxVel>100</maxVel>
    <minDepth>0.0001</minDepth>
    <mu1>1</mu1>
    <mu2>1</mu2>
    <fdir1>0 0 0</fdir1>
  </gazebo>
  <gazebo reference="l_foot_rear">
    <collision>
      <surface>
        <bounce>
          <restitution_coefficient>0</restitution_coefficient>
          <threshold>100000</threshold>
        </bounce>
      </surface>
    </collision>
    <maxContacts>4</maxContacts>
    <kp>18000000</kp>
    <kd>100</kd>
    <maxVel>100</maxVel>
    <minDepth>0.0001</minDepth>
    <mu1>1</mu1>
    <mu2>1</mu2>
    <fdir1>0 0 0</fdir1>
  </gazebo>
  <gazebo>
    <plugin name="gzyarp::ForceTorque" filename="gz-sim-yarp-forcetorque-system">
      <yarpConfigurationFile>model://conf/FT/gazebo_ergocub_left_leg_ft.ini</yarpConfigurationFile>
    </plugin>
  </gazebo>
  <gazebo>
    <plugin name="gzyarp::ForceTorque" filename="gz-sim-yarp-forcetorque-system">
      <yarpConfigurationFile>model://conf/FT/gazebo_ergocub_left_foot_front_ft.ini</yarpConfigurationFile>
    </plugin>
  </gazebo>
  <gazebo>
    <plugin name="gzyarp::ForceTorque" filename="gz-sim-yarp-forcetorque-system">
      <yarpConfigurationFile>model://conf/FT/gazebo_ergocub_left_foot_rear_ft.ini</yarpConfigurationFile>
    </plugin>
  </gazebo>
  <gazebo>
    <plugin name="gzyarp::Imu" filename="gz-sim-yarp-imu-system">
      <yarpConfigurationFile>model://conf/gazebo_ergocub_l_foot_front_ft_sensor_inertial.ini</yarpConfigurationFile>
    </plugin>
  </gazebo>
  <gazebo>
    <plugin name="gzyarp::Imu" filename="gz-sim-yarp-imu-system">
      <yarpConfigurationFile>model://conf/gazebo_ergocub_l_foot_rear_ft_sensor_inertial.ini</yarpConfigurationFile>
    </plugin>
  </gazebo>
  <gazebo>
    <plugin name="gzyarp::Imu" filename="gz-sim-yarp-imu-system">
      <yarpConfigurationFile>model://conf/gazebo_ergocub_l_leg_ft_sensor_inertial.ini</yarpConfigurationFile>
    </plugin>
  </gazebo>
  <gazebo>
    <plugin name="controlboard_left_leg" filename="libgazebo_yarp_controlboard.so">
      <yarpConfigurationFile>model://conf/gazebo_ergocub_left_leg.ini</yarpConfigurationFile>
    </plugin>
  </gazebo>
  <gazebo>
    <plugin name="gzyarp::ControlBoard" filename="gz-sim-yarp-controlboard-system">
      <yarpConfigurationFile>model://conf/gazebo_ergocub_left_leg.ini</yarpConfigurationFile>
    </plugin>
  </gazebo>
  <gazebo reference="l_hip_pitch">
    <implicitSpringDamper>1</implicitSpringDamper>
  </gazebo>
  <gazebo reference="l_hip_roll">
    <implicitSpringDamper>1</implicitSpringDamper>
  </gazebo>
  <gazebo reference="l_hip_yaw">
    <implicitSpringDamper>1</implicitSpringDamper>
  </gazebo>
  <gazebo reference="l_knee">
    <implicitSpringDamper>1</implicitSpringDamper>
  </gazebo>
  <gazebo reference="l_ankle_pitch">
    <implicitSpringDamper>1</implicitSpringDamper>
  </gazebo>
  <gazebo reference="l_ankle_roll">
    <implicitSpringDamper>1</implicitSpringDamper>
  </gazebo>
  <gazebo reference="r_leg_ft_sensor">
    <preserveFixedJoint>true</preserveFixedJoint>
    <!-- For compatibility with SDFormat < 4.4 -->
    <disableFixedJointLumping>true</disableFixedJointLumping>
  </gazebo>
  <gazebo reference="r_foot_front_ft_sensor">
    <preserveFixedJoint>true</preserveFixedJoint>
    <!-- For compatibility with SDFormat < 4.4 -->
    <disableFixedJointLumping>true</disableFixedJointLumping>
  </gazebo>
  <gazebo reference="r_foot_rear_ft_sensor">
    <preserveFixedJoint>true</preserveFixedJoint>
    <!-- For compatibility with SDFormat < 4.4 -->
    <disableFixedJointLumping>true</disableFixedJointLumping>
  </gazebo>
  <gazebo reference="r_foot_front">
    <collision>
      <surface>
        <bounce>
          <restitution_coefficient>0</restitution_coefficient>
          <threshold>100000</threshold>
        </bounce>
      </surface>
    </collision>
    <maxContacts>4</maxContacts>
    <kp>18000000</kp>
    <kd>100</kd>
    <maxVel>100</maxVel>
    <minDepth>0.0001</minDepth>
    <mu1>1</mu1>
    <mu2>1</mu2>
    <fdir1>0 0 0</fdir1>
  </gazebo>
  <gazebo reference="r_foot_rear">
    <collision>
      <surface>
        <bounce>
          <restitution_coefficient>0</restitution_coefficient>
          <threshold>100000</threshold>
        </bounce>
      </surface>
    </collision>
    <maxContacts>4</maxContacts>
    <kp>18000000</kp>
    <kd>100</kd>
    <maxVel>100</maxVel>
    <minDepth>0.0001</minDepth>
    <mu1>1</mu1>
    <mu2>1</mu2>
    <fdir1>0 0 0</fdir1>
  </gazebo>
  <gazebo>
    <plugin name="gzyarp::ForceTorque" filename="gz-sim-yarp-forcetorque-system">
      <yarpConfigurationFile>model://conf/FT/gazebo_ergocub_right_leg_ft.ini</yarpConfigurationFile>
    </plugin>
  </gazebo>
  <gazebo>
    <plugin name="gzyarp::ForceTorque" filename="gz-sim-yarp-forcetorque-system">
      <yarpConfigurationFile>model://conf/FT/gazebo_ergocub_right_foot_front_ft.ini</yarpConfigurationFile>
    </plugin>
  </gazebo>
  <gazebo>
    <plugin name="gzyarp::ForceTorque" filename="gz-sim-yarp-forcetorque-system">
      <yarpConfigurationFile>model://conf/FT/gazebo_ergocub_right_foot_rear_ft.ini</yarpConfigurationFile>
    </plugin>
  </gazebo>
  <gazebo>
    <plugin name="gzyarp::Imu" filename="gz-sim-yarp-imu-system">
      <yarpConfigurationFile>model://conf/gazebo_ergocub_r_foot_front_ft_sensor_inertial.ini</yarpConfigurationFile>
    </plugin>
  </gazebo>
  <gazebo>
    <plugin name="gzyarp::Imu" filename="gz-sim-yarp-imu-system">
      <yarpConfigurationFile>model://conf/gazebo_ergocub_r_foot_rear_ft_sensor_inertial.ini</yarpConfigurationFile>
    </plugin>
  </gazebo>
  <gazebo>
    <plugin name="gzyarp::Imu" filename="gz-sim-yarp-imu-system">
      <yarpConfigurationFile>model://conf/gazebo_ergocub_r_leg_ft_sensor_inertial.ini</yarpConfigurationFile>
    </plugin>
  </gazebo>
  <gazebo>
    <plugin name="controlboard_right_leg" filename="libgazebo_yarp_controlboard.so">
      <yarpConfigurationFile>model://conf/gazebo_ergocub_right_leg.ini</yarpConfigurationFile>
    </plugin>
  </gazebo>
  <gazebo>
    <plugin name="gzyarp::ControlBoard" filename="gz-sim-yarp-controlboard-system">
      <yarpConfigurationFile>model://conf/gazebo_ergocub_right_leg.ini</yarpConfigurationFile>
    </plugin>
  </gazebo>
  <gazebo reference="r_hip_pitch">
    <implicitSpringDamper>1</implicitSpringDamper>
  </gazebo>
  <gazebo reference="r_hip_roll">
    <implicitSpringDamper>1</implicitSpringDamper>
  </gazebo>
  <gazebo reference="r_hip_yaw">
    <implicitSpringDamper>1</implicitSpringDamper>
  </gazebo>
  <gazebo reference="r_knee">
    <implicitSpringDamper>1</implicitSpringDamper>
  </gazebo>
  <gazebo reference="r_ankle_pitch">
    <implicitSpringDamper>1</implicitSpringDamper>
  </gazebo>
  <gazebo reference="r_ankle_roll">
    <implicitSpringDamper>1</implicitSpringDamper>
  </gazebo>
  <gazebo>
    <plugin name="gzyarp::Imu" filename="gz-sim-yarp-imu-system">
      <yarpConfigurationFile>model://conf/gazebo_ergocub_inertial.ini</yarpConfigurationFile>
    </plugin>
  </gazebo>
  <gazebo>
    <plugin name="gzyarp::Imu" filename="gz-sim-yarp-imu-system">
      <yarpConfigurationFile>model://conf/gazebo_ergocub_realsense_inertial.ini</yarpConfigurationFile>
    </plugin>
  </gazebo>
  <gazebo>
    <plugin name="gzyarp::Laser" filename="gz-sim-yarp-laser-system">
      <yarpConfigurationFile>model://conf/sensors/gazebo_ergocub_lidar.ini</yarpConfigurationFile>
    </plugin>
  </gazebo>
  <gazebo>
    <plugin name="controlboard_head" filename="libgazebo_yarp_controlboard.so">
      <yarpConfigurationFile>model://conf/gazebo_ergocub_head.ini</yarpConfigurationFile>
    </plugin>
  </gazebo>
  <gazebo>
    <plugin name="gzyarp::ControlBoard" filename="gz-sim-yarp-controlboard-system">
      <yarpConfigurationFile>model://conf/gazebo_ergocub_head.ini</yarpConfigurationFile>
    </plugin>
  </gazebo>
  <gazebo reference="neck_pitch">
    <implicitSpringDamper>1</implicitSpringDamper>
  </gazebo>
  <gazebo reference="neck_roll">
    <implicitSpringDamper>1</implicitSpringDamper>
  </gazebo>
  <gazebo reference="neck_yaw">
    <implicitSpringDamper>1</implicitSpringDamper>
  </gazebo>
  <gazebo>
    <plugin name="controlboard_left_arm_no_hand" filename="libgazebo_yarp_controlboard.so">
      <yarpConfigurationFile>model://conf/gazebo_ergocub_left_arm.ini</yarpConfigurationFile>
      <initialConfiguration>-0.52 0.52 0 0.785 0 0 0.0</initialConfiguration>
    </plugin>
  </gazebo>
  <gazebo>
    <plugin name="gzyarp::ControlBoard" filename="gz-sim-yarp-controlboard-system">
      <yarpConfigurationFile>model://conf/gazebo_ergocub_left_arm.ini</yarpConfigurationFile>
      <initialConfiguration>-0.52 0.52 0 0.785 0 0 0.0</initialConfiguration>
    </plugin>
  </gazebo>
  <gazebo>
    <plugin name="controlboard_left_hand" filename="libgazebo_yarp_controlboard.so">
      <yarpConfigurationFile>model://conf/gazebo_ergocub_left_hand_mk5_1.ini</yarpConfigurationFile>
    </plugin>
  </gazebo>
  <gazebo>
    <plugin name="gzyarp::ControlBoard" filename="gz-sim-yarp-controlboard-system">
      <yarpConfigurationFile>model://conf/gazebo_ergocub_left_hand_mk5_1.ini</yarpConfigurationFile>
    </plugin>
  </gazebo>
  <gazebo reference="l_shoulder_pitch">
    <implicitSpringDamper>1</implicitSpringDamper>
  </gazebo>
  <gazebo reference="l_shoulder_roll">
    <implicitSpringDamper>1</implicitSpringDamper>
  </gazebo>
  <gazebo reference="l_shoulder_yaw">
    <implicitSpringDamper>1</implicitSpringDamper>
  </gazebo>
  <gazebo reference="l_elbow">
    <implicitSpringDamper>1</implicitSpringDamper>
  </gazebo>
  <gazebo reference="l_wrist_roll">
    <implicitSpringDamper>1</implicitSpringDamper>
  </gazebo>
  <gazebo reference="l_wrist_pitch">
    <implicitSpringDamper>1</implicitSpringDamper>
  </gazebo>
  <gazebo reference="l_wrist_yaw">
    <implicitSpringDamper>1</implicitSpringDamper>
  </gazebo>
  <gazebo>
    <plugin name="controlboard_right_arm_no_hand" filename="libgazebo_yarp_controlboard.so">
      <yarpConfigurationFile>model://conf/gazebo_ergocub_right_arm.ini</yarpConfigurationFile>
      <initialConfiguration>-0.52 0.52 0 0.785 0 0 0.0</initialConfiguration>
    </plugin>
  </gazebo>
  <gazebo>
    <plugin name="gzyarp::ControlBoard" filename="gz-sim-yarp-controlboard-system">
      <yarpConfigurationFile>model://conf/gazebo_ergocub_right_arm.ini</yarpConfigurationFile>
      <initialConfiguration>-0.52 0.52 0 0.785 0 0 0.0</initialConfiguration>
    </plugin>
  </gazebo>
  <gazebo>
    <plugin name="controlboard_right_hand" filename="libgazebo_yarp_controlboard.so">
      <yarpConfigurationFile>model://conf/gazebo_ergocub_right_hand_mk5_1.ini</yarpConfigurationFile>
    </plugin>
  </gazebo>
  <gazebo>
    <plugin name="gzyarp::ControlBoard" filename="gz-sim-yarp-controlboard-system">
      <yarpConfigurationFile>model://conf/gazebo_ergocub_right_hand_mk5_1.ini</yarpConfigurationFile>
    </plugin>
  </gazebo>
  <gazebo reference="r_shoulder_pitch">
    <implicitSpringDamper>1</implicitSpringDamper>
  </gazebo>
  <gazebo reference="r_shoulder_roll">
    <implicitSpringDamper>1</implicitSpringDamper>
  </gazebo>
  <gazebo reference="r_shoulder_yaw">
    <implicitSpringDamper>1</implicitSpringDamper>
  </gazebo>
  <gazebo reference="r_elbow">
    <implicitSpringDamper>1</implicitSpringDamper>
  </gazebo>
  <gazebo reference="r_wrist_roll">
    <implicitSpringDamper>1</implicitSpringDamper>
  </gazebo>
  <gazebo reference="r_wrist_pitch">
    <implicitSpringDamper>1</implicitSpringDamper>
  </gazebo>
  <gazebo reference="r_wrist_yaw">
    <implicitSpringDamper>1</implicitSpringDamper>
  </gazebo>
  <gazebo>
    <plugin name="robotinterface" filename="libgazebo_yarp_robotinterface.so">
      <yarpRobotInterfaceConfigurationFile>model://conf/ergocub.xml</yarpRobotInterfaceConfigurationFile>
    </plugin>
  </gazebo>
  <gazebo>
    <plugin name="gzyarp::RobotInterface" filename="gz-sim-yarp-robotinterface-system">
      <yarpRobotInterfaceConfigurationFile>model://conf/ergocub_gz_sim.xml</yarpRobotInterfaceConfigurationFile>
    </plugin>
  </gazebo>
  <gazebo>
    <plugin filename="gz-sim-forcetorque-system" name="gz::sim::systems::ForceTorque"/>
  </gazebo>
  <gazebo>
    <plugin filename="gz-sim-imu-system" name="gz::sim::systems::Imu"/>
  </gazebo>
  <gazebo>
    <pose>0.000000 0.000000 0.800000 0.000000 0.000000 0.000000</pose>
  </gazebo>
  <gazebo reference="l_arm_ft_sensor">
    <sensor name="l_arm_ft" type="force_torque">
      <always_on>1</always_on>
      <update_rate>100</update_rate>
      <force_torque>
        <frame>sensor</frame>
        <measure_direction>child_to_parent</measure_direction>
      </force_torque>
      <pose>-3.46945e-18 0 0 3.14159 1.94289e-16 -1.5708 </pose>
      <plugin name="left_arm_ft_plugin" filename="libgazebo_yarp_forcetorque.so">
        <yarpConfigurationFile>model://conf/FT/gazebo_ergocub_left_arm_ft.ini</yarpConfigurationFile>
      </plugin>
    </sensor>
  </gazebo>
  <sensor name="l_arm_ft" type="force_torque">
    <parent joint="l_arm_ft_sensor"/>
    <force_torque>
      <frame>sensor</frame>
      <measure_direction>child_to_parent</measure_direction>
    </force_torque>
    <origin rpy="3.14159 1.94289e-16 -1.5708 " xyz="-3.46945e-18 0 0"/>
  </sensor>
  <gazebo reference="l_foot_front_ft_sensor">
    <sensor name="l_foot_front_ft" type="force_torque">
      <always_on>1</always_on>
      <update_rate>100</update_rate>
      <force_torque>
        <frame>sensor</frame>
        <measure_direction>parent_to_child</measure_direction>
      </force_torque>
      <pose>0 0 0 1.25667e-16 2.20112e-17 -2.0944 </pose>
      <plugin name="left_foot_front_ft_plugin" filename="libgazebo_yarp_forcetorque.so">
        <yarpConfigurationFile>model://conf/FT/gazebo_ergocub_left_foot_front_ft.ini</yarpConfigurationFile>
      </plugin>
    </sensor>
  </gazebo>
  <sensor name="l_foot_front_ft" type="force_torque">
    <parent joint="l_foot_front_ft_sensor"/>
    <force_torque>
      <frame>sensor</frame>
      <measure_direction>parent_to_child</measure_direction>
    </force_torque>
    <origin rpy="1.25667e-16 2.20112e-17 -2.0944 " xyz="0 0 0"/>
  </sensor>
  <gazebo reference="l_foot_rear_ft_sensor">
    <sensor name="l_foot_rear_ft" type="force_torque">
      <always_on>1</always_on>
      <update_rate>100</update_rate>
      <force_torque>
        <frame>sensor</frame>
        <measure_direction>parent_to_child</measure_direction>
      </force_torque>
      <pose>0 0 0 1.25667e-16 2.20112e-17 -2.0944 </pose>
      <plugin name="left_foot_rear_ft_plugin" filename="libgazebo_yarp_forcetorque.so">
        <yarpConfigurationFile>model://conf/FT/gazebo_ergocub_left_foot_rear_ft.ini</yarpConfigurationFile>
      </plugin>
    </sensor>
  </gazebo>
  <sensor name="l_foot_rear_ft" type="force_torque">
    <parent joint="l_foot_rear_ft_sensor"/>
    <force_torque>
      <frame>sensor</frame>
      <measure_direction>parent_to_child</measure_direction>
    </force_torque>
    <origin rpy="1.25667e-16 2.20112e-17 -2.0944 " xyz="0 0 0"/>
  </sensor>
  <gazebo reference="l_leg_ft_sensor">
    <sensor name="l_leg_ft" type="force_torque">
      <always_on>1</always_on>
      <update_rate>100</update_rate>
      <force_torque>
        <frame>sensor</frame>
        <measure_direction>child_to_parent</measure_direction>
      </force_torque>
      <pose>5.20417e-18 0 0 3.14159 -2.02132e-15 2.61799 </pose>
      <plugin name="left_leg_ft_plugin" filename="libgazebo_yarp_forcetorque.so">
        <yarpConfigurationFile>model://conf/FT/gazebo_ergocub_left_leg_ft.ini</yarpConfigurationFile>
      </plugin>
    </sensor>
  </gazebo>
  <sensor name="l_leg_ft" type="force_torque">
    <parent joint="l_leg_ft_sensor"/>
    <force_torque>
      <frame>sensor</frame>
      <measure_direction>child_to_parent</measure_direction>
    </force_torque>
    <origin rpy="3.14159 -2.02132e-15 2.61799 " xyz="5.20417e-18 0 0"/>
  </sensor>
  <gazebo reference="r_arm_ft_sensor">
    <sensor name="r_arm_ft" type="force_torque">
      <always_on>1</always_on>
      <update_rate>100</update_rate>
      <force_torque>
        <frame>sensor</frame>
        <measure_direction>child_to_parent</measure_direction>
      </force_torque>
      <pose>0 0 0 -3.14159 -2.77556e-17 1.5708 </pose>
      <plugin name="right_arm_ft_plugin" filename="libgazebo_yarp_forcetorque.so">
        <yarpConfigurationFile>model://conf/FT/gazebo_ergocub_right_arm_ft.ini</yarpConfigurationFile>
      </plugin>
    </sensor>
  </gazebo>
  <sensor name="r_arm_ft" type="force_torque">
    <parent joint="r_arm_ft_sensor"/>
    <force_torque>
      <frame>sensor</frame>
      <measure_direction>child_to_parent</measure_direction>
    </force_torque>
    <origin rpy="-3.14159 -2.77556e-17 1.5708 " xyz="0 0 0"/>
  </sensor>
  <gazebo reference="r_foot_front_ft_sensor">
    <sensor name="r_foot_front_ft" type="force_torque">
      <always_on>1</always_on>
      <update_rate>100</update_rate>
      <force_torque>
        <frame>sensor</frame>
        <measure_direction>parent_to_child</measure_direction>
      </force_torque>
      <pose>0 1.38778e-17 1.11022e-16 -1.0903e-16 -1.44222e-16 -2.0944 </pose>
      <plugin name="right_foot_front_ft_plugin" filename="libgazebo_yarp_forcetorque.so">
        <yarpConfigurationFile>model://conf/FT/gazebo_ergocub_right_foot_front_ft.ini</yarpConfigurationFile>
      </plugin>
    </sensor>
  </gazebo>
  <sensor name="r_foot_front_ft" type="force_torque">
    <parent joint="r_foot_front_ft_sensor"/>
    <force_torque>
      <frame>sensor</frame>
      <measure_direction>parent_to_child</measure_direction>
    </force_torque>
    <origin rpy="-1.0903e-16 -1.44222e-16 -2.0944 " xyz="0 1.38778e-17 1.11022e-16"/>
  </sensor>
  <gazebo reference="r_foot_rear_ft_sensor">
    <sensor name="r_foot_rear_ft" type="force_torque">
      <always_on>1</always_on>
      <update_rate>100</update_rate>
      <force_torque>
        <frame>sensor</frame>
        <measure_direction>parent_to_child</measure_direction>
      </force_torque>
      <pose>3.46945e-18 0 0 -1.0903e-16 -1.44222e-16 -2.0944 </pose>
      <plugin name="right_foot_rear_ft_plugin" filename="libgazebo_yarp_forcetorque.so">
        <yarpConfigurationFile>model://conf/FT/gazebo_ergocub_right_foot_rear_ft.ini</yarpConfigurationFile>
      </plugin>
    </sensor>
  </gazebo>
  <sensor name="r_foot_rear_ft" type="force_torque">
    <parent joint="r_foot_rear_ft_sensor"/>
    <force_torque>
      <frame>sensor</frame>
      <measure_direction>parent_to_child</measure_direction>
    </force_torque>
    <origin rpy="-1.0903e-16 -1.44222e-16 -2.0944 " xyz="3.46945e-18 0 0"/>
  </sensor>
  <gazebo reference="r_leg_ft_sensor">
    <sensor name="r_leg_ft" type="force_torque">
      <always_on>1</always_on>
      <update_rate>100</update_rate>
      <force_torque>
        <frame>sensor</frame>
        <measure_direction>child_to_parent</measure_direction>
      </force_torque>
      <pose>1.21431e-17 2.77556e-17 5.55112e-17 3.14159 2.98881e-16 -2.61799 </pose>
      <plugin name="right_leg_ft_plugin" filename="libgazebo_yarp_forcetorque.so">
        <yarpConfigurationFile>model://conf/FT/gazebo_ergocub_right_leg_ft.ini</yarpConfigurationFile>
      </plugin>
    </sensor>
  </gazebo>
  <sensor name="r_leg_ft" type="force_torque">
    <parent joint="r_leg_ft_sensor"/>
    <force_torque>
      <frame>sensor</frame>
      <measure_direction>child_to_parent</measure_direction>
    </force_torque>
    <origin rpy="3.14159 2.98881e-16 -2.61799 " xyz="1.21431e-17 2.77556e-17 5.55112e-17"/>
  </sensor>
  <gazebo reference="head">
    <sensor name="head_imu_0" type="imu">
      <always_on>1</always_on>
      <update_rate>100.000000</update_rate>
      <pose>-0.0043 -0.0055 0.0382345 -3.14159 -9.68848e-15 1.5708 </pose>
      <plugin name="ergocub_yarp_gazebo_plugin_IMU" filename="libgazebo_yarp_imu.so">
        <yarpConfigurationFile>model://conf/gazebo_ergocub_inertial.ini</yarpConfigurationFile>
      </plugin>
    </sensor>
  </gazebo>
  <sensor name="head_imu_0" type="accelerometer">
    <parent link="head"/>
    <origin rpy="-3.14159 -9.68848e-15 1.5708 " xyz="-0.0043 -0.0055 0.0382345"/>
  </sensor>
  <gazebo reference="realsense">
    <sensor name="realsense_head_depth" type="depth">
      <always_on>1</always_on>
      <update_rate>30.000000</update_rate>
      <pose>0.00751548 -0.0115 1.73521e-08 -1.5708 3.75968e-16 -1.5708 </pose>
      <camera name="intel_realsense_depth_camera">
        <pose>0 0 0 -1.57079 -1.57079 3.14159</pose>
        <horizontal_fov>1.2217</horizontal_fov>
        <distortion>
          <k1>0</k1>
          <k2>0</k2>
          <k3>0</k3>
          <p1>0</p1>
          <p2>0</p2>
          <center>319.5 239.5</center>
        </distortion>
        <image>
          <width>640</width>
          <height>480</height>
          <format>R8G8B8</format>
        </image>
        <clip>
          <near>0.175</near>
          <far>3000</far>
        </clip>
      </camera>
      <visualize>false</visualize>
      <plugin name="ergocub_yarp_gazebo_plugin_depthCamera" filename="libgazebo_yarp_depthCamera.so">
        <yarpConfigurationFile>model://conf/sensors/gazebo_ergocub_rgbd_camera.ini</yarpConfigurationFile>
      </plugin>
    </sensor>
  </gazebo>
  <sensor name="realsense_head_depth" type="depth">
    <parent link="realsense"/>
    <origin rpy="-1.5708 3.75968e-16 -1.5708 " xyz="0.00751548 -0.0115 1.73521e-08"/>
  </sensor>
  <gazebo reference="realsense">
    <sensor name="realsense_head_rgb" type="camera">
      <always_on>1</always_on>
      <update_rate>30.000000</update_rate>
      <pose>0.00751548 -0.0115 1.73521e-08 -1.5708 3.75968e-16 -1.5708 </pose>
      <camera name="intel_realsense_rgb_camera">
        <pose>0 0 0 -1.57079 -1.57079 3.14159</pose>
        <horizontal_fov>1.2217</horizontal_fov>
        <distortion>
          <k1>0</k1>
          <k2>0</k2>
          <k3>0</k3>
          <p1>0</p1>
          <p2>0</p2>
          <center>319.5 239.5</center>
        </distortion>
        <image>
          <width>640</width>
          <height>480</height>
          <format>R8G8B8</format>
        </image>
        <clip>
          <near>0.02</near>
          <far>3000</far>
        </clip>
      </camera>
      <visualize>false</visualize>
      <plugin name="ergocub_yarp_gazebo_plugin_camera" filename="libgazebo_yarp_camera.so">
        <yarpConfigurationFile>model://conf/gazebo_ergocub_rgb_camera.ini</yarpConfigurationFile>
      </plugin>
    </sensor>
  </gazebo>
  <sensor name="realsense_head_rgb" type="camera">
    <parent link="realsense"/>
    <origin rpy="-1.5708 3.75968e-16 -1.5708 " xyz="0.00751548 -0.0115 1.73521e-08"/>
  </sensor>
  <gazebo reference="realsense">
    <sensor name="realsense_imu_0" type="imu">
      <always_on>1</always_on>
      <update_rate>100.000000</update_rate>
      <pose>0.00751548 0.01 1.73521e-08 -1.5708 3.75968e-16 -1.5708 </pose>
      <plugin name="ergocub_yarp_gazebo_plugin_IMU" filename="libgazebo_yarp_imu.so">
        <yarpConfigurationFile>model://conf/gazebo_ergocub_realsense_inertial.ini</yarpConfigurationFile>
      </plugin>
    </sensor>
  </gazebo>
  <sensor name="realsense_imu_0" type="accelerometer">
    <parent link="realsense"/>
    <origin rpy="-1.5708 3.75968e-16 -1.5708 " xyz="0.00751548 0.01 1.73521e-08"/>
  </sensor>
  <gazebo reference="head">
    <sensor name="lasersensor_head" type="ray">
      <always_on>1</always_on>
      <update_rate>100.000000</update_rate>
      <pose>5e-05 -1.93855e-15 0.134802 9.72195e-15 5.33157e-15 3.16761e-15 </pose>
      <always_on>1</always_on>
      <visualize>true</visualize>
      <update_rate>40</update_rate>
      <ray>
        <scan>
          <horizontal>
            <samples>360</samples>
            <resolution>2</resolution>
            <min_angle>0</min_angle>
            <max_angle>6.28</max_angle>
          </horizontal>
        </scan>
        <range>
          <min>0.04</min>
          <max>5</max>
          <resolution>0.01</resolution>
        </range>
        <noise>
          <type>gaussian</type>
          <mean>0</mean>
          <stddev>0.005</stddev>
        </noise>
      </ray>
      <plugin name="ergocub_yarp_gazebo_plugin_laser" filename="libgazebo_yarp_lasersensor.so">
        <yarpConfigurationFile>model://conf/sensors/gazebo_ergocub_lidar.ini</yarpConfigurationFile>
      </plugin>
    </sensor>
  </gazebo>
  <sensor name="lasersensor_head" type="ray">
    <parent link="head"/>
    <origin rpy="9.72195e-15 5.33157e-15 3.16761e-15 " xyz="5e-05 -1.93855e-15 0.134802"/>
  </sensor>
  <gazebo reference="l_foot_front">
    <sensor name="l_foot_front_ft_imu" type="imu">
      <always_on>1</always_on>
      <update_rate>100.000000</update_rate>
      <pose>0 0 0 1.25667e-16 2.20112e-17 -2.0944 </pose>
      <plugin name="ergocub_yarp_gazebo_plugin_IMU" filename="libgazebo_yarp_imu.so">
        <yarpConfigurationFile>model://conf/gazebo_ergocub_l_foot_front_ft_sensor_inertial.ini</yarpConfigurationFile>
      </plugin>
    </sensor>
  </gazebo>
  <sensor name="l_foot_front_ft_imu" type="accelerometer">
    <parent link="l_foot_front"/>
    <origin rpy="1.25667e-16 2.20112e-17 -2.0944 " xyz="0 0 0"/>
  </sensor>
  <gazebo reference="l_foot_rear">
    <sensor name="l_foot_rear_ft_imu" type="imu">
      <always_on>1</always_on>
      <update_rate>100.000000</update_rate>
      <pose>0 0 0 1.25667e-16 2.20112e-17 -2.0944 </pose>
      <plugin name="ergocub_yarp_gazebo_plugin_IMU" filename="libgazebo_yarp_imu.so">
        <yarpConfigurationFile>model://conf/gazebo_ergocub_l_foot_rear_ft_sensor_inertial.ini</yarpConfigurationFile>
      </plugin>
    </sensor>
  </gazebo>
  <sensor name="l_foot_rear_ft_imu" type="accelerometer">
    <parent link="l_foot_rear"/>
    <origin rpy="1.25667e-16 2.20112e-17 -2.0944 " xyz="0 0 0"/>
  </sensor>
  <gazebo reference="r_foot_front">
    <sensor name="r_foot_front_ft_imu" type="imu">
      <always_on>1</always_on>
      <update_rate>100.000000</update_rate>
      <pose>0 1.38778e-17 1.11022e-16 -1.0903e-16 -1.44222e-16 -2.0944 </pose>
      <plugin name="ergocub_yarp_gazebo_plugin_IMU" filename="libgazebo_yarp_imu.so">
        <yarpConfigurationFile>model://conf/gazebo_ergocub_r_foot_front_ft_sensor_inertial.ini</yarpConfigurationFile>
      </plugin>
    </sensor>
  </gazebo>
  <sensor name="r_foot_front_ft_imu" type="accelerometer">
    <parent link="r_foot_front"/>
    <origin rpy="-1.0903e-16 -1.44222e-16 -2.0944 " xyz="0 1.38778e-17 1.11022e-16"/>
  </sensor>
  <gazebo reference="r_foot_rear">
    <sensor name="r_foot_rear_ft_imu" type="imu">
      <always_on>1</always_on>
      <update_rate>100.000000</update_rate>
      <pose>3.46945e-18 0 0 -1.0903e-16 -1.44222e-16 -2.0944 </pose>
      <plugin name="ergocub_yarp_gazebo_plugin_IMU" filename="libgazebo_yarp_imu.so">
        <yarpConfigurationFile>model://conf/gazebo_ergocub_r_foot_rear_ft_sensor_inertial.ini</yarpConfigurationFile>
      </plugin>
    </sensor>
  </gazebo>
  <sensor name="r_foot_rear_ft_imu" type="accelerometer">
    <parent link="r_foot_rear"/>
    <origin rpy="-1.0903e-16 -1.44222e-16 -2.0944 " xyz="3.46945e-18 0 0"/>
  </sensor>
  <gazebo reference="l_shoulder_3">
    <sensor name="l_arm_ft_imu" type="imu">
      <always_on>1</always_on>
      <update_rate>100.000000</update_rate>
      <pose>-3.46945e-18 0 0 3.14159 1.94289e-16 -1.5708 </pose>
      <plugin name="ergocub_yarp_gazebo_plugin_IMU" filename="libgazebo_yarp_imu.so">
        <yarpConfigurationFile>model://conf/gazebo_ergocub_l_arm_ft_sensor_inertial.ini</yarpConfigurationFile>
      </plugin>
    </sensor>
  </gazebo>
  <sensor name="l_arm_ft_imu" type="accelerometer">
    <parent link="l_shoulder_3"/>
    <origin rpy="3.14159 1.94289e-16 -1.5708 " xyz="-3.46945e-18 0 0"/>
  </sensor>
  <gazebo reference="r_shoulder_3">
    <sensor name="r_arm_ft_imu" type="imu">
      <always_on>1</always_on>
      <update_rate>100.000000</update_rate>
      <pose>0 0 0 -3.14159 -2.77556e-17 1.5708 </pose>
      <plugin name="ergocub_yarp_gazebo_plugin_IMU" filename="libgazebo_yarp_imu.so">
        <yarpConfigurationFile>model://conf/gazebo_ergocub_r_arm_ft_sensor_inertial.ini</yarpConfigurationFile>
      </plugin>
    </sensor>
  </gazebo>
  <sensor name="r_arm_ft_imu" type="accelerometer">
    <parent link="r_shoulder_3"/>
    <origin rpy="-3.14159 -2.77556e-17 1.5708 " xyz="0 0 0"/>
  </sensor>
  <gazebo reference="l_hip_3">
    <sensor name="l_leg_ft_imu" type="imu">
      <always_on>1</always_on>
      <update_rate>100.000000</update_rate>
      <pose>5.20417e-18 0 0 3.14159 -2.02132e-15 2.61799 </pose>
      <plugin name="ergocub_yarp_gazebo_plugin_IMU" filename="libgazebo_yarp_imu.so">
        <yarpConfigurationFile>model://conf/gazebo_ergocub_l_leg_ft_sensor_inertial.ini</yarpConfigurationFile>
      </plugin>
    </sensor>
  </gazebo>
  <sensor name="l_leg_ft_imu" type="accelerometer">
    <parent link="l_hip_3"/>
    <origin rpy="3.14159 -2.02132e-15 2.61799 " xyz="5.20417e-18 0 0"/>
  </sensor>
  <gazebo reference="r_hip_3">
    <sensor name="r_leg_ft_imu" type="imu">
      <always_on>1</always_on>
      <update_rate>100.000000</update_rate>
      <pose>1.21431e-17 2.77556e-17 5.55112e-17 3.14159 2.98881e-16 -2.61799 </pose>
      <plugin name="ergocub_yarp_gazebo_plugin_IMU" filename="libgazebo_yarp_imu.so">
        <yarpConfigurationFile>model://conf/gazebo_ergocub_r_leg_ft_sensor_inertial.ini</yarpConfigurationFile>
      </plugin>
    </sensor>
  </gazebo>
  <sensor name="r_leg_ft_imu" type="accelerometer">
    <parent link="r_hip_3"/>
    <origin rpy="3.14159 2.98881e-16 -2.61799 " xyz="1.21431e-17 2.77556e-17 5.55112e-17"/>
  </sensor>
</robot>
